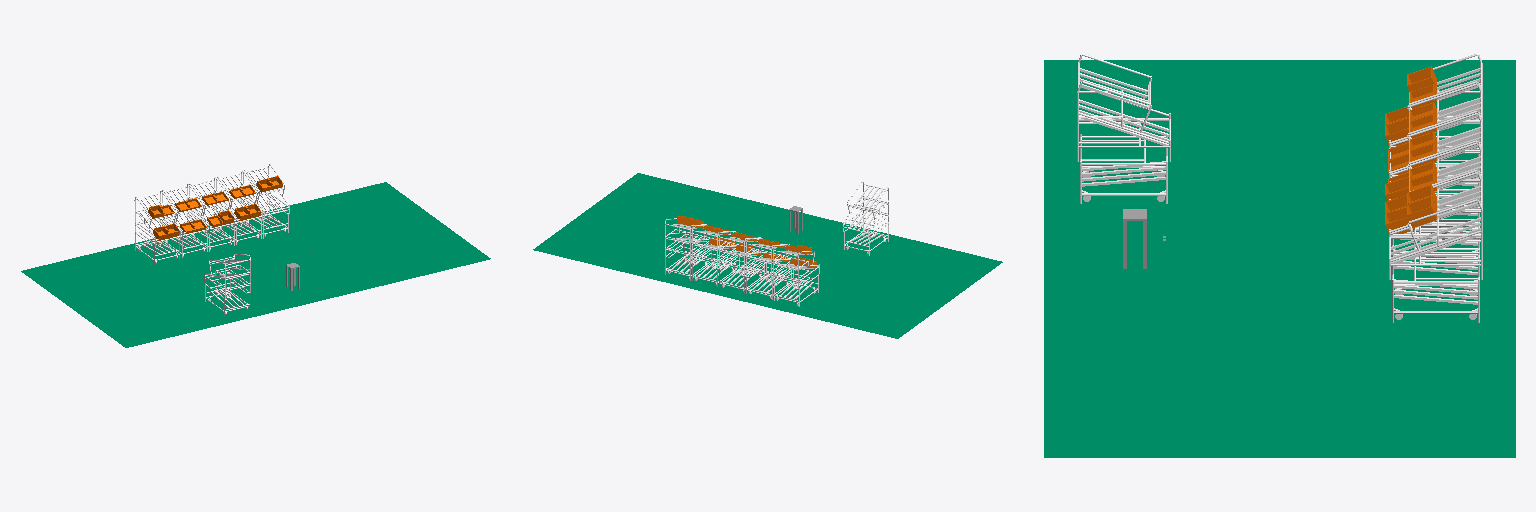
--- Render facts (derived) ---
3 views of the same robot in one strip: view 1: azimuth 30°, elevation 25°; view 2: azimuth 150°, elevation 25°; view 3: azimuth 270°, elevation 25° (orthographic).
Robot: showcase — 282 links, 281 joints (12 revolute, 269 fixed); root link world; default pose: all joints at 0.
Links seen in each view (by area): view 1: demo_floor_link, rack_t5, rack_t4, rack_t0; view 2: demo_floor_link, rack_t5, rack_t0; view 3: demo_floor_link, rack_t5, rack_t4, rack_b5, rack_b4, rack_t3, rack_t1, rack_t2, rack_t0, rack_b3.
Link boxes in pixels (x1,y1,x2,y2): demo_floor_link: (21, 182, 490, 347); rack_t5: (204, 254, 250, 297); rack_t4: (243, 164, 289, 219); rack_t0: (134, 190, 180, 246); demo_floor_link: (533, 173, 1002, 338); rack_t5: (843, 181, 888, 237); rack_t0: (773, 244, 819, 288); demo_floor_link: (1044, 60, 1515, 457); rack_t5: (1077, 54, 1170, 161); rack_t4: (1389, 172, 1482, 279); rack_b5: (1080, 134, 1167, 203); rack_b4: (1392, 252, 1479, 322); rack_t3: (1389, 142, 1482, 235); rack_t1: (1389, 83, 1482, 176); rack_t2: (1389, 113, 1482, 200); rack_t0: (1389, 54, 1482, 147); rack_b3: (1392, 222, 1479, 289).
Bounding box of the posed robot: 12 × 6 × 1.73 m (x, y, z).
12 mesh visuals loaded from 15 distinct referenced files (2 binary STL); not drawn: 17 (reference not matched to a file when rendering).

The robot description file, URDF, robot "showcase":
<?xml version="1.0" ?>
<!-- =================================================================================== -->
<!-- |    This document was autogenerated by xacro from [local-path]/catkin_ws/src/nedo3_demo/nedo3_description/urdf/nedo3_demo.urdf.xacro | -->
<!-- |    EDITING THIS FILE BY HAND IS NOT RECOMMENDED                                 | -->
<!-- =================================================================================== -->
<robot name="showcase">
    <!-- Root frame -->
    <link name="world" />
    <!-- Main workspace -->
    <link name="ground" />
    <joint name="world_ground_joint" type="fixed">
        <parent link="world" />
        <child link="ground" />
        <origin rpy="0 0 0" xyz="-4 0 0" />
    </joint>
    <joint name="demo_floor_joint" type="fixed">
        <parent link="world" />
        <child link="demo_floor_link" />
        <origin rpy="0 0 0" xyz="0 0 -0.001" />
    </joint>
    <link name="demo_floor_link">
        <visual>
            <origin rpy="0 0 0" xyz="0 0 0.0" />
            <geometry>
                <box size="12.0 6.0 0" />
            </geometry>
            <material name="demo_floor">
                <texture filename="package://nedo3_description/media/materials/textures/demo_floor.png" />
            </material>
        </visual>
        <collision>
            <origin rpy="0 0 0" xyz="0 0 0.0" />
            <geometry>
                <box size="12.0 6.0 0" />
            </geometry>
        </collision>
        <!-- <inertial> -->
        <!-- 	<mass value="1.0"/> -->
        <!-- 	<inertia ixx="1.0" ixy="0.0" ixz="0.0" iyy="1.0" iyz="0.0" izz="1.0"/> -->
        <!-- </inertial> -->
        <inertial>
            <mass value="0.1" />
            <origin xyz="0 0 0" rpy="0 0 0" />
            <inertia ixx="0.03" iyy="0.03" izz="0.03" ixy="0.0" ixz="0.0" iyz="0.0" />
        </inertial>
    </link>
    <!-- For Gazebo, material of AR marker is defined in -->
    <!--      aist_gazebo/media/material. You also need to export -->
    <!--      gazebo_media_path in package.xml. -->
    <!-- <gazebo reference="floor_link"> -->
    <!--   <material>Showcase/floor</material> -->
    <!-- </gazebo> -->
    <link name="rack_b0">
        <visual>
            <origin rpy="0 0 0" xyz="0 0.050 0" />
            <geometry>
                <mesh filename="package://nedo3_description/meshes/visual/rack_b.stl" scale="0.001 0.001 0.001" />
            </geometry>
            <material name="white">
                <color rgba="1 1 1 1" />
            </material>
        </visual>
        <collision>
            <origin rpy="0 0 0" xyz="0 0.050 0" />
            <geometry>
                <mesh filename="package://nedo3_description/meshes/collision/rack_b.stl" scale="0.001 0.001 0.001" />
            </geometry>
        </collision>
        <!-- Required for Gazebo -->
        <inertial>
            <mass value="20.0" />
            <inertia ixx="0.0" ixy="0.0" ixz="0.0" iyy="0.0" iyz="0.0" izz="0.0" />
            <origin xyz="0 0 0" rpy="0 0 0" />
        </inertial>
    </link>
    <joint name="rack_b0_joint" type="fixed">
        <parent link="ground" />
        <child link="rack_b0" />
        <origin rpy="0 0 0" xyz="1.5 1.435 0" />
    </joint>
    <link name="rack_b0_lower" />
    <joint name="rack_b0_lower_joint" type="fixed">
        <parent link="rack_b0" />
        <child link="rack_b0_lower" />
        <origin rpy="-0.08726646259971647 0 0" xyz="0.020 0.020 0.294" />
    </joint>
    <gazebo reference="rack_b0">
        <material>Gazebo/White</material>
        <selfCollide>True</selfCollide>
        <plugin name="gazebo_ros_control" filename="libgazebo_ros_control.so">
            <robotNamespace>/</robotNamespace>
        </plugin>
    </gazebo>
    <link name="rack_t0">
        <visual>
            <origin rpy="0 0 0" xyz="0 0 0" />
            <geometry>
                <mesh filename="package://nedo3_description/meshes/visual/rack_t.stl" scale="0.001 0.001 0.001" />
            </geometry>
            <material name="white">
                <color rgba="1 1 1 1" />
            </material>
        </visual>
        <collision>
            <origin rpy="0 0 0" xyz="0 0 0" />
            <geometry>
                <mesh filename="package://nedo3_description/meshes/collision/rack_t.stl" scale="0.001 0.001 0.001" />
            </geometry>
        </collision>
        <!-- Required for Gazebo -->
        <inertial>
            <mass value="20.0" />
            <inertia ixx="0.0" ixy="0.0" ixz="0.0" iyy="0.0" iyz="0.0" izz="0.0" />
            <origin xyz="0 0 0" rpy="0 0 0" />
        </inertial>
    </link>
    <joint name="rack_t0_joint" type="fixed">
        <parent link="rack_b0" />
        <child link="rack_t0" />
        <origin rpy="0 0 0" xyz="0 -0.05 0.595" />
    </joint>
    <link name="rack_t0_lower" />
    <joint name="rack_t0_lower_joint" type="fixed">
        <parent link="rack_t0" />
        <child link="rack_t0_lower" />
        <origin rpy="0.3490658503988659 0 0" xyz="0.020 0.020 0.150" />
    </joint>
    <link name="rack_t0_upper" />
    <joint name="rack_t0_upper_joint" type="fixed">
        <parent link="rack_t0" />
        <child link="rack_t0_upper" />
        <origin rpy="0.3490658503988659 0 0" xyz="0.020 0.300 0.700" />
    </joint>
    <gazebo reference="rack_t0">
        <material>Gazebo/White</material>
        <selfCollide>True</selfCollide>
    </gazebo>
    <link name="rack_b1">
        <visual>
            <origin rpy="0 0 0" xyz="0 0.050 0" />
            <geometry>
                <mesh filename="package://nedo3_description/meshes/visual/rack_b.stl" scale="0.001 0.001 0.001" />
            </geometry>
            <material name="white">
                <color rgba="1 1 1 1" />
            </material>
        </visual>
        <collision>
            <origin rpy="0 0 0" xyz="0 0.050 0" />
            <geometry>
                <mesh filename="package://nedo3_description/meshes/collision/rack_b.stl" scale="0.001 0.001 0.001" />
            </geometry>
        </collision>
        <!-- Required for Gazebo -->
        <inertial>
            <mass value="20.0" />
            <inertia ixx="0.0" ixy="0.0" ixz="0.0" iyy="0.0" iyz="0.0" izz="0.0" />
            <origin xyz="0 0 0" rpy="0 0 0" />
        </inertial>
    </link>
    <joint name="rack_b1_joint" type="fixed">
        <parent link="rack_b0" />
        <child link="rack_b1" />
        <origin rpy="0 0 0" xyz="0.89 0 0" />
    </joint>
    <link name="rack_b1_lower" />
    <joint name="rack_b1_lower_joint" type="fixed">
        <parent link="rack_b1" />
        <child link="rack_b1_lower" />
        <origin rpy="-0.08726646259971647 0 0" xyz="0.020 0.020 0.294" />
    </joint>
    <gazebo reference="rack_b1">
        <material>Gazebo/White</material>
        <selfCollide>True</selfCollide>
    </gazebo>
    <link name="rack_t1">
        <visual>
            <origin rpy="0 0 0" xyz="0 0 0" />
            <geometry>
                <mesh filename="package://nedo3_description/meshes/visual/rack_t.stl" scale="0.001 0.001 0.001" />
            </geometry>
            <material name="white">
                <color rgba="1 1 1 1" />
            </material>
        </visual>
        <collision>
            <origin rpy="0 0 0" xyz="0 0 0" />
            <geometry>
                <mesh filename="package://nedo3_description/meshes/collision/rack_t.stl" scale="0.001 0.001 0.001" />
            </geometry>
        </collision>
        <!-- Required for Gazebo -->
        <inertial>
            <mass value="20.0" />
            <inertia ixx="0.0" ixy="0.0" ixz="0.0" iyy="0.0" iyz="0.0" izz="0.0" />
            <origin xyz="0 0 0" rpy="0 0 0" />
        </inertial>
    </link>
    <joint name="rack_t1_joint" type="fixed">
        <parent link="rack_b1" />
        <child link="rack_t1" />
        <origin rpy="0 0 0" xyz="0 -0.05 0.595" />
    </joint>
    <link name="rack_t1_lower" />
    <joint name="rack_t1_lower_joint" type="fixed">
        <parent link="rack_t1" />
        <child link="rack_t1_lower" />
        <origin rpy="0.3490658503988659 0 0" xyz="0.020 0.020 0.150" />
    </joint>
    <link name="rack_t1_upper" />
    <joint name="rack_t1_upper_joint" type="fixed">
        <parent link="rack_t1" />
        <child link="rack_t1_upper" />
        <origin rpy="0.3490658503988659 0 0" xyz="0.020 0.300 0.700" />
    </joint>
    <gazebo reference="rack_t1">
        <material>Gazebo/White</material>
        <selfCollide>True</selfCollide>
    </gazebo>
    <link name="rack_b2">
        <visual>
            <origin rpy="0 0 0" xyz="0 0.050 0" />
            <geometry>
                <mesh filename="package://nedo3_description/meshes/visual/rack_b.stl" scale="0.001 0.001 0.001" />
            </geometry>
            <material name="white">
                <color rgba="1 1 1 1" />
            </material>
        </visual>
        <collision>
            <origin rpy="0 0 0" xyz="0 0.050 0" />
            <geometry>
                <mesh filename="package://nedo3_description/meshes/collision/rack_b.stl" scale="0.001 0.001 0.001" />
            </geometry>
        </collision>
        <!-- Required for Gazebo -->
        <inertial>
            <mass value="20.0" />
            <inertia ixx="0.0" ixy="0.0" ixz="0.0" iyy="0.0" iyz="0.0" izz="0.0" />
            <origin xyz="0 0 0" rpy="0 0 0" />
        </inertial>
    </link>
    <joint name="rack_b2_joint" type="fixed">
        <parent link="rack_b1" />
        <child link="rack_b2" />
        <origin rpy="0 0 0" xyz="0.89 0 0" />
    </joint>
    <link name="rack_b2_lower" />
    <joint name="rack_b2_lower_joint" type="fixed">
        <parent link="rack_b2" />
        <child link="rack_b2_lower" />
        <origin rpy="-0.08726646259971647 0 0" xyz="0.020 0.020 0.294" />
    </joint>
    <gazebo reference="rack_b2">
        <material>Gazebo/White</material>
        <selfCollide>True</selfCollide>
    </gazebo>
    <link name="rack_t2">
        <visual>
            <origin rpy="0 0 0" xyz="0 0 0" />
            <geometry>
                <mesh filename="package://nedo3_description/meshes/visual/rack_t.stl" scale="0.001 0.001 0.001" />
            </geometry>
            <material name="white">
                <color rgba="1 1 1 1" />
            </material>
        </visual>
        <collision>
            <origin rpy="0 0 0" xyz="0 0 0" />
            <geometry>
                <mesh filename="package://nedo3_description/meshes/collision/rack_t.stl" scale="0.001 0.001 0.001" />
            </geometry>
        </collision>
        <!-- Required for Gazebo -->
        <inertial>
            <mass value="20.0" />
            <inertia ixx="0.0" ixy="0.0" ixz="0.0" iyy="0.0" iyz="0.0" izz="0.0" />
            <origin xyz="0 0 0" rpy="0 0 0" />
        </inertial>
    </link>
    <joint name="rack_t2_joint" type="fixed">
        <parent link="rack_b2" />
        <child link="rack_t2" />
        <origin rpy="0 0 0" xyz="0 -0.05 0.595" />
    </joint>
    <link name="rack_t2_lower" />
    <joint name="rack_t2_lower_joint" type="fixed">
        <parent link="rack_t2" />
        <child link="rack_t2_lower" />
        <origin rpy="0.3490658503988659 0 0" xyz="0.020 0.020 0.150" />
    </joint>
    <link name="rack_t2_upper" />
    <joint name="rack_t2_upper_joint" type="fixed">
        <parent link="rack_t2" />
        <child link="rack_t2_upper" />
        <origin rpy="0.3490658503988659 0 0" xyz="0.020 0.300 0.700" />
    </joint>
    <gazebo reference="rack_t2">
        <material>Gazebo/White</material>
        <selfCollide>True</selfCollide>
    </gazebo>
    <link name="rack_b3">
        <visual>
            <origin rpy="0 0 0" xyz="0 0.050 0" />
            <geometry>
                <mesh filename="package://nedo3_description/meshes/visual/rack_b.stl" scale="0.001 0.001 0.001" />
            </geometry>
            <material name="white">
                <color rgba="1 1 1 1" />
            </material>
        </visual>
        <collision>
            <origin rpy="0 0 0" xyz="0 0.050 0" />
            <geometry>
                <mesh filename="package://nedo3_description/meshes/collision/rack_b.stl" scale="0.001 0.001 0.001" />
            </geometry>
        </collision>
        <!-- Required for Gazebo -->
        <inertial>
            <mass value="20.0" />
            <inertia ixx="0.0" ixy="0.0" ixz="0.0" iyy="0.0" iyz="0.0" izz="0.0" />
            <origin xyz="0 0 0" rpy="0 0 0" />
        </inertial>
    </link>
    <joint name="rack_b3_joint" type="fixed">
        <parent link="rack_b2" />
        <child link="rack_b3" />
        <origin rpy="0 0 0" xyz="0.89 0 0" />
    </joint>
    <link name="rack_b3_lower" />
    <joint name="rack_b3_lower_joint" type="fixed">
        <parent link="rack_b3" />
        <child link="rack_b3_lower" />
        <origin rpy="-0.08726646259971647 0 0" xyz="0.020 0.020 0.294" />
    </joint>
    <gazebo reference="rack_b3">
        <material>Gazebo/White</material>
        <selfCollide>True</selfCollide>
    </gazebo>
    <link name="rack_t3">
        <visual>
            <origin rpy="0 0 0" xyz="0 0 0" />
            <geometry>
                <mesh filename="package://nedo3_description/meshes/visual/rack_t.stl" scale="0.001 0.001 0.001" />
            </geometry>
            <material name="white">
                <color rgba="1 1 1 1" />
            </material>
        </visual>
        <collision>
            <origin rpy="0 0 0" xyz="0 0 0" />
            <geometry>
                <mesh filename="package://nedo3_description/meshes/collision/rack_t.stl" scale="0.001 0.001 0.001" />
            </geometry>
        </collision>
        <!-- Required for Gazebo -->
        <inertial>
            <mass value="20.0" />
            <inertia ixx="0.0" ixy="0.0" ixz="0.0" iyy="0.0" iyz="0.0" izz="0.0" />
            <origin xyz="0 0 0" rpy="0 0 0" />
        </inertial>
    </link>
    <joint name="rack_t3_joint" type="fixed">
        <parent link="rack_b3" />
        <child link="rack_t3" />
        <origin rpy="0 0 0" xyz="0 -0.05 0.595" />
    </joint>
    <link name="rack_t3_lower" />
    <joint name="rack_t3_lower_joint" type="fixed">
        <parent link="rack_t3" />
        <child link="rack_t3_lower" />
        <origin rpy="0.3490658503988659 0 0" xyz="0.020 0.020 0.150" />
    </joint>
    <link name="rack_t3_upper" />
    <joint name="rack_t3_upper_joint" type="fixed">
        <parent link="rack_t3" />
        <child link="rack_t3_upper" />
        <origin rpy="0.3490658503988659 0 0" xyz="0.020 0.300 0.700" />
    </joint>
    <gazebo reference="rack_t3">
        <material>Gazebo/White</material>
        <selfCollide>True</selfCollide>
    </gazebo>
    <link name="rack_b4">
        <visual>
            <origin rpy="0 0 0" xyz="0 0.050 0" />
            <geometry>
                <mesh filename="package://nedo3_description/meshes/visual/rack_b.stl" scale="0.001 0.001 0.001" />
            </geometry>
            <material name="white">
                <color rgba="1 1 1 1" />
            </material>
        </visual>
        <collision>
            <origin rpy="0 0 0" xyz="0 0.050 0" />
            <geometry>
                <mesh filename="package://nedo3_description/meshes/collision/rack_b.stl" scale="0.001 0.001 0.001" />
            </geometry>
        </collision>
        <!-- Required for Gazebo -->
        <inertial>
            <mass value="20.0" />
            <inertia ixx="0.0" ixy="0.0" ixz="0.0" iyy="0.0" iyz="0.0" izz="0.0" />
            <origin xyz="0 0 0" rpy="0 0 0" />
        </inertial>
    </link>
    <joint name="rack_b4_joint" type="fixed">
        <parent link="rack_b3" />
        <child link="rack_b4" />
        <origin rpy="0 0 0" xyz="0.89 0 0" />
    </joint>
    <link name="rack_b4_lower" />
    <joint name="rack_b4_lower_joint" type="fixed">
        <parent link="rack_b4" />
        <child link="rack_b4_lower" />
        <origin rpy="-0.08726646259971647 0 0" xyz="0.020 0.020 0.294" />
    </joint>
    <gazebo reference="rack_b4">
        <material>Gazebo/White</material>
        <selfCollide>True</selfCollide>
    </gazebo>
    <link name="rack_t4">
        <visual>
            <origin rpy="0 0 0" xyz="0 0 0" />
            <geometry>
                <mesh filename="package://nedo3_description/meshes/visual/rack_t.stl" scale="0.001 0.001 0.001" />
            </geometry>
            <material name="white">
                <color rgba="1 1 1 1" />
            </material>
        </visual>
        <collision>
            <origin rpy="0 0 0" xyz="0 0 0" />
            <geometry>
                <mesh filename="package://nedo3_description/meshes/collision/rack_t.stl" scale="0.001 0.001 0.001" />
            </geometry>
        </collision>
        <!-- Required for Gazebo -->
        <inertial>
            <mass value="20.0" />
            <inertia ixx="0.0" ixy="0.0" ixz="0.0" iyy="0.0" iyz="0.0" izz="0.0" />
            <origin xyz="0 0 0" rpy="0 0 0" />
        </inertial>
    </link>
    <joint name="rack_t4_joint" type="fixed">
        <parent link="rack_b4" />
        <child link="rack_t4" />
        <origin rpy="0 0 0" xyz="0 -0.05 0.595" />
    </joint>
    <link name="rack_t4_lower" />
    <joint name="rack_t4_lower_joint" type="fixed">
        <parent link="rack_t4" />
        <child link="rack_t4_lower" />
        <origin rpy="0.3490658503988659 0 0" xyz="0.020 0.020 0.150" />
    </joint>
    <link name="rack_t4_upper" />
    <joint name="rack_t4_upper_joint" type="fixed">
        <parent link="rack_t4" />
        <child link="rack_t4_upper" />
        <origin rpy="0.3490658503988659 0 0" xyz="0.020 0.300 0.700" />
    </joint>
    <gazebo reference="rack_t4">
        <material>Gazebo/White</material>
        <selfCollide>True</selfCollide>
    </gazebo>
    <link name="rack_b5">
        <visual>
            <origin rpy="0 0 0" xyz="0 0.050 0" />
            <geometry>
                <mesh filename="package://nedo3_description/meshes/visual/rack_b.stl" scale="0.001 0.001 0.001" />
            </geometry>
            <material name="white">
                <color rgba="1 1 1 1" />
            </material>
        </visual>
        <collision>
            <origin rpy="0 0 0" xyz="0 0.050 0" />
            <geometry>
                <mesh filename="package://nedo3_description/meshes/collision/rack_b.stl" scale="0.001 0.001 0.001" />
            </geometry>
        </collision>
        <!-- Required for Gazebo -->
        <inertial>
            <mass value="20.0" />
            <inertia ixx="0.0" ixy="0.0" ixz="0.0" iyy="0.0" iyz="0.0" izz="0.0" />
            <origin xyz="0 0 0" rpy="0 0 0" />
        </inertial>
    </link>
    <joint name="rack_b5_joint" type="fixed">
        <parent link="ground" />
        <child link="rack_b5" />
        <origin rpy="0 0 3.141592653589793" xyz="2.35 -1.435 0" />
    </joint>
    <link name="rack_b5_lower" />
    <joint name="rack_b5_lower_joint" type="fixed">
        <parent link="rack_b5" />
        <child link="rack_b5_lower" />
        <origin rpy="-0.08726646259971647 0 0" xyz="0.020 0.020 0.294" />
    </joint>
    <gazebo reference="rack_b5">
        <material>Gazebo/White</material>
        <selfCollide>True</selfCollide>
    </gazebo>
    <link name="rack_t5">
        <visual>
            <origin rpy="0 0 0" xyz="0 0 0" />
            <geometry>
                <mesh filename="package://nedo3_description/meshes/visual/rack_t.stl" scale="0.001 0.001 0.001" />
            </geometry>
            <material name="white">
                <color rgba="1 1 1 1" />
            </material>
        </visual>
        <collision>
            <origin rpy="0 0 0" xyz="0 0 0" />
            <geometry>
                <mesh filename="package://nedo3_description/meshes/collision/rack_t.stl" scale="0.001 0.001 0.001" />
            </geometry>
        </collision>
        <!-- Required for Gazebo -->
        <inertial>
            <mass value="20.0" />
            <inertia ixx="0.0" ixy="0.0" ixz="0.0" iyy="0.0" iyz="0.0" izz="0.0" />
            <origin xyz="0 0 0" rpy="0 0 0" />
        </inertial>
    </link>
    <joint name="rack_t5_joint" type="fixed">
        <parent link="rack_b5" />
        <child link="rack_t5" />
        <origin rpy="0 0 0" xyz="0 -0.05 0.595" />
    </joint>
    <link name="rack_t5_lower" />
    <joint name="rack_t5_lower_joint" type="fixed">
        <parent link="rack_t5" />
        <child link="rack_t5_lower" />
        <origin rpy="0.3490658503988659 0 0" xyz="0.020 0.020 0.150" />
    </joint>
    <link name="rack_t5_upper" />
    <joint name="rack_t5_upper_joint" type="fixed">
        <parent link="rack_t5" />
        <child link="rack_t5_upper" />
        <origin rpy="0.3490658503988659 0 0" xyz="0.020 0.300 0.700" />
    </joint>
    <gazebo reference="rack_t5">
        <material>Gazebo/White</material>
        <selfCollide>True</selfCollide>
    </gazebo>
    <link name="box_20">
        <!-- w is in x, l is in y, h is in z -->
        <visual>
            <origin rpy="0 0 0" xyz="0.1675 0.1675 0.0065" />
            <geometry>
                <box size="0.335 0.335 0.013" />
            </geometry>
            <material name="orange">
                <color rgba="1 0.5088 0.0468 1" />
            </material>
        </visual>
        <collision>
            <origin rpy="0 0 0" xyz="0.1675 0.1675 0.0065" />
            <geometry>
                <box size="0.335 0.335 0.013" />
            </geometry>
        </collision>
        <!-- This is required for Gazebo. -->
        <inertial>
            <mass value="1.0" />
            <origin rpy="0 0 0" xyz="0.1675 0.335 0.0065" />
            <inertia ixx="0.0" ixy="0.0" ixz="0.0" iyy="0.0" iyz="0.0" izz="0.0" />
        </inertial>
    </link>
    <gazebo reference="box_20">
        <material>Gazebo/Orange</material>
    </gazebo>
    <joint name="box_20" type="fixed">
        <parent link="rack_t4_upper" />
        <child link="box_20" />
        <axis xyz="0 0 1" />
        <origin rpy="0 0 0" xyz="0.08499999999999996 0 0" />
    </joint>
    <link name="box_20_frontside">
        <!-- w is in x, l is in y, h is in z -->
        <visual>
            <origin rpy="0 0 0" xyz="0.1675 0.0085 0.091" />
            <geometry>
                <box size="0.335 0.017 0.182" />
            </geometry>
            <material name="orange">
                <color rgba="1 0.5088 0.0468 1" />
            </material>
        </visual>
        <collision>
            <origin rpy="0 0 0" xyz="0.1675 0.0085 0.091" />
            <geometry>
                <box size="0.335 0.017 0.182" />
            </geometry>
        </collision>
        <!-- This is required for Gazebo. -->
        <inertial>
            <mass value="1.0" />
            <origin rpy="0 0 0" xyz="0.1675 0.017 0.091" />
            <inertia ixx="0.0" ixy="0.0" ixz="0.0" iyy="0.0" iyz="0.0" izz="0.0" />
        </inertial>
    </link>
    <gazebo reference="box_20_frontside">
        <material>Gazebo/Orange</material>
    </gazebo>
    <joint name="box_20_frontside" type="fixed">
        <parent link="box_20" />
        <child link="box_20_frontside" />
        <axis xyz="0 0 1" />
        <origin rpy="0 0 0" xyz="0 0 0.013" />
    </joint>
    <link name="box_20_backside">
        <!-- w is in x, l is in y, h is in z -->
        <visual>
            <origin rpy="0 0 0" xyz="0.1675 0.0085 0.091" />
            <geometry>
                <box size="0.335 0.017 0.182" />
            </geometry>
            <material name="orange">
                <color rgba="1 0.5088 0.0468 1" />
            </material>
        </visual>
        <collision>
            <origin rpy="0 0 0" xyz="0.1675 0.0085 0.091" />
            <geometry>
                <box size="0.335 0.017 0.182" />
            </geometry>
        </collision>
        <!-- This is required for Gazebo. -->
        <inertial>
            <mass value="1.0" />
            <origin rpy="0 0 0" xyz="0.1675 0.017 0.091" />
            <inertia ixx="0.0" ixy="0.0" ixz="0.0" iyy="0.0" iyz="0.0" izz="0.0" />
        </inertial>
    </link>
    <gazebo reference="box_20_backside">
        <material>Gazebo/Orange</material>
    </gazebo>
    <joint name="box_20_backside" type="fixed">
        <parent link="box_20" />
        <child link="box_20_backside" />
        <axis xyz="0 0 1" />
        <origin rpy="0 0 0" xyz="0 0.318 0.013" />
    </joint>
    <link name="box_20_leftside">
        <!-- w is in x, l is in y, h is in z -->
        <visual>
            <origin rpy="0 0 0" xyz="0.0085 0.15050000000000002 0.091" />
            <geometry>
                <box size="0.017 0.30100000000000005 0.182" />
            </geometry>
            <material name="orange">
                <color rgba="1 0.5088 0.0468 1" />
            </material>
        </visual>
        <collision>
            <origin rpy="0 0 0" xyz="0.0085 0.15050000000000002 0.091" />
            <geometry>
                <box size="0.017 0.30100000000000005 0.182" />
            </geometry>
        </collision>
        <!-- This is required for Gazebo. -->
        <inertial>
            <mass value="1.0" />
            <origin rpy="0 0 0" xyz="0.0085 0.30100000000000005 0.091" />
            <inertia ixx="0.0" ixy="0.0" ixz="0.0" iyy="0.0" iyz="0.0" izz="0.0" />
        </inertial>
    </link>
    <gazebo reference="box_20_leftside">
        <material>Gazebo/Orange</material>
    </gazebo>
    <joint name="box_20_leftside" type="fixed">
        <parent link="box_20" />
        <child link="box_20_leftside" />
        <axis xyz="0 0 1" />
        <origin rpy="0 0 0" xyz="0 0.017  0.013" />
    </joint>
    <link name="box_20_rightside">
        <!-- w is in x, l is in y, h is in z -->
        <visual>
            <origin rpy="0 0 0" xyz="0.0085 0.15050000000000002 0.091" />
            <geometry>
                <box size="0.017 0.30100000000000005 0.182" />
            </geometry>
            <material name="orange">
                <color rgba="1 0.5088 0.0468 1" />
            </material>
        </visual>
        <collision>
            <origin rpy="0 0 0" xyz="0.0085 0.15050000000000002 0.091" />
            <geometry>
                <box size="0.017 0.30100000000000005 0.182" />
            </geometry>
        </collision>
        <!-- This is required for Gazebo. -->
        <inertial>
            <mass value="1.0" />
            <origin rpy="0 0 0" xyz="0.0085 0.30100000000000005 0.091" />
            <inertia ixx="0.0" ixy="0.0" ixz="0.0" iyy="0.0" iyz="0.0" izz="0.0" />
        </inertial>
    </link>
    <gazebo reference="box_20_rightside">
        <material>Gazebo/Orange</material>
    </gazebo>
    <joint name="box_20_rightside" type="fixed">
        <parent link="box_20" />
        <child link="box_20_rightside" />
        <axis xyz="0 0 1" />
        <origin rpy="0 0 0" xyz="0.318      0.017      0.013" />
    </joint>
    <link name="box_20_bottom" />
    <joint name="box_20_bottom_joint" type="fixed">
        <parent link="box_20" />
        <child link="box_20_bottom" />
        <origin rpy="0 0 0" xyz="0.017 0.017 0.013" />
    </joint>
    <link name="box_20_center_bottom" />
    <joint name="box_20_center_bottom_joint" type="fixed">
        <parent link="box_20" />
        <child link="box_20_center_bottom" />
        <origin rpy="0 0 0" xyz="0.1675 0.1675 0.013" />
    </joint>
    <link name="box_20_lower_left_top" />
    <joint name="box_20_lower_left_top_joint" type="fixed">
        <parent link="box_20" />
        <child link="box_20_lower_left_top" />
        <origin rpy="0 0 0" xyz="0 0 0.195" />
    </joint>
    <link name="box_20_lower_right_top" />
    <joint name="box_20_lower_right_top_joint" type="fixed">
        <parent link="box_20" />
        <child link="box_20_lower_right_top" />
        <origin rpy="0 0 0" xyz="0.335 0 0.195" />
    </joint>
    <link name="box_20_upper_left_top" />
    <joint name="box_20_upper_left_top_joint" type="fixed">
        <parent link="box_20" />
        <child link="box_20_upper_left_top" />
        <origin rpy="0 0 0" xyz="0 0.335 0.195" />
    </joint>
    <link name="box_20_upper_right_top" />
    <joint name="box_20_upper_right_top_joint" type="fixed">
        <parent link="box_20" />
        <child link="box_20_upper_right_top" />
        <origin rpy="0 0 0" xyz="0.335 0.335 0.195" />
    </joint>
    <link name="box_20_center_top" />
    <joint name="box_20_center_top_joint" type="fixed">
        <parent link="box_20" />
        <child link="box_20_center_top" />
        <origin rpy="0 0 0" xyz="0.1675 0.1675 0.225" />
    </joint>
    <link name="box_21">
        <!-- w is in x, l is in y, h is in z -->
        <visual>
            <origin rpy="0 0 0" xyz="0.1675 0.1675 0.0065" />
            <geometry>
                <box size="0.335 0.335 0.013" />
            </geometry>
            <material name="orange">
                <color rgba="1 0.5088 0.0468 1" />
            </material>
        </visual>
        <collision>
            <origin rpy="0 0 0" xyz="0.1675 0.1675 0.0065" />
            <geometry>
                <box size="0.335 0.335 0.013" />
            </geometry>
        </collision>
        <!-- This is required for Gazebo. -->
        <inertial>
            <mass value="1.0" />
            <origin rpy="0 0 0" xyz="0.1675 0.335 0.0065" />
            <inertia ixx="0.0" ixy="0.0" ixz="0.0" iyy="0.0" iyz="0.0" izz="0.0" />
        </inertial>
    </link>
    <gazebo reference="box_21">
        <material>Gazebo/Orange</material>
    </gazebo>
    <joint name="box_21" type="fixed">
        <parent link="rack_t4_upper" />
        <child link="box_21" />
        <axis xyz="0 0 1" />
        <origin rpy="0 0 0" xyz="0.43 0 0" />
    </joint>
    <link name="box_21_frontside">
        <!-- w is in x, l is in y, h is in z -->
        <visual>
            <origin rpy="0 0 0" xyz="0.1675 0.0085 0.091" />
            <geometry>
                <box size="0.335 0.017 0.182" />
            </geometry>
            <material name="orange">
                <color rgba="1 0.5088 0.0468 1" />
            </material>
        </visual>
        <collision>
            <origin rpy="0 0 0" xyz="0.1675 0.0085 0.091" />
            <geometry>
                <box size="0.335 0.017 0.182" />
            </geometry>
        </collision>
        <!-- This is required for Gazebo. -->
        <inertial>
            <mass value="1.0" />
            <origin rpy="0 0 0" xyz="0.1675 0.017 0.091" />
            <inertia ixx="0.0" ixy="0.0" ixz="0.0" iyy="0.0" iyz="0.0" izz="0.0" />
        </inertial>
    </link>
    <gazebo reference="box_21_frontside">
        <material>Gazebo/Orange</material>
    </gazebo>
    <joint name="box_21_frontside" type="fixed">
        <parent link="box_21" />
        <child link="box_21_frontside" />
        <axis xyz="0 0 1" />
        <origin rpy="0 0 0" xyz="0 0 0.013" />
    </joint>
    <link name="box_21_backside">
        <!-- w is in x, l is in y, h is in z -->
        <visual>
            <origin rpy="0 0 0" xyz="0.1675 0.0085 0.091" />
            <geometry>
                <box size="0.335 0.017 0.182" />
            </geometry>
            <material name="orange">
                <color rgba="1 0.5088 0.0468 1" />
            </material>
        </visual>
        <collision>
            <origin rpy="0 0 0" xyz="0.1675 0.0085 0.091" />
            <geometry>
                <box size="0.335 0.017 0.182" />
            </geometry>
        </collision>
        <!-- This is required for Gazebo. -->
        <inertial>
            <mass value="1.0" />
            <origin rpy="0 0 0" xyz="0.1675 0.017 0.091" />
            <inertia ixx="0.0" ixy="0.0" ixz="0.0" iyy="0.0" iyz="0.0" izz="0.0" />
        </inertial>
    </link>
    <gazebo reference="box_21_backside">
        <material>Gazebo/Orange</material>
    </gazebo>
    <joint name="box_21_backside" type="fixed">
        <parent link="box_21" />
        <child link="box_21_backside" />
        <axis xyz="0 0 1" />
        <origin rpy="0 0 0" xyz="0 0.318 0.013" />
    </joint>
    <link name="box_21_leftside">
        <!-- w is in x, l is in y, h is in z -->
        <visual>
            <origin rpy="0 0 0" xyz="0.0085 0.15050000000000002 0.091" />
            <geometry>
                <box size="0.017 0.30100000000000005 0.182" />
            </geometry>
            <material name="orange">
                <color rgba="1 0.5088 0.0468 1" />
            </material>
        </visual>
        <collision>
            <origin rpy="0 0 0" xyz="0.0085 0.15050000000000002 0.091" />
            <geometry>
                <box size="0.017 0.30100000000000005 0.182" />
            </geometry>
        </collision>
        <!-- This is required for Gazebo. -->
        <inertial>
            <mass value="1.0" />
            <origin rpy="0 0 0" xyz="0.0085 0.30100000000000005 0.091" />
            <inertia ixx="0.0" ixy="0.0" ixz="0.0" iyy="0.0" iyz="0.0" izz="0.0" />
        </inertial>
    </link>
    <gazebo reference="box_21_leftside">
        <material>Gazebo/Orange</material>
    </gazebo>
    <joint name="box_21_leftside" type="fixed">
        <parent link="box_21" />
        <child link="box_21_leftside" />
        <axis xyz="0 0 1" />
        <origin rpy="0 0 0" xyz="0 0.017  0.013" />
    </joint>
    <link name="box_21_rightside">
        <!-- w is in x, l is in y, h is in z -->
        <visual>
            <origin rpy="0 0 0" xyz="0.0085 0.15050000000000002 0.091" />
            <geometry>
                <box size="0.017 0.30100000000000005 0.182" />
            </geometry>
            <material name="orange">
                <color rgba="1 0.5088 0.0468 1" />
            </material>
        </visual>
        <collision>
            <origin rpy="0 0 0" xyz="0.0085 0.15050000000000002 0.091" />
            <geometry>
                <box size="0.017 0.30100000000000005 0.182" />
            </geometry>
        </collision>
        <!-- This is required for Gazebo. -->
        <inertial>
            <mass value="1.0" />
            <origin rpy="0 0 0" xyz="0.0085 0.30100000000000005 0.091" />
            <inertia ixx="0.0" ixy="0.0" ixz="0.0" iyy="0.0" iyz="0.0" izz="0.0" />
        </inertial>
    </link>
    <gazebo reference="box_21_rightside">
        <material>Gazebo/Orange</material>
    </gazebo>
    <joint name="box_21_rightside" type="fixed">
        <parent link="box_21" />
        <child link="box_21_rightside" />
        <axis xyz="0 0 1" />
        <origin rpy="0 0 0" xyz="0.318      0.017      0.013" />
    </joint>
    <link name="box_21_bottom" />
    <joint name="box_21_bottom_joint" type="fixed">
        <parent link="box_21" />
        <child link="box_21_bottom" />
        <origin rpy="0 0 0" xyz="0.017 0.017 0.013" />
    </joint>
    <link name="box_21_center_bottom" />
    <joint name="box_21_center_bottom_joint" type="fixed">
        <parent link="box_21" />
        <child link="box_21_center_bottom" />
        <origin rpy="0 0 0" xyz="0.1675 0.1675 0.013" />
    </joint>
    <link name="box_21_lower_left_top" />
    <joint name="box_21_lower_left_top_joint" type="fixed">
        <parent link="box_21" />
        <child link="box_21_lower_left_top" />
        <origin rpy="0 0 0" xyz="0 0 0.195" />
    </joint>
    <link name="box_21_lower_right_top" />
    <joint name="box_21_lower_right_top_joint" type="fixed">
        <parent link="box_21" />
        <child link="box_21_lower_right_top" />
        <origin rpy="0 0 0" xyz="0.335 0 0.195" />
    </joint>
    <link name="box_21_upper_left_top" />
    <joint name="box_21_upper_left_top_joint" type="fixed">
        <parent link="box_21" />
        <child link="box_21_upper_left_top" />
        <origin rpy="0 0 0" xyz="0 0.335 0.195" />
    </joint>
    <link name="box_21_upper_right_top" />
    <joint name="box_21_upper_right_top_joint" type="fixed">
        <parent link="box_21" />
        <child link="box_21_upper_right_top" />
        <origin rpy="0 0 0" xyz="0.335 0.335 0.195" />
    </joint>
    <link name="box_21_center_top" />
    <joint name="box_21_center_top_joint" type="fixed">
        <parent link="box_21" />
        <child link="box_21_center_top" />
        <origin rpy="0 0 0" xyz="0.1675 0.1675 0.225" />
    </joint>
    <link name="box_18">
        <!-- w is in x, l is in y, h is in z -->
        <visual>
            <origin rpy="0 0 0" xyz="0.1675 0.1675 0.0065" />
            <geometry>
                <box size="0.335 0.335 0.013" />
            </geometry>
            <material name="orange">
                <color rgba="1 0.5088 0.0468 1" />
            </material>
        </visual>
        <collision>
            <origin rpy="0 0 0" xyz="0.1675 0.1675 0.0065" />
            <geometry>
                <box size="0.335 0.335 0.013" />
            </geometry>
        </collision>
        <!-- This is required for Gazebo. -->
        <inertial>
            <mass value="1.0" />
            <origin rpy="0 0 0" xyz="0.1675 0.335 0.0065" />
            <inertia ixx="0.0" ixy="0.0" ixz="0.0" iyy="0.0" iyz="0.0" izz="0.0" />
        </inertial>
    </link>
    <gazebo reference="box_18">
        <material>Gazebo/Orange</material>
    </gazebo>
    <joint name="box_18" type="fixed">
        <parent link="rack_t3_upper" />
        <child link="box_18" />
        <axis xyz="0 0 1" />
        <origin rpy="0 0 0" xyz="0.08499999999999996 0 0" />
    </joint>
    <link name="box_18_frontside">
        <!-- w is in x, l is in y, h is in z -->
        <visual>
            <origin rpy="0 0 0" xyz="0.1675 0.0085 0.045" />
            <geometry>
                <box size="0.335 0.017 0.09" />
            </geometry>
            <material name="orange">
                <color rgba="1 0.5088 0.0468 1" />
            </material>
        </visual>
        <collision>
            <origin rpy="0 0 0" xyz="0.1675 0.0085 0.045" />
            <geometry>
                <box size="0.335 0.017 0.09" />
            </geometry>
        </collision>
        <!-- This is required for Gazebo. -->
        <inertial>
            <mass value="1.0" />
            <origin rpy="0 0 0" xyz="0.1675 0.017 0.045" />
            <inertia ixx="0.0" ixy="0.0" ixz="0.0" iyy="0.0" iyz="0.0" izz="0.0" />
        </inertial>
    </link>
    <gazebo reference="box_18_frontside">
        <material>Gazebo/Orange</material>
    </gazebo>
    <joint name="box_18_frontside" type="fixed">
        <parent link="box_18" />
        <child link="box_18_frontside" />
        <axis xyz="0 0 1" />
        <origin rpy="0 0 0" xyz="0 0 0.013" />
    </joint>
    <link name="box_18_backside">
        <!-- w is in x, l is in y, h is in z -->
        <visual>
            <origin rpy="0 0 0" xyz="0.1675 0.0085 0.045" />
            <geometry>
                <box size="0.335 0.017 0.09" />
            </geometry>
            <material name="orange">
                <color rgba="1 0.5088 0.0468 1" />
            </material>
        </visual>
        <collision>
            <origin rpy="0 0 0" xyz="0.1675 0.0085 0.045" />
            <geometry>
                <box size="0.335 0.017 0.09" />
            </geometry>
        </collision>
        <!-- This is required for Gazebo. -->
        <inertial>
            <mass value="1.0" />
            <origin rpy="0 0 0" xyz="0.1675 0.017 0.045" />
            <inertia ixx="0.0" ixy="0.0" ixz="0.0" iyy="0.0" iyz="0.0" izz="0.0" />
        </inertial>
    </link>
    <gazebo reference="box_18_backside">
        <material>Gazebo/Orange</material>
    </gazebo>
    <joint name="box_18_backside" type="fixed">
        <parent link="box_18" />
        <child link="box_18_backside" />
        <axis xyz="0 0 1" />
        <origin rpy="0 0 0" xyz="0 0.318 0.013" />
    </joint>
    <link name="box_18_leftside">
        <!-- w is in x, l is in y, h is in z -->
        <visual>
            <origin rpy="0 0 0" xyz="0.0085 0.15050000000000002 0.045" />
            <geometry>
                <box size="0.017 0.30100000000000005 0.09" />
            </geometry>
            <material name="orange">
                <color rgba="1 0.5088 0.0468 1" />
            </material>
        </visual>
        <collision>
            <origin rpy="0 0 0" xyz="0.0085 0.15050000000000002 0.045" />
            <geometry>
                <box size="0.017 0.30100000000000005 0.09" />
            </geometry>
        </collision>
        <!-- This is required for Gazebo. -->
        <inertial>
            <mass value="1.0" />
            <origin rpy="0 0 0" xyz="0.0085 0.30100000000000005 0.045" />
            <inertia ixx="0.0" ixy="0.0" ixz="0.0" iyy="0.0" iyz="0.0" izz="0.0" />
        </inertial>
    </link>
    <gazebo reference="box_18_leftside">
        <material>Gazebo/Orange</material>
    </gazebo>
    <joint name="box_18_leftside" type="fixed">
        <parent link="box_18" />
        <child link="box_18_leftside" />
        <axis xyz="0 0 1" />
        <origin rpy="0 0 0" xyz="0 0.017  0.013" />
    </joint>
    <link name="box_18_rightside">
        <!-- w is in x, l is in y, h is in z -->
        <visual>
            <origin rpy="0 0 0" xyz="0.0085 0.15050000000000002 0.045" />
            <geometry>
                <box size="0.017 0.30100000000000005 0.09" />
            </geometry>
            <material name="orange">
                <color rgba="1 0.5088 0.0468 1" />
            </material>
        </visual>
        <collision>
            <origin rpy="0 0 0" xyz="0.0085 0.15050000000000002 0.045" />
            <geometry>
                <box size="0.017 0.30100000000000005 0.09" />
            </geometry>
        </collision>
        <!-- This is required for Gazebo. -->
        <inertial>
            <mass value="1.0" />
            <origin rpy="0 0 0" xyz="0.0085 0.30100000000000005 0.045" />
            <inertia ixx="0.0" ixy="0.0" ixz="0.0" iyy="0.0" iyz="0.0" izz="0.0" />
        </inertial>
    </link>
    <gazebo reference="box_18_rightside">
        <material>Gazebo/Orange</material>
    </gazebo>
    <joint name="box_18_rightside" type="fixed">
        <parent link="box_18" />
        <child link="box_18_rightside" />
        <axis xyz="0 0 1" />
        <origin rpy="0 0 0" xyz="0.318      0.017      0.013" />
    </joint>
    <link name="box_18_bottom" />
    <joint name="box_18_bottom_joint" type="fixed">
        <parent link="box_18" />
        <child link="box_18_bottom" />
        <origin rpy="0 0 0" xyz="0.017 0.017 0.013" />
    </joint>
    <link name="box_18_center_bottom" />
    <joint name="box_18_center_bottom_joint" type="fixed">
        <parent link="box_18" />
        <child link="box_18_center_bottom" />
        <origin rpy="0 0 0" xyz="0.1675 0.1675 0.013" />
    </joint>
    <link name="box_18_lower_left_top" />
    <joint name="box_18_lower_left_top_joint" type="fixed">
        <parent link="box_18" />
        <child link="box_18_lower_left_top" />
        <origin rpy="0 0 0" xyz="0 0 0.103" />
    </joint>
    <link name="box_18_lower_right_top" />
    <joint name="box_18_lower_right_top_joint" type="fixed">
        <parent link="box_18" />
        <child link="box_18_lower_right_top" />
        <origin rpy="0 0 0" xyz="0.335 0 0.103" />
    </joint>
    <link name="box_18_upper_left_top" />
    <joint name="box_18_upper_left_top_joint" type="fixed">
        <parent link="box_18" />
        <child link="box_18_upper_left_top" />
        <origin rpy="0 0 0" xyz="0 0.335 0.103" />
    </joint>
    <link name="box_18_upper_right_top" />
    <joint name="box_18_upper_right_top_joint" type="fixed">
        <parent link="box_18" />
        <child link="box_18_upper_right_top" />
        <origin rpy="0 0 0" xyz="0.335 0.335 0.103" />
    </joint>
    <link name="box_18_center_top" />
    <joint name="box_18_center_top_joint" type="fixed">
        <parent link="box_18" />
        <child link="box_18_center_top" />
        <origin rpy="0 0 0" xyz="0.1675 0.1675 0.133" />
    </joint>
    <link name="box_19">
        <!-- w is in x, l is in y, h is in z -->
        <visual>
            <origin rpy="0 0 0" xyz="0.1675 0.1675 0.0065" />
            <geometry>
                <box size="0.335 0.335 0.013" />
            </geometry>
            <material name="orange">
                <color rgba="1 0.5088 0.0468 1" />
            </material>
        </visual>
        <collision>
            <origin rpy="0 0 0" xyz="0.1675 0.1675 0.0065" />
            <geometry>
                <box size="0.335 0.335 0.013" />
            </geometry>
        </collision>
        <!-- This is required for Gazebo. -->
        <inertial>
            <mass value="1.0" />
            <origin rpy="0 0 0" xyz="0.1675 0.335 0.0065" />
            <inertia ixx="0.0" ixy="0.0" ixz="0.0" iyy="0.0" iyz="0.0" izz="0.0" />
        </inertial>
    </link>
    <gazebo reference="box_19">
        <material>Gazebo/Orange</material>
    </gazebo>
    <joint name="box_19" type="fixed">
        <parent link="rack_t3_upper" />
        <child link="box_19" />
        <axis xyz="0 0 1" />
        <origin rpy="0 0 0" xyz="0.43 0 0" />
    </joint>
    <link name="box_19_frontside">
        <!-- w is in x, l is in y, h is in z -->
        <visual>
            <origin rpy="0 0 0" xyz="0.1675 0.0085 0.045" />
            <geometry>
                <box size="0.335 0.017 0.09" />
            </geometry>
            <material name="orange">
                <color rgba="1 0.5088 0.0468 1" />
            </material>
        </visual>
        <collision>
            <origin rpy="0 0 0" xyz="0.1675 0.0085 0.045" />
            <geometry>
                <box size="0.335 0.017 0.09" />
            </geometry>
        </collision>
        <!-- This is required for Gazebo. -->
        <inertial>
            <mass value="1.0" />
            <origin rpy="0 0 0" xyz="0.1675 0.017 0.045" />
            <inertia ixx="0.0" ixy="0.0" ixz="0.0" iyy="0.0" iyz="0.0" izz="0.0" />
        </inertial>
    </link>
    <gazebo reference="box_19_frontside">
        <material>Gazebo/Orange</material>
    </gazebo>
    <joint name="box_19_frontside" type="fixed">
        <parent link="box_19" />
        <child link="box_19_frontside" />
        <axis xyz="0 0 1" />
        <origin rpy="0 0 0" xyz="0 0 0.013" />
    </joint>
    <link name="box_19_backside">
        <!-- w is in x, l is in y, h is in z -->
        <visual>
            <origin rpy="0 0 0" xyz="0.1675 0.0085 0.045" />
            <geometry>
                <box size="0.335 0.017 0.09" />
            </geometry>
            <material name="orange">
                <color rgba="1 0.5088 0.0468 1" />
            </material>
        </visual>
        <collision>
            <origin rpy="0 0 0" xyz="0.1675 0.0085 0.045" />
            <geometry>
                <box size="0.335 0.017 0.09" />
            </geometry>
        </collision>
        <!-- This is required for Gazebo. -->
        <inertial>
            <mass value="1.0" />
            <origin rpy="0 0 0" xyz="0.1675 0.017 0.045" />
            <inertia ixx="0.0" ixy="0.0" ixz="0.0" iyy="0.0" iyz="0.0" izz="0.0" />
        </inertial>
    </link>
    <gazebo reference="box_19_backside">
        <material>Gazebo/Orange</material>
    </gazebo>
    <joint name="box_19_backside" type="fixed">
        <parent link="box_19" />
        <child link="box_19_backside" />
        <axis xyz="0 0 1" />
        <origin rpy="0 0 0" xyz="0 0.318 0.013" />
    </joint>
    <link name="box_19_leftside">
        <!-- w is in x, l is in y, h is in z -->
        <visual>
            <origin rpy="0 0 0" xyz="0.0085 0.15050000000000002 0.045" />
            <geometry>
                <box size="0.017 0.30100000000000005 0.09" />
            </geometry>
            <material name="orange">
                <color rgba="1 0.5088 0.0468 1" />
            </material>
        </visual>
        <collision>
            <origin rpy="0 0 0" xyz="0.0085 0.15050000000000002 0.045" />
            <geometry>
                <box size="0.017 0.30100000000000005 0.09" />
            </geometry>
        </collision>
        <!-- This is required for Gazebo. -->
        <inertial>
            <mass value="1.0" />
            <origin rpy="0 0 0" xyz="0.0085 0.30100000000000005 0.045" />
            <inertia ixx="0.0" ixy="0.0" ixz="0.0" iyy="0.0" iyz="0.0" izz="0.0" />
        </inertial>
    </link>
    <gazebo reference="box_19_leftside">
        <material>Gazebo/Orange</material>
    </gazebo>
    <joint name="box_19_leftside" type="fixed">
        <parent link="box_19" />
        <child link="box_19_leftside" />
        <axis xyz="0 0 1" />
        <origin rpy="0 0 0" xyz="0 0.017  0.013" />
    </joint>
    <link name="box_19_rightside">
        <!-- w is in x, l is in y, h is in z -->
        <visual>
            <origin rpy="0 0 0" xyz="0.0085 0.15050000000000002 0.045" />
            <geometry>
                <box size="0.017 0.30100000000000005 0.09" />
            </geometry>
            <material name="orange">
                <color rgba="1 0.5088 0.0468 1" />
            </material>
        </visual>
        <collision>
            <origin rpy="0 0 0" xyz="0.0085 0.15050000000000002 0.045" />
            <geometry>
                <box size="0.017 0.30100000000000005 0.09" />
            </geometry>
        </collision>
        <!-- This is required for Gazebo. -->
        <inertial>
            <mass value="1.0" />
            <origin rpy="0 0 0" xyz="0.0085 0.30100000000000005 0.045" />
            <inertia ixx="0.0" ixy="0.0" ixz="0.0" iyy="0.0" iyz="0.0" izz="0.0" />
        </inertial>
    </link>
    <gazebo reference="box_19_rightside">
        <material>Gazebo/Orange</material>
    </gazebo>
    <joint name="box_19_rightside" type="fixed">
        <parent link="box_19" />
        <child link="box_19_rightside" />
        <axis xyz="0 0 1" />
        <origin rpy="0 0 0" xyz="0.318      0.017      0.013" />
    </joint>
    <link name="box_19_bottom" />
    <joint name="box_19_bottom_joint" type="fixed">
        <parent link="box_19" />
        <child link="box_19_bottom" />
        <origin rpy="0 0 0" xyz="0.017 0.017 0.013" />
    </joint>
    <link name="box_19_center_bottom" />
    <joint name="box_19_center_bottom_joint" type="fixed">
        <parent link="box_19" />
        <child link="box_19_center_bottom" />
        <origin rpy="0 0 0" xyz="0.1675 0.1675 0.013" />
    </joint>
    <link name="box_19_lower_left_top" />
    <joint name="box_19_lower_left_top_joint" type="fixed">
        <parent link="box_19" />
        <child link="box_19_lower_left_top" />
        <origin rpy="0 0 0" xyz="0 0 0.103" />
    </joint>
    <link name="box_19_lower_right_top" />
    <joint name="box_19_lower_right_top_joint" type="fixed">
        <parent link="box_19" />
        <child link="box_19_lower_right_top" />
        <origin rpy="0 0 0" xyz="0.335 0 0.103" />
    </joint>
    <link name="box_19_upper_left_top" />
    <joint name="box_19_upper_left_top_joint" type="fixed">
        <parent link="box_19" />
        <child link="box_19_upper_left_top" />
        <origin rpy="0 0 0" xyz="0 0.335 0.103" />
    </joint>
    <link name="box_19_upper_right_top" />
    <joint name="box_19_upper_right_top_joint" type="fixed">
        <parent link="box_19" />
        <child link="box_19_upper_right_top" />
        <origin rpy="0 0 0" xyz="0.335 0.335 0.103" />
    </joint>
    <link name="box_19_center_top" />
    <joint name="box_19_center_top_joint" type="fixed">
        <parent link="box_19" />
        <child link="box_19_center_top" />
        <origin rpy="0 0 0" xyz="0.1675 0.1675 0.133" />
    </joint>
    <link name="box_23">
        <!-- w is in x, l is in y, h is in z -->
        <visual>
            <origin rpy="0 0 0" xyz="0.1675 0.1675 0.0065" />
            <geometry>
                <box size="0.335 0.335 0.013" />
            </geometry>
            <material name="orange">
                <color rgba="1 0.5088 0.0468 1" />
            </material>
        </visual>
        <collision>
            <origin rpy="0 0 0" xyz="0.1675 0.1675 0.0065" />
            <geometry>
                <box size="0.335 0.335 0.013" />
            </geometry>
        </collision>
        <!-- This is required for Gazebo. -->
        <inertial>
            <mass value="1.0" />
            <origin rpy="0 0 0" xyz="0.1675 0.335 0.0065" />
            <inertia ixx="0.0" ixy="0.0" ixz="0.0" iyy="0.0" iyz="0.0" izz="0.0" />
        </inertial>
    </link>
    <gazebo reference="box_23">
        <material>Gazebo/Orange</material>
    </gazebo>
    <joint name="box_23" type="fixed">
        <parent link="rack_t3_lower" />
        <child link="box_23" />
        <axis xyz="0 0 1" />
        <origin rpy="0 0 0" xyz="0.08499999999999996 0 0" />
    </joint>
    <link name="box_23_frontside">
        <!-- w is in x, l is in y, h is in z -->
        <visual>
            <origin rpy="0 0 0" xyz="0.1675 0.0085 0.091" />
            <geometry>
                <box size="0.335 0.017 0.182" />
            </geometry>
            <material name="orange">
                <color rgba="1 0.5088 0.0468 1" />
            </material>
        </visual>
        <collision>
            <origin rpy="0 0 0" xyz="0.1675 0.0085 0.091" />
            <geometry>
                <box size="0.335 0.017 0.182" />
            </geometry>
        </collision>
        <!-- This is required for Gazebo. -->
        <inertial>
            <mass value="1.0" />
            <origin rpy="0 0 0" xyz="0.1675 0.017 0.091" />
            <inertia ixx="0.0" ixy="0.0" ixz="0.0" iyy="0.0" iyz="0.0" izz="0.0" />
        </inertial>
    </link>
    <gazebo reference="box_23_frontside">
        <material>Gazebo/Orange</material>
    </gazebo>
    <joint name="box_23_frontside" type="fixed">
        <parent link="box_23" />
        <child link="box_23_frontside" />
        <axis xyz="0 0 1" />
        <origin rpy="0 0 0" xyz="0 0 0.013" />
    </joint>
    <link name="box_23_backside">
        <!-- w is in x, l is in y, h is in z -->
        <visual>
            <origin rpy="0 0 0" xyz="0.1675 0.0085 0.091" />
            <geometry>
                <box size="0.335 0.017 0.182" />
            </geometry>
            <material name="orange">
                <color rgba="1 0.5088 0.0468 1" />
            </material>
        </visual>
        <collision>
            <origin rpy="0 0 0" xyz="0.1675 0.0085 0.091" />
            <geometry>
                <box size="0.335 0.017 0.182" />
            </geometry>
        </collision>
        <!-- This is required for Gazebo. -->
        <inertial>
            <mass value="1.0" />
            <origin rpy="0 0 0" xyz="0.1675 0.017 0.091" />
            <inertia ixx="0.0" ixy="0.0" ixz="0.0" iyy="0.0" iyz="0.0" izz="0.0" />
        </inertial>
    </link>
    <gazebo reference="box_23_backside">
        <material>Gazebo/Orange</material>
    </gazebo>
    <joint name="box_23_backside" type="fixed">
        <parent link="box_23" />
        <child link="box_23_backside" />
        <axis xyz="0 0 1" />
        <origin rpy="0 0 0" xyz="0 0.318 0.013" />
    </joint>
    <link name="box_23_leftside">
        <!-- w is in x, l is in y, h is in z -->
        <visual>
            <origin rpy="0 0 0" xyz="0.0085 0.15050000000000002 0.091" />
            <geometry>
                <box size="0.017 0.30100000000000005 0.182" />
            </geometry>
            <material name="orange">
                <color rgba="1 0.5088 0.0468 1" />
            </material>
        </visual>
        <collision>
            <origin rpy="0 0 0" xyz="0.0085 0.15050000000000002 0.091" />
            <geometry>
                <box size="0.017 0.30100000000000005 0.182" />
            </geometry>
        </collision>
        <!-- This is required for Gazebo. -->
        <inertial>
            <mass value="1.0" />
            <origin rpy="0 0 0" xyz="0.0085 0.30100000000000005 0.091" />
            <inertia ixx="0.0" ixy="0.0" ixz="0.0" iyy="0.0" iyz="0.0" izz="0.0" />
        </inertial>
    </link>
    <gazebo reference="box_23_leftside">
        <material>Gazebo/Orange</material>
    </gazebo>
    <joint name="box_23_leftside" type="fixed">
        <parent link="box_23" />
        <child link="box_23_leftside" />
        <axis xyz="0 0 1" />
        <origin rpy="0 0 0" xyz="0 0.017  0.013" />
    </joint>
    <link name="box_23_rightside">
        <!-- w is in x, l is in y, h is in z -->
        <visual>
            <origin rpy="0 0 0" xyz="0.0085 0.15050000000000002 0.091" />
            <geometry>
                <box size="0.017 0.30100000000000005 0.182" />
            </geometry>
            <material name="orange">
                <color rgba="1 0.5088 0.0468 1" />
            </material>
        </visual>
        <collision>
            <origin rpy="0 0 0" xyz="0.0085 0.15050000000000002 0.091" />
            <geometry>
                <box size="0.017 0.30100000000000005 0.182" />
            </geometry>
        </collision>
        <!-- This is required for Gazebo. -->
        <inertial>
            <mass value="1.0" />
            <origin rpy="0 0 0" xyz="0.0085 0.30100000000000005 0.091" />
            <inertia ixx="0.0" ixy="0.0" ixz="0.0" iyy="0.0" iyz="0.0" izz="0.0" />
        </inertial>
    </link>
    <gazebo reference="box_23_rightside">
        <material>Gazebo/Orange</material>
    </gazebo>
    <joint name="box_23_rightside" type="fixed">
        <parent link="box_23" />
        <child link="box_23_rightside" />
        <axis xyz="0 0 1" />
        <origin rpy="0 0 0" xyz="0.318      0.017      0.013" />
    </joint>
    <link name="box_23_bottom" />
    <joint name="box_23_bottom_joint" type="fixed">
        <parent link="box_23" />
        <child link="box_23_bottom" />
        <origin rpy="0 0 0" xyz="0.017 0.017 0.013" />
    </joint>
    <link name="box_23_center_bottom" />
    <joint name="box_23_center_bottom_joint" type="fixed">
        <parent link="box_23" />
        <child link="box_23_center_bottom" />
        <origin rpy="0 0 0" xyz="0.1675 0.1675 0.013" />
    </joint>
    <link name="box_23_lower_left_top" />
    <joint name="box_23_lower_left_top_joint" type="fixed">
        <parent link="box_23" />
        <child link="box_23_lower_left_top" />
        <origin rpy="0 0 0" xyz="0 0 0.195" />
    </joint>
    <link name="box_23_lower_right_top" />
    <joint name="box_23_lower_right_top_joint" type="fixed">
        <parent link="box_23" />
        <child link="box_23_lower_right_top" />
        <origin rpy="0 0 0" xyz="0.335 0 0.195" />
    </joint>
    <link name="box_23_upper_left_top" />
    <joint name="box_23_upper_left_top_joint" type="fixed">
        <parent link="box_23" />
        <child link="box_23_upper_left_top" />
        <origin rpy="0 0 0" xyz="0 0.335 0.195" />
    </joint>
    <link name="box_23_upper_right_top" />
    <joint name="box_23_upper_right_top_joint" type="fixed">
        <parent link="box_23" />
        <child link="box_23_upper_right_top" />
        <origin rpy="0 0 0" xyz="0.335 0.335 0.195" />
    </joint>
    <link name="box_23_center_top" />
    <joint name="box_23_center_top_joint" type="fixed">
        <parent link="box_23" />
        <child link="box_23_center_top" />
        <origin rpy="0 0 0" xyz="0.1675 0.1675 0.225" />
    </joint>
    <link name="box_26">
        <!-- w is in x, l is in y, h is in z -->
        <visual>
            <origin rpy="0 0 0" xyz="0.1675 0.1675 0.0065" />
            <geometry>
                <box size="0.335 0.335 0.013" />
            </geometry>
            <material name="orange">
                <color rgba="1 0.5088 0.0468 1" />
            </material>
        </visual>
        <collision>
            <origin rpy="0 0 0" xyz="0.1675 0.1675 0.0065" />
            <geometry>
                <box size="0.335 0.335 0.013" />
            </geometry>
        </collision>
        <!-- This is required for Gazebo. -->
        <inertial>
            <mass value="1.0" />
            <origin rpy="0 0 0" xyz="0.1675 0.335 0.0065" />
            <inertia ixx="0.0" ixy="0.0" ixz="0.0" iyy="0.0" iyz="0.0" izz="0.0" />
        </inertial>
    </link>
    <gazebo reference="box_26">
        <material>Gazebo/Orange</material>
    </gazebo>
    <joint name="box_26" type="fixed">
        <parent link="rack_t3_lower" />
        <child link="box_26" />
        <axis xyz="0 0 1" />
        <origin rpy="0 0 0" xyz="0.43 0 0" />
    </joint>
    <link name="box_26_frontside">
        <!-- w is in x, l is in y, h is in z -->
        <visual>
            <origin rpy="0 0 0" xyz="0.1675 0.0085 0.091" />
            <geometry>
                <box size="0.335 0.017 0.182" />
            </geometry>
            <material name="orange">
                <color rgba="1 0.5088 0.0468 1" />
            </material>
        </visual>
        <collision>
            <origin rpy="0 0 0" xyz="0.1675 0.0085 0.091" />
            <geometry>
                <box size="0.335 0.017 0.182" />
            </geometry>
        </collision>
        <!-- This is required for Gazebo. -->
        <inertial>
            <mass value="1.0" />
            <origin rpy="0 0 0" xyz="0.1675 0.017 0.091" />
            <inertia ixx="0.0" ixy="0.0" ixz="0.0" iyy="0.0" iyz="0.0" izz="0.0" />
        </inertial>
    </link>
    <gazebo reference="box_26_frontside">
        <material>Gazebo/Orange</material>
    </gazebo>
    <joint name="box_26_frontside" type="fixed">
        <parent link="box_26" />
        <child link="box_26_frontside" />
        <axis xyz="0 0 1" />
        <origin rpy="0 0 0" xyz="0 0 0.013" />
    </joint>
    <link name="box_26_backside">
        <!-- w is in x, l is in y, h is in z -->
        <visual>
            <origin rpy="0 0 0" xyz="0.1675 0.0085 0.091" />
            <geometry>
                <box size="0.335 0.017 0.182" />
            </geometry>
            <material name="orange">
                <color rgba="1 0.5088 0.0468 1" />
            </material>
        </visual>
        <collision>
            <origin rpy="0 0 0" xyz="0.1675 0.0085 0.091" />
            <geometry>
                <box size="0.335 0.017 0.182" />
            </geometry>
        </collision>
        <!-- This is required for Gazebo. -->
        <inertial>
            <mass value="1.0" />
            <origin rpy="0 0 0" xyz="0.1675 0.017 0.091" />
            <inertia ixx="0.0" ixy="0.0" ixz="0.0" iyy="0.0" iyz="0.0" izz="0.0" />
        </inertial>
    </link>
    <gazebo reference="box_26_backside">
        <material>Gazebo/Orange</material>
    </gazebo>
    <joint name="box_26_backside" type="fixed">
        <parent link="box_26" />
        <child link="box_26_backside" />
        <axis xyz="0 0 1" />
        <origin rpy="0 0 0" xyz="0 0.318 0.013" />
    </joint>
    <link name="box_26_leftside">
        <!-- w is in x, l is in y, h is in z -->
        <visual>
            <origin rpy="0 0 0" xyz="0.0085 0.15050000000000002 0.091" />
            <geometry>
                <box size="0.017 0.30100000000000005 0.182" />
            </geometry>
            <material name="orange">
                <color rgba="1 0.5088 0.0468 1" />
            </material>
        </visual>
        <collision>
            <origin rpy="0 0 0" xyz="0.0085 0.15050000000000002 0.091" />
            <geometry>
                <box size="0.017 0.30100000000000005 0.182" />
            </geometry>
        </collision>
        <!-- This is required for Gazebo. -->
        <inertial>
            <mass value="1.0" />
            <origin rpy="0 0 0" xyz="0.0085 0.30100000000000005 0.091" />
            <inertia ixx="0.0" ixy="0.0" ixz="0.0" iyy="0.0" iyz="0.0" izz="0.0" />
        </inertial>
    </link>
    <gazebo reference="box_26_leftside">
        <material>Gazebo/Orange</material>
    </gazebo>
    <joint name="box_26_leftside" type="fixed">
        <parent link="box_26" />
        <child link="box_26_leftside" />
        <axis xyz="0 0 1" />
        <origin rpy="0 0 0" xyz="0 0.017  0.013" />
    </joint>
    <link name="box_26_rightside">
        <!-- w is in x, l is in y, h is in z -->
        <visual>
            <origin rpy="0 0 0" xyz="0.0085 0.15050000000000002 0.091" />
            <geometry>
                <box size="0.017 0.30100000000000005 0.182" />
            </geometry>
            <material name="orange">
                <color rgba="1 0.5088 0.0468 1" />
            </material>
        </visual>
        <collision>
            <origin rpy="0 0 0" xyz="0.0085 0.15050000000000002 0.091" />
            <geometry>
                <box size="0.017 0.30100000000000005 0.182" />
            </geometry>
        </collision>
        <!-- This is required for Gazebo. -->
        <inertial>
            <mass value="1.0" />
            <origin rpy="0 0 0" xyz="0.0085 0.30100000000000005 0.091" />
            <inertia ixx="0.0" ixy="0.0" ixz="0.0" iyy="0.0" iyz="0.0" izz="0.0" />
        </inertial>
    </link>
    <gazebo reference="box_26_rightside">
        <material>Gazebo/Orange</material>
    </gazebo>
    <joint name="box_26_rightside" type="fixed">
        <parent link="box_26" />
        <child link="box_26_rightside" />
        <axis xyz="0 0 1" />
        <origin rpy="0 0 0" xyz="0.318      0.017      0.013" />
    </joint>
    <link name="box_26_bottom" />
    <joint name="box_26_bottom_joint" type="fixed">
        <parent link="box_26" />
        <child link="box_26_bottom" />
        <origin rpy="0 0 0" xyz="0.017 0.017 0.013" />
    </joint>
    <link name="box_26_center_bottom" />
    <joint name="box_26_center_bottom_joint" type="fixed">
        <parent link="box_26" />
        <child link="box_26_center_bottom" />
        <origin rpy="0 0 0" xyz="0.1675 0.1675 0.013" />
    </joint>
    <link name="box_26_lower_left_top" />
    <joint name="box_26_lower_left_top_joint" type="fixed">
        <parent link="box_26" />
        <child link="box_26_lower_left_top" />
        <origin rpy="0 0 0" xyz="0 0 0.195" />
    </joint>
    <link name="box_26_lower_right_top" />
    <joint name="box_26_lower_right_top_joint" type="fixed">
        <parent link="box_26" />
        <child link="box_26_lower_right_top" />
        <origin rpy="0 0 0" xyz="0.335 0 0.195" />
    </joint>
    <link name="box_26_upper_left_top" />
    <joint name="box_26_upper_left_top_joint" type="fixed">
        <parent link="box_26" />
        <child link="box_26_upper_left_top" />
        <origin rpy="0 0 0" xyz="0 0.335 0.195" />
    </joint>
    <link name="box_26_upper_right_top" />
    <joint name="box_26_upper_right_top_joint" type="fixed">
        <parent link="box_26" />
        <child link="box_26_upper_right_top" />
        <origin rpy="0 0 0" xyz="0.335 0.335 0.195" />
    </joint>
    <link name="box_26_center_top" />
    <joint name="box_26_center_top_joint" type="fixed">
        <parent link="box_26" />
        <child link="box_26_center_top" />
        <origin rpy="0 0 0" xyz="0.1675 0.1675 0.225" />
    </joint>
    <link name="box_42">
        <!-- w is in x, l is in y, h is in z -->
        <visual>
            <origin rpy="0 0 0" xyz="0.1675 0.1675 0.0065" />
            <geometry>
                <box size="0.335 0.335 0.013" />
            </geometry>
            <material name="orange">
                <color rgba="1 0.5088 0.0468 1" />
            </material>
        </visual>
        <collision>
            <origin rpy="0 0 0" xyz="0.1675 0.1675 0.0065" />
            <geometry>
                <box size="0.335 0.335 0.013" />
            </geometry>
        </collision>
        <!-- This is required for Gazebo. -->
        <inertial>
            <mass value="1.0" />
            <origin rpy="0 0 0" xyz="0.1675 0.335 0.0065" />
            <inertia ixx="0.0" ixy="0.0" ixz="0.0" iyy="0.0" iyz="0.0" izz="0.0" />
        </inertial>
    </link>
    <gazebo reference="box_42">
        <material>Gazebo/Orange</material>
    </gazebo>
    <joint name="box_42" type="fixed">
        <parent link="rack_t2_upper" />
        <child link="box_42" />
        <axis xyz="0 0 1" />
        <origin rpy="0 0 0" xyz="0.08499999999999996 0 0" />
    </joint>
    <link name="box_42_frontside">
        <!-- w is in x, l is in y, h is in z -->
        <visual>
            <origin rpy="0 0 0" xyz="0.1675 0.0085 0.045" />
            <geometry>
                <box size="0.335 0.017 0.09" />
            </geometry>
            <material name="orange">
                <color rgba="1 0.5088 0.0468 1" />
            </material>
        </visual>
        <collision>
            <origin rpy="0 0 0" xyz="0.1675 0.0085 0.045" />
            <geometry>
                <box size="0.335 0.017 0.09" />
            </geometry>
        </collision>
        <!-- This is required for Gazebo. -->
        <inertial>
            <mass value="1.0" />
            <origin rpy="0 0 0" xyz="0.1675 0.017 0.045" />
            <inertia ixx="0.0" ixy="0.0" ixz="0.0" iyy="0.0" iyz="0.0" izz="0.0" />
        </inertial>
    </link>
    <gazebo reference="box_42_frontside">
        <material>Gazebo/Orange</material>
    </gazebo>
    <joint name="box_42_frontside" type="fixed">
        <parent link="box_42" />
        <child link="box_42_frontside" />
        <axis xyz="0 0 1" />
        <origin rpy="0 0 0" xyz="0 0 0.013" />
    </joint>
    <link name="box_42_backside">
        <!-- w is in x, l is in y, h is in z -->
        <visual>
            <origin rpy="0 0 0" xyz="0.1675 0.0085 0.045" />
            <geometry>
                <box size="0.335 0.017 0.09" />
            </geometry>
            <material name="orange">
                <color rgba="1 0.5088 0.0468 1" />
            </material>
        </visual>
        <collision>
            <origin rpy="0 0 0" xyz="0.1675 0.0085 0.045" />
            <geometry>
                <box size="0.335 0.017 0.09" />
            </geometry>
        </collision>
        <!-- This is required for Gazebo. -->
        <inertial>
            <mass value="1.0" />
            <origin rpy="0 0 0" xyz="0.1675 0.017 0.045" />
            <inertia ixx="0.0" ixy="0.0" ixz="0.0" iyy="0.0" iyz="0.0" izz="0.0" />
        </inertial>
    </link>
    <gazebo reference="box_42_backside">
        <material>Gazebo/Orange</material>
    </gazebo>
    <joint name="box_42_backside" type="fixed">
        <parent link="box_42" />
        <child link="box_42_backside" />
        <axis xyz="0 0 1" />
        <origin rpy="0 0 0" xyz="0 0.318 0.013" />
    </joint>
    <link name="box_42_leftside">
        <!-- w is in x, l is in y, h is in z -->
        <visual>
            <origin rpy="0 0 0" xyz="0.0085 0.15050000000000002 0.045" />
            <geometry>
                <box size="0.017 0.30100000000000005 0.09" />
            </geometry>
            <material name="orange">
                <color rgba="1 0.5088 0.0468 1" />
            </material>
        </visual>
        <collision>
            <origin rpy="0 0 0" xyz="0.0085 0.15050000000000002 0.045" />
            <geometry>
                <box size="0.017 0.30100000000000005 0.09" />
            </geometry>
        </collision>
        <!-- This is required for Gazebo. -->
        <inertial>
            <mass value="1.0" />
            <origin rpy="0 0 0" xyz="0.0085 0.30100000000000005 0.045" />
            <inertia ixx="0.0" ixy="0.0" ixz="0.0" iyy="0.0" iyz="0.0" izz="0.0" />
        </inertial>
    </link>
    <gazebo reference="box_42_leftside">
        <material>Gazebo/Orange</material>
    </gazebo>
    <joint name="box_42_leftside" type="fixed">
        <parent link="box_42" />
        <child link="box_42_leftside" />
        <axis xyz="0 0 1" />
        <origin rpy="0 0 0" xyz="0 0.017  0.013" />
    </joint>
    <link name="box_42_rightside">
        <!-- w is in x, l is in y, h is in z -->
        <visual>
            <origin rpy="0 0 0" xyz="0.0085 0.15050000000000002 0.045" />
            <geometry>
                <box size="0.017 0.30100000000000005 0.09" />
            </geometry>
            <material name="orange">
                <color rgba="1 0.5088 0.0468 1" />
            </material>
        </visual>
        <collision>
            <origin rpy="0 0 0" xyz="0.0085 0.15050000000000002 0.045" />
            <geometry>
                <box size="0.017 0.30100000000000005 0.09" />
            </geometry>
        </collision>
        <!-- This is required for Gazebo. -->
        <inertial>
            <mass value="1.0" />
            <origin rpy="0 0 0" xyz="0.0085 0.30100000000000005 0.045" />
            <inertia ixx="0.0" ixy="0.0" ixz="0.0" iyy="0.0" iyz="0.0" izz="0.0" />
        </inertial>
    </link>
    <gazebo reference="box_42_rightside">
        <material>Gazebo/Orange</material>
    </gazebo>
    <joint name="box_42_rightside" type="fixed">
        <parent link="box_42" />
        <child link="box_42_rightside" />
        <axis xyz="0 0 1" />
        <origin rpy="0 0 0" xyz="0.318      0.017      0.013" />
    </joint>
    <link name="box_42_bottom" />
    <joint name="box_42_bottom_joint" type="fixed">
        <parent link="box_42" />
        <child link="box_42_bottom" />
        <origin rpy="0 0 0" xyz="0.017 0.017 0.013" />
    </joint>
    <link name="box_42_center_bottom" />
    <joint name="box_42_center_bottom_joint" type="fixed">
        <parent link="box_42" />
        <child link="box_42_center_bottom" />
        <origin rpy="0 0 0" xyz="0.1675 0.1675 0.013" />
    </joint>
    <link name="box_42_lower_left_top" />
    <joint name="box_42_lower_left_top_joint" type="fixed">
        <parent link="box_42" />
        <child link="box_42_lower_left_top" />
        <origin rpy="0 0 0" xyz="0 0 0.103" />
    </joint>
    <link name="box_42_lower_right_top" />
    <joint name="box_42_lower_right_top_joint" type="fixed">
        <parent link="box_42" />
        <child link="box_42_lower_right_top" />
        <origin rpy="0 0 0" xyz="0.335 0 0.103" />
    </joint>
    <link name="box_42_upper_left_top" />
    <joint name="box_42_upper_left_top_joint" type="fixed">
        <parent link="box_42" />
        <child link="box_42_upper_left_top" />
        <origin rpy="0 0 0" xyz="0 0.335 0.103" />
    </joint>
    <link name="box_42_upper_right_top" />
    <joint name="box_42_upper_right_top_joint" type="fixed">
        <parent link="box_42" />
        <child link="box_42_upper_right_top" />
        <origin rpy="0 0 0" xyz="0.335 0.335 0.103" />
    </joint>
    <link name="box_42_center_top" />
    <joint name="box_42_center_top_joint" type="fixed">
        <parent link="box_42" />
        <child link="box_42_center_top" />
        <origin rpy="0 0 0" xyz="0.1675 0.1675 0.133" />
    </joint>
    <link name="box_41">
        <!-- w is in x, l is in y, h is in z -->
        <visual>
            <origin rpy="0 0 0" xyz="0.1675 0.1675 0.0065" />
            <geometry>
                <box size="0.335 0.335 0.013" />
            </geometry>
            <material name="orange">
                <color rgba="1 0.5088 0.0468 1" />
            </material>
        </visual>
        <collision>
            <origin rpy="0 0 0" xyz="0.1675 0.1675 0.0065" />
            <geometry>
                <box size="0.335 0.335 0.013" />
            </geometry>
        </collision>
        <!-- This is required for Gazebo. -->
        <inertial>
            <mass value="1.0" />
            <origin rpy="0 0 0" xyz="0.1675 0.335 0.0065" />
            <inertia ixx="0.0" ixy="0.0" ixz="0.0" iyy="0.0" iyz="0.0" izz="0.0" />
        </inertial>
    </link>
    <gazebo reference="box_41">
        <material>Gazebo/Orange</material>
    </gazebo>
    <joint name="box_41" type="fixed">
        <parent link="rack_t2_upper" />
        <child link="box_41" />
        <axis xyz="0 0 1" />
        <origin rpy="0 0 0" xyz="0.43 0 0" />
    </joint>
    <link name="box_41_frontside">
        <!-- w is in x, l is in y, h is in z -->
        <visual>
            <origin rpy="0 0 0" xyz="0.1675 0.0085 0.045" />
            <geometry>
                <box size="0.335 0.017 0.09" />
            </geometry>
            <material name="orange">
                <color rgba="1 0.5088 0.0468 1" />
            </material>
        </visual>
        <collision>
            <origin rpy="0 0 0" xyz="0.1675 0.0085 0.045" />
            <geometry>
                <box size="0.335 0.017 0.09" />
            </geometry>
        </collision>
        <!-- This is required for Gazebo. -->
        <inertial>
            <mass value="1.0" />
            <origin rpy="0 0 0" xyz="0.1675 0.017 0.045" />
            <inertia ixx="0.0" ixy="0.0" ixz="0.0" iyy="0.0" iyz="0.0" izz="0.0" />
        </inertial>
    </link>
    <gazebo reference="box_41_frontside">
        <material>Gazebo/Orange</material>
    </gazebo>
    <joint name="box_41_frontside" type="fixed">
        <parent link="box_41" />
        <child link="box_41_frontside" />
        <axis xyz="0 0 1" />
        <origin rpy="0 0 0" xyz="0 0 0.013" />
    </joint>
    <link name="box_41_backside">
        <!-- w is in x, l is in y, h is in z -->
        <visual>
            <origin rpy="0 0 0" xyz="0.1675 0.0085 0.045" />
            <geometry>
                <box size="0.335 0.017 0.09" />
            </geometry>
            <material name="orange">
                <color rgba="1 0.5088 0.0468 1" />
            </material>
        </visual>
        <collision>
            <origin rpy="0 0 0" xyz="0.1675 0.0085 0.045" />
            <geometry>
                <box size="0.335 0.017 0.09" />
            </geometry>
        </collision>
        <!-- This is required for Gazebo. -->
        <inertial>
            <mass value="1.0" />
            <origin rpy="0 0 0" xyz="0.1675 0.017 0.045" />
            <inertia ixx="0.0" ixy="0.0" ixz="0.0" iyy="0.0" iyz="0.0" izz="0.0" />
        </inertial>
    </link>
    <gazebo reference="box_41_backside">
        <material>Gazebo/Orange</material>
    </gazebo>
    <joint name="box_41_backside" type="fixed">
        <parent link="box_41" />
        <child link="box_41_backside" />
        <axis xyz="0 0 1" />
        <origin rpy="0 0 0" xyz="0 0.318 0.013" />
    </joint>
    <link name="box_41_leftside">
        <!-- w is in x, l is in y, h is in z -->
        <visual>
            <origin rpy="0 0 0" xyz="0.0085 0.15050000000000002 0.045" />
            <geometry>
                <box size="0.017 0.30100000000000005 0.09" />
            </geometry>
            <material name="orange">
                <color rgba="1 0.5088 0.0468 1" />
            </material>
        </visual>
        <collision>
            <origin rpy="0 0 0" xyz="0.0085 0.15050000000000002 0.045" />
            <geometry>
                <box size="0.017 0.30100000000000005 0.09" />
            </geometry>
        </collision>
        <!-- This is required for Gazebo. -->
        <inertial>
            <mass value="1.0" />
            <origin rpy="0 0 0" xyz="0.0085 0.30100000000000005 0.045" />
            <inertia ixx="0.0" ixy="0.0" ixz="0.0" iyy="0.0" iyz="0.0" izz="0.0" />
        </inertial>
    </link>
    <gazebo reference="box_41_leftside">
        <material>Gazebo/Orange</material>
    </gazebo>
    <joint name="box_41_leftside" type="fixed">
        <parent link="box_41" />
        <child link="box_41_leftside" />
        <axis xyz="0 0 1" />
        <origin rpy="0 0 0" xyz="0 0.017  0.013" />
    </joint>
    <link name="box_41_rightside">
        <!-- w is in x, l is in y, h is in z -->
        <visual>
            <origin rpy="0 0 0" xyz="0.0085 0.15050000000000002 0.045" />
            <geometry>
                <box size="0.017 0.30100000000000005 0.09" />
            </geometry>
            <material name="orange">
                <color rgba="1 0.5088 0.0468 1" />
            </material>
        </visual>
        <collision>
            <origin rpy="0 0 0" xyz="0.0085 0.15050000000000002 0.045" />
            <geometry>
                <box size="0.017 0.30100000000000005 0.09" />
            </geometry>
        </collision>
        <!-- This is required for Gazebo. -->
        <inertial>
            <mass value="1.0" />
            <origin rpy="0 0 0" xyz="0.0085 0.30100000000000005 0.045" />
            <inertia ixx="0.0" ixy="0.0" ixz="0.0" iyy="0.0" iyz="0.0" izz="0.0" />
        </inertial>
    </link>
    <gazebo reference="box_41_rightside">
        <material>Gazebo/Orange</material>
    </gazebo>
    <joint name="box_41_rightside" type="fixed">
        <parent link="box_41" />
        <child link="box_41_rightside" />
        <axis xyz="0 0 1" />
        <origin rpy="0 0 0" xyz="0.318      0.017      0.013" />
    </joint>
    <link name="box_41_bottom" />
    <joint name="box_41_bottom_joint" type="fixed">
        <parent link="box_41" />
        <child link="box_41_bottom" />
        <origin rpy="0 0 0" xyz="0.017 0.017 0.013" />
    </joint>
    <link name="box_41_center_bottom" />
    <joint name="box_41_center_bottom_joint" type="fixed">
        <parent link="box_41" />
        <child link="box_41_center_bottom" />
        <origin rpy="0 0 0" xyz="0.1675 0.1675 0.013" />
    </joint>
    <link name="box_41_lower_left_top" />
    <joint name="box_41_lower_left_top_joint" type="fixed">
        <parent link="box_41" />
        <child link="box_41_lower_left_top" />
        <origin rpy="0 0 0" xyz="0 0 0.103" />
    </joint>
    <link name="box_41_lower_right_top" />
    <joint name="box_41_lower_right_top_joint" type="fixed">
        <parent link="box_41" />
        <child link="box_41_lower_right_top" />
        <origin rpy="0 0 0" xyz="0.335 0 0.103" />
    </joint>
    <link name="box_41_upper_left_top" />
    <joint name="box_41_upper_left_top_joint" type="fixed">
        <parent link="box_41" />
        <child link="box_41_upper_left_top" />
        <origin rpy="0 0 0" xyz="0 0.335 0.103" />
    </joint>
    <link name="box_41_upper_right_top" />
    <joint name="box_41_upper_right_top_joint" type="fixed">
        <parent link="box_41" />
        <child link="box_41_upper_right_top" />
        <origin rpy="0 0 0" xyz="0.335 0.335 0.103" />
    </joint>
    <link name="box_41_center_top" />
    <joint name="box_41_center_top_joint" type="fixed">
        <parent link="box_41" />
        <child link="box_41_center_top" />
        <origin rpy="0 0 0" xyz="0.1675 0.1675 0.133" />
    </joint>
    <link name="box_5">
        <!-- w is in x, l is in y, h is in z -->
        <visual>
            <origin rpy="0 0 0" xyz="0.1675 0.1675 0.0065" />
            <geometry>
                <box size="0.335 0.335 0.013" />
            </geometry>
            <material name="orange">
                <color rgba="1 0.5088 0.0468 1" />
            </material>
        </visual>
        <collision>
            <origin rpy="0 0 0" xyz="0.1675 0.1675 0.0065" />
            <geometry>
                <box size="0.335 0.335 0.013" />
            </geometry>
        </collision>
        <!-- This is required for Gazebo. -->
        <inertial>
            <mass value="1.0" />
            <origin rpy="0 0 0" xyz="0.1675 0.335 0.0065" />
            <inertia ixx="0.0" ixy="0.0" ixz="0.0" iyy="0.0" iyz="0.0" izz="0.0" />
        </inertial>
    </link>
    <gazebo reference="box_5">
        <material>Gazebo/Orange</material>
    </gazebo>
    <joint name="box_5" type="fixed">
        <parent link="rack_t2_lower" />
        <child link="box_5" />
        <axis xyz="0 0 1" />
        <origin rpy="0 0 0" xyz="0.08499999999999996 0 0" />
    </joint>
    <link name="box_5_frontside">
        <!-- w is in x, l is in y, h is in z -->
        <visual>
            <origin rpy="0 0 0" xyz="0.1675 0.0085 0.045" />
            <geometry>
                <box size="0.335 0.017 0.09" />
            </geometry>
            <material name="orange">
                <color rgba="1 0.5088 0.0468 1" />
            </material>
        </visual>
        <collision>
            <origin rpy="0 0 0" xyz="0.1675 0.0085 0.045" />
            <geometry>
                <box size="0.335 0.017 0.09" />
            </geometry>
        </collision>
        <!-- This is required for Gazebo. -->
        <inertial>
            <mass value="1.0" />
            <origin rpy="0 0 0" xyz="0.1675 0.017 0.045" />
            <inertia ixx="0.0" ixy="0.0" ixz="0.0" iyy="0.0" iyz="0.0" izz="0.0" />
        </inertial>
    </link>
    <gazebo reference="box_5_frontside">
        <material>Gazebo/Orange</material>
    </gazebo>
    <joint name="box_5_frontside" type="fixed">
        <parent link="box_5" />
        <child link="box_5_frontside" />
        <axis xyz="0 0 1" />
        <origin rpy="0 0 0" xyz="0 0 0.013" />
    </joint>
    <link name="box_5_backside">
        <!-- w is in x, l is in y, h is in z -->
        <visual>
            <origin rpy="0 0 0" xyz="0.1675 0.0085 0.045" />
            <geometry>
                <box size="0.335 0.017 0.09" />
            </geometry>
            <material name="orange">
                <color rgba="1 0.5088 0.0468 1" />
            </material>
        </visual>
        <collision>
            <origin rpy="0 0 0" xyz="0.1675 0.0085 0.045" />
            <geometry>
                <box size="0.335 0.017 0.09" />
            </geometry>
        </collision>
        <!-- This is required for Gazebo. -->
        <inertial>
            <mass value="1.0" />
            <origin rpy="0 0 0" xyz="0.1675 0.017 0.045" />
            <inertia ixx="0.0" ixy="0.0" ixz="0.0" iyy="0.0" iyz="0.0" izz="0.0" />
        </inertial>
    </link>
    <gazebo reference="box_5_backside">
        <material>Gazebo/Orange</material>
    </gazebo>
    <joint name="box_5_backside" type="fixed">
        <parent link="box_5" />
        <child link="box_5_backside" />
        <axis xyz="0 0 1" />
        <origin rpy="0 0 0" xyz="0 0.318 0.013" />
    </joint>
    <link name="box_5_leftside">
        <!-- w is in x, l is in y, h is in z -->
        <visual>
            <origin rpy="0 0 0" xyz="0.0085 0.15050000000000002 0.045" />
            <geometry>
                <box size="0.017 0.30100000000000005 0.09" />
            </geometry>
            <material name="orange">
                <color rgba="1 0.5088 0.0468 1" />
            </material>
        </visual>
        <collision>
            <origin rpy="0 0 0" xyz="0.0085 0.15050000000000002 0.045" />
            <geometry>
                <box size="0.017 0.30100000000000005 0.09" />
            </geometry>
        </collision>
        <!-- This is required for Gazebo. -->
        <inertial>
            <mass value="1.0" />
            <origin rpy="0 0 0" xyz="0.0085 0.30100000000000005 0.045" />
            <inertia ixx="0.0" ixy="0.0" ixz="0.0" iyy="0.0" iyz="0.0" izz="0.0" />
        </inertial>
    </link>
    <gazebo reference="box_5_leftside">
        <material>Gazebo/Orange</material>
    </gazebo>
    <joint name="box_5_leftside" type="fixed">
        <parent link="box_5" />
        <child link="box_5_leftside" />
        <axis xyz="0 0 1" />
        <origin rpy="0 0 0" xyz="0 0.017  0.013" />
    </joint>
    <link name="box_5_rightside">
        <!-- w is in x, l is in y, h is in z -->
        <visual>
            <origin rpy="0 0 0" xyz="0.0085 0.15050000000000002 0.045" />
            <geometry>
                <box size="0.017 0.30100000000000005 0.09" />
            </geometry>
            <material name="orange">
                <color rgba="1 0.5088 0.0468 1" />
            </material>
        </visual>
        <collision>
            <origin rpy="0 0 0" xyz="0.0085 0.15050000000000002 0.045" />
            <geometry>
                <box size="0.017 0.30100000000000005 0.09" />
            </geometry>
        </collision>
        <!-- This is required for Gazebo. -->
        <inertial>
            <mass value="1.0" />
            <origin rpy="0 0 0" xyz="0.0085 0.30100000000000005 0.045" />
            <inertia ixx="0.0" ixy="0.0" ixz="0.0" iyy="0.0" iyz="0.0" izz="0.0" />
        </inertial>
    </link>
    <gazebo reference="box_5_rightside">
        <material>Gazebo/Orange</material>
    </gazebo>
    <joint name="box_5_rightside" type="fixed">
        <parent link="box_5" />
        <child link="box_5_rightside" />
        <axis xyz="0 0 1" />
        <origin rpy="0 0 0" xyz="0.318      0.017      0.013" />
    </joint>
    <link name="box_5_bottom" />
    <joint name="box_5_bottom_joint" type="fixed">
        <parent link="box_5" />
        <child link="box_5_bottom" />
        <origin rpy="0 0 0" xyz="0.017 0.017 0.013" />
    </joint>
    <link name="box_5_center_bottom" />
    <joint name="box_5_center_bottom_joint" type="fixed">
        <parent link="box_5" />
        <child link="box_5_center_bottom" />
        <origin rpy="0 0 0" xyz="0.1675 0.1675 0.013" />
    </joint>
    <link name="box_5_lower_left_top" />
    <joint name="box_5_lower_left_top_joint" type="fixed">
        <parent link="box_5" />
        <child link="box_5_lower_left_top" />
        <origin rpy="0 0 0" xyz="0 0 0.103" />
    </joint>
    <link name="box_5_lower_right_top" />
    <joint name="box_5_lower_right_top_joint" type="fixed">
        <parent link="box_5" />
        <child link="box_5_lower_right_top" />
        <origin rpy="0 0 0" xyz="0.335 0 0.103" />
    </joint>
    <link name="box_5_upper_left_top" />
    <joint name="box_5_upper_left_top_joint" type="fixed">
        <parent link="box_5" />
        <child link="box_5_upper_left_top" />
        <origin rpy="0 0 0" xyz="0 0.335 0.103" />
    </joint>
    <link name="box_5_upper_right_top" />
    <joint name="box_5_upper_right_top_joint" type="fixed">
        <parent link="box_5" />
        <child link="box_5_upper_right_top" />
        <origin rpy="0 0 0" xyz="0.335 0.335 0.103" />
    </joint>
    <link name="box_5_center_top" />
    <joint name="box_5_center_top_joint" type="fixed">
        <parent link="box_5" />
        <child link="box_5_center_top" />
        <origin rpy="0 0 0" xyz="0.1675 0.1675 0.133" />
    </joint>
    <link name="box_9">
        <!-- w is in x, l is in y, h is in z -->
        <visual>
            <origin rpy="0 0 0" xyz="0.1675 0.1675 0.0065" />
            <geometry>
                <box size="0.335 0.335 0.013" />
            </geometry>
            <material name="orange">
                <color rgba="1 0.5088 0.0468 1" />
            </material>
        </visual>
        <collision>
            <origin rpy="0 0 0" xyz="0.1675 0.1675 0.0065" />
            <geometry>
                <box size="0.335 0.335 0.013" />
            </geometry>
        </collision>
        <!-- This is required for Gazebo. -->
        <inertial>
            <mass value="1.0" />
            <origin rpy="0 0 0" xyz="0.1675 0.335 0.0065" />
            <inertia ixx="0.0" ixy="0.0" ixz="0.0" iyy="0.0" iyz="0.0" izz="0.0" />
        </inertial>
    </link>
    <gazebo reference="box_9">
        <material>Gazebo/Orange</material>
    </gazebo>
    <joint name="box_9" type="fixed">
        <parent link="rack_t2_lower" />
        <child link="box_9" />
        <axis xyz="0 0 1" />
        <origin rpy="0 0 0" xyz="0.43 0 0" />
    </joint>
    <link name="box_9_frontside">
        <!-- w is in x, l is in y, h is in z -->
        <visual>
            <origin rpy="0 0 0" xyz="0.1675 0.0085 0.091" />
            <geometry>
                <box size="0.335 0.017 0.182" />
            </geometry>
            <material name="orange">
                <color rgba="1 0.5088 0.0468 1" />
            </material>
        </visual>
        <collision>
            <origin rpy="0 0 0" xyz="0.1675 0.0085 0.091" />
            <geometry>
                <box size="0.335 0.017 0.182" />
            </geometry>
        </collision>
        <!-- This is required for Gazebo. -->
        <inertial>
            <mass value="1.0" />
            <origin rpy="0 0 0" xyz="0.1675 0.017 0.091" />
            <inertia ixx="0.0" ixy="0.0" ixz="0.0" iyy="0.0" iyz="0.0" izz="0.0" />
        </inertial>
    </link>
    <gazebo reference="box_9_frontside">
        <material>Gazebo/Orange</material>
    </gazebo>
    <joint name="box_9_frontside" type="fixed">
        <parent link="box_9" />
        <child link="box_9_frontside" />
        <axis xyz="0 0 1" />
        <origin rpy="0 0 0" xyz="0 0 0.013" />
    </joint>
    <link name="box_9_backside">
        <!-- w is in x, l is in y, h is in z -->
        <visual>
            <origin rpy="0 0 0" xyz="0.1675 0.0085 0.091" />
            <geometry>
                <box size="0.335 0.017 0.182" />
            </geometry>
            <material name="orange">
                <color rgba="1 0.5088 0.0468 1" />
            </material>
        </visual>
        <collision>
            <origin rpy="0 0 0" xyz="0.1675 0.0085 0.091" />
            <geometry>
                <box size="0.335 0.017 0.182" />
            </geometry>
        </collision>
        <!-- This is required for Gazebo. -->
        <inertial>
            <mass value="1.0" />
            <origin rpy="0 0 0" xyz="0.1675 0.017 0.091" />
            <inertia ixx="0.0" ixy="0.0" ixz="0.0" iyy="0.0" iyz="0.0" izz="0.0" />
        </inertial>
    </link>
    <gazebo reference="box_9_backside">
        <material>Gazebo/Orange</material>
    </gazebo>
    <joint name="box_9_backside" type="fixed">
        <parent link="box_9" />
        <child link="box_9_backside" />
        <axis xyz="0 0 1" />
        <origin rpy="0 0 0" xyz="0 0.318 0.013" />
    </joint>
    <link name="box_9_leftside">
        <!-- w is in x, l is in y, h is in z -->
        <visual>
            <origin rpy="0 0 0" xyz="0.0085 0.15050000000000002 0.091" />
            <geometry>
                <box size="0.017 0.30100000000000005 0.182" />
            </geometry>
            <material name="orange">
                <color rgba="1 0.5088 0.0468 1" />
            </material>
        </visual>
        <collision>
            <origin rpy="0 0 0" xyz="0.0085 0.15050000000000002 0.091" />
            <geometry>
                <box size="0.017 0.30100000000000005 0.182" />
            </geometry>
        </collision>
        <!-- This is required for Gazebo. -->
        <inertial>
            <mass value="1.0" />
            <origin rpy="0 0 0" xyz="0.0085 0.30100000000000005 0.091" />
            <inertia ixx="0.0" ixy="0.0" ixz="0.0" iyy="0.0" iyz="0.0" izz="0.0" />
        </inertial>
    </link>
    <gazebo reference="box_9_leftside">
        <material>Gazebo/Orange</material>
    </gazebo>
    <joint name="box_9_leftside" type="fixed">
        <parent link="box_9" />
        <child link="box_9_leftside" />
        <axis xyz="0 0 1" />
        <origin rpy="0 0 0" xyz="0 0.017  0.013" />
    </joint>
    <link name="box_9_rightside">
        <!-- w is in x, l is in y, h is in z -->
        <visual>
            <origin rpy="0 0 0" xyz="0.0085 0.15050000000000002 0.091" />
            <geometry>
                <box size="0.017 0.30100000000000005 0.182" />
            </geometry>
            <material name="orange">
                <color rgba="1 0.5088 0.0468 1" />
            </material>
        </visual>
        <collision>
            <origin rpy="0 0 0" xyz="0.0085 0.15050000000000002 0.091" />
            <geometry>
                <box size="0.017 0.30100000000000005 0.182" />
            </geometry>
        </collision>
        <!-- This is required for Gazebo. -->
        <inertial>
            <mass value="1.0" />
            <origin rpy="0 0 0" xyz="0.0085 0.30100000000000005 0.091" />
            <inertia ixx="0.0" ixy="0.0" ixz="0.0" iyy="0.0" iyz="0.0" izz="0.0" />
        </inertial>
    </link>
    <gazebo reference="box_9_rightside">
        <material>Gazebo/Orange</material>
    </gazebo>
    <joint name="box_9_rightside" type="fixed">
        <parent link="box_9" />
        <child link="box_9_rightside" />
        <axis xyz="0 0 1" />
        <origin rpy="0 0 0" xyz="0.318      0.017      0.013" />
    </joint>
    <link name="box_9_bottom" />
    <joint name="box_9_bottom_joint" type="fixed">
        <parent link="box_9" />
        <child link="box_9_bottom" />
        <origin rpy="0 0 0" xyz="0.017 0.017 0.013" />
    </joint>
    <link name="box_9_center_bottom" />
    <joint name="box_9_center_bottom_joint" type="fixed">
        <parent link="box_9" />
        <child link="box_9_center_bottom" />
        <origin rpy="0 0 0" xyz="0.1675 0.1675 0.013" />
    </joint>
    <link name="box_9_lower_left_top" />
    <joint name="box_9_lower_left_top_joint" type="fixed">
        <parent link="box_9" />
        <child link="box_9_lower_left_top" />
        <origin rpy="0 0 0" xyz="0 0 0.195" />
    </joint>
    <link name="box_9_lower_right_top" />
    <joint name="box_9_lower_right_top_joint" type="fixed">
        <parent link="box_9" />
        <child link="box_9_lower_right_top" />
        <origin rpy="0 0 0" xyz="0.335 0 0.195" />
    </joint>
    <link name="box_9_upper_left_top" />
    <joint name="box_9_upper_left_top_joint" type="fixed">
        <parent link="box_9" />
        <child link="box_9_upper_left_top" />
        <origin rpy="0 0 0" xyz="0 0.335 0.195" />
    </joint>
    <link name="box_9_upper_right_top" />
    <joint name="box_9_upper_right_top_joint" type="fixed">
        <parent link="box_9" />
        <child link="box_9_upper_right_top" />
        <origin rpy="0 0 0" xyz="0.335 0.335 0.195" />
    </joint>
    <link name="box_9_center_top" />
    <joint name="box_9_center_top_joint" type="fixed">
        <parent link="box_9" />
        <child link="box_9_center_top" />
        <origin rpy="0 0 0" xyz="0.1675 0.1675 0.225" />
    </joint>
    <link name="box_44">
        <!-- w is in x, l is in y, h is in z -->
        <visual>
            <origin rpy="0 0 0" xyz="0.1675 0.1675 0.0065" />
            <geometry>
                <box size="0.335 0.335 0.013" />
            </geometry>
            <material name="orange">
                <color rgba="1 0.5088 0.0468 1" />
            </material>
        </visual>
        <collision>
            <origin rpy="0 0 0" xyz="0.1675 0.1675 0.0065" />
            <geometry>
                <box size="0.335 0.335 0.013" />
            </geometry>
        </collision>
        <!-- This is required for Gazebo. -->
        <inertial>
            <mass value="1.0" />
            <origin rpy="0 0 0" xyz="0.1675 0.335 0.0065" />
            <inertia ixx="0.0" ixy="0.0" ixz="0.0" iyy="0.0" iyz="0.0" izz="0.0" />
        </inertial>
    </link>
    <gazebo reference="box_44">
        <material>Gazebo/Orange</material>
    </gazebo>
    <joint name="box_44" type="fixed">
        <parent link="rack_t1_upper" />
        <child link="box_44" />
        <axis xyz="0 0 1" />
        <origin rpy="0 0 0" xyz="0.08499999999999996 0 0" />
    </joint>
    <link name="box_44_frontside">
        <!-- w is in x, l is in y, h is in z -->
        <visual>
            <origin rpy="0 0 0" xyz="0.1675 0.0085 0.045" />
            <geometry>
                <box size="0.335 0.017 0.09" />
            </geometry>
            <material name="orange">
                <color rgba="1 0.5088 0.0468 1" />
            </material>
        </visual>
        <collision>
            <origin rpy="0 0 0" xyz="0.1675 0.0085 0.045" />
            <geometry>
                <box size="0.335 0.017 0.09" />
            </geometry>
        </collision>
        <!-- This is required for Gazebo. -->
        <inertial>
            <mass value="1.0" />
            <origin rpy="0 0 0" xyz="0.1675 0.017 0.045" />
            <inertia ixx="0.0" ixy="0.0" ixz="0.0" iyy="0.0" iyz="0.0" izz="0.0" />
        </inertial>
    </link>
    <gazebo reference="box_44_frontside">
        <material>Gazebo/Orange</material>
    </gazebo>
    <joint name="box_44_frontside" type="fixed">
        <parent link="box_44" />
        <child link="box_44_frontside" />
        <axis xyz="0 0 1" />
        <origin rpy="0 0 0" xyz="0 0 0.013" />
    </joint>
    <link name="box_44_backside">
        <!-- w is in x, l is in y, h is in z -->
        <visual>
            <origin rpy="0 0 0" xyz="0.1675 0.0085 0.045" />
            <geometry>
                <box size="0.335 0.017 0.09" />
            </geometry>
            <material name="orange">
                <color rgba="1 0.5088 0.0468 1" />
            </material>
        </visual>
        <collision>
            <origin rpy="0 0 0" xyz="0.1675 0.0085 0.045" />
            <geometry>
                <box size="0.335 0.017 0.09" />
            </geometry>
        </collision>
        <!-- This is required for Gazebo. -->
        <inertial>
            <mass value="1.0" />
            <origin rpy="0 0 0" xyz="0.1675 0.017 0.045" />
            <inertia ixx="0.0" ixy="0.0" ixz="0.0" iyy="0.0" iyz="0.0" izz="0.0" />
        </inertial>
    </link>
    <gazebo reference="box_44_backside">
        <material>Gazebo/Orange</material>
    </gazebo>
    <joint name="box_44_backside" type="fixed">
        <parent link="box_44" />
        <child link="box_44_backside" />
        <axis xyz="0 0 1" />
        <origin rpy="0 0 0" xyz="0 0.318 0.013" />
    </joint>
    <link name="box_44_leftside">
        <!-- w is in x, l is in y, h is in z -->
        <visual>
            <origin rpy="0 0 0" xyz="0.0085 0.15050000000000002 0.045" />
            <geometry>
                <box size="0.017 0.30100000000000005 0.09" />
            </geometry>
            <material name="orange">
                <color rgba="1 0.5088 0.0468 1" />
            </material>
        </visual>
        <collision>
            <origin rpy="0 0 0" xyz="0.0085 0.15050000000000002 0.045" />
            <geometry>
                <box size="0.017 0.30100000000000005 0.09" />
            </geometry>
        </collision>
        <!-- This is required for Gazebo. -->
        <inertial>
            <mass value="1.0" />
            <origin rpy="0 0 0" xyz="0.0085 0.30100000000000005 0.045" />
            <inertia ixx="0.0" ixy="0.0" ixz="0.0" iyy="0.0" iyz="0.0" izz="0.0" />
        </inertial>
    </link>
    <gazebo reference="box_44_leftside">
        <material>Gazebo/Orange</material>
    </gazebo>
    <joint name="box_44_leftside" type="fixed">
        <parent link="box_44" />
        <child link="box_44_leftside" />
        <axis xyz="0 0 1" />
        <origin rpy="0 0 0" xyz="0 0.017  0.013" />
    </joint>
    <link name="box_44_rightside">
        <!-- w is in x, l is in y, h is in z -->
        <visual>
            <origin rpy="0 0 0" xyz="0.0085 0.15050000000000002 0.045" />
            <geometry>
                <box size="0.017 0.30100000000000005 0.09" />
            </geometry>
            <material name="orange">
                <color rgba="1 0.5088 0.0468 1" />
            </material>
        </visual>
        <collision>
            <origin rpy="0 0 0" xyz="0.0085 0.15050000000000002 0.045" />
            <geometry>
                <box size="0.017 0.30100000000000005 0.09" />
            </geometry>
        </collision>
        <!-- This is required for Gazebo. -->
        <inertial>
            <mass value="1.0" />
            <origin rpy="0 0 0" xyz="0.0085 0.30100000000000005 0.045" />
            <inertia ixx="0.0" ixy="0.0" ixz="0.0" iyy="0.0" iyz="0.0" izz="0.0" />
        </inertial>
    </link>
    <gazebo reference="box_44_rightside">
        <material>Gazebo/Orange</material>
    </gazebo>
    <joint name="box_44_rightside" type="fixed">
        <parent link="box_44" />
        <child link="box_44_rightside" />
        <axis xyz="0 0 1" />
        <origin rpy="0 0 0" xyz="0.318      0.017      0.013" />
    </joint>
    <link name="box_44_bottom" />
    <joint name="box_44_bottom_joint" type="fixed">
        <parent link="box_44" />
        <child link="box_44_bottom" />
        <origin rpy="0 0 0" xyz="0.017 0.017 0.013" />
    </joint>
    <link name="box_44_center_bottom" />
    <joint name="box_44_center_bottom_joint" type="fixed">
        <parent link="box_44" />
        <child link="box_44_center_bottom" />
        <origin rpy="0 0 0" xyz="0.1675 0.1675 0.013" />
    </joint>
    <link name="box_44_lower_left_top" />
    <joint name="box_44_lower_left_top_joint" type="fixed">
        <parent link="box_44" />
        <child link="box_44_lower_left_top" />
        <origin rpy="0 0 0" xyz="0 0 0.103" />
    </joint>
    <link name="box_44_lower_right_top" />
    <joint name="box_44_lower_right_top_joint" type="fixed">
        <parent link="box_44" />
        <child link="box_44_lower_right_top" />
        <origin rpy="0 0 0" xyz="0.335 0 0.103" />
    </joint>
    <link name="box_44_upper_left_top" />
    <joint name="box_44_upper_left_top_joint" type="fixed">
        <parent link="box_44" />
        <child link="box_44_upper_left_top" />
        <origin rpy="0 0 0" xyz="0 0.335 0.103" />
    </joint>
    <link name="box_44_upper_right_top" />
    <joint name="box_44_upper_right_top_joint" type="fixed">
        <parent link="box_44" />
        <child link="box_44_upper_right_top" />
        <origin rpy="0 0 0" xyz="0.335 0.335 0.103" />
    </joint>
    <link name="box_44_center_top" />
    <joint name="box_44_center_top_joint" type="fixed">
        <parent link="box_44" />
        <child link="box_44_center_top" />
        <origin rpy="0 0 0" xyz="0.1675 0.1675 0.133" />
    </joint>
    <link name="box_43">
        <!-- w is in x, l is in y, h is in z -->
        <visual>
            <origin rpy="0 0 0" xyz="0.1675 0.1675 0.0065" />
            <geometry>
                <box size="0.335 0.335 0.013" />
            </geometry>
            <material name="orange">
                <color rgba="1 0.5088 0.0468 1" />
            </material>
        </visual>
        <collision>
            <origin rpy="0 0 0" xyz="0.1675 0.1675 0.0065" />
            <geometry>
                <box size="0.335 0.335 0.013" />
            </geometry>
        </collision>
        <!-- This is required for Gazebo. -->
        <inertial>
            <mass value="1.0" />
            <origin rpy="0 0 0" xyz="0.1675 0.335 0.0065" />
            <inertia ixx="0.0" ixy="0.0" ixz="0.0" iyy="0.0" iyz="0.0" izz="0.0" />
        </inertial>
    </link>
    <gazebo reference="box_43">
        <material>Gazebo/Orange</material>
    </gazebo>
    <joint name="box_43" type="fixed">
        <parent link="rack_t1_upper" />
        <child link="box_43" />
        <axis xyz="0 0 1" />
        <origin rpy="0 0 0" xyz="0.43 0 0" />
    </joint>
    <link name="box_43_frontside">
        <!-- w is in x, l is in y, h is in z -->
        <visual>
            <origin rpy="0 0 0" xyz="0.1675 0.0085 0.045" />
            <geometry>
                <box size="0.335 0.017 0.09" />
            </geometry>
            <material name="orange">
                <color rgba="1 0.5088 0.0468 1" />
            </material>
        </visual>
        <collision>
            <origin rpy="0 0 0" xyz="0.1675 0.0085 0.045" />
            <geometry>
                <box size="0.335 0.017 0.09" />
            </geometry>
        </collision>
        <!-- This is required for Gazebo. -->
        <inertial>
            <mass value="1.0" />
            <origin rpy="0 0 0" xyz="0.1675 0.017 0.045" />
            <inertia ixx="0.0" ixy="0.0" ixz="0.0" iyy="0.0" iyz="0.0" izz="0.0" />
        </inertial>
    </link>
    <gazebo reference="box_43_frontside">
        <material>Gazebo/Orange</material>
    </gazebo>
    <joint name="box_43_frontside" type="fixed">
        <parent link="box_43" />
        <child link="box_43_frontside" />
        <axis xyz="0 0 1" />
        <origin rpy="0 0 0" xyz="0 0 0.013" />
    </joint>
    <link name="box_43_backside">
        <!-- w is in x, l is in y, h is in z -->
        <visual>
            <origin rpy="0 0 0" xyz="0.1675 0.0085 0.045" />
            <geometry>
                <box size="0.335 0.017 0.09" />
            </geometry>
            <material name="orange">
                <color rgba="1 0.5088 0.0468 1" />
            </material>
        </visual>
        <collision>
            <origin rpy="0 0 0" xyz="0.1675 0.0085 0.045" />
            <geometry>
                <box size="0.335 0.017 0.09" />
            </geometry>
        </collision>
        <!-- This is required for Gazebo. -->
        <inertial>
            <mass value="1.0" />
            <origin rpy="0 0 0" xyz="0.1675 0.017 0.045" />
            <inertia ixx="0.0" ixy="0.0" ixz="0.0" iyy="0.0" iyz="0.0" izz="0.0" />
        </inertial>
    </link>
    <gazebo reference="box_43_backside">
        <material>Gazebo/Orange</material>
    </gazebo>
    <joint name="box_43_backside" type="fixed">
        <parent link="box_43" />
        <child link="box_43_backside" />
        <axis xyz="0 0 1" />
        <origin rpy="0 0 0" xyz="0 0.318 0.013" />
    </joint>
    <link name="box_43_leftside">
        <!-- w is in x, l is in y, h is in z -->
        <visual>
            <origin rpy="0 0 0" xyz="0.0085 0.15050000000000002 0.045" />
            <geometry>
                <box size="0.017 0.30100000000000005 0.09" />
            </geometry>
            <material name="orange">
                <color rgba="1 0.5088 0.0468 1" />
            </material>
        </visual>
        <collision>
            <origin rpy="0 0 0" xyz="0.0085 0.15050000000000002 0.045" />
            <geometry>
                <box size="0.017 0.30100000000000005 0.09" />
            </geometry>
        </collision>
        <!-- This is required for Gazebo. -->
        <inertial>
            <mass value="1.0" />
            <origin rpy="0 0 0" xyz="0.0085 0.30100000000000005 0.045" />
            <inertia ixx="0.0" ixy="0.0" ixz="0.0" iyy="0.0" iyz="0.0" izz="0.0" />
        </inertial>
    </link>
    <gazebo reference="box_43_leftside">
        <material>Gazebo/Orange</material>
    </gazebo>
    <joint name="box_43_leftside" type="fixed">
        <parent link="box_43" />
        <child link="box_43_leftside" />
        <axis xyz="0 0 1" />
        <origin rpy="0 0 0" xyz="0 0.017  0.013" />
    </joint>
    <link name="box_43_rightside">
        <!-- w is in x, l is in y, h is in z -->
        <visual>
            <origin rpy="0 0 0" xyz="0.0085 0.15050000000000002 0.045" />
            <geometry>
                <box size="0.017 0.30100000000000005 0.09" />
            </geometry>
            <material name="orange">
                <color rgba="1 0.5088 0.0468 1" />
            </material>
        </visual>
        <collision>
            <origin rpy="0 0 0" xyz="0.0085 0.15050000000000002 0.045" />
            <geometry>
                <box size="0.017 0.30100000000000005 0.09" />
            </geometry>
        </collision>
        <!-- This is required for Gazebo. -->
        <inertial>
            <mass value="1.0" />
            <origin rpy="0 0 0" xyz="0.0085 0.30100000000000005 0.045" />
            <inertia ixx="0.0" ixy="0.0" ixz="0.0" iyy="0.0" iyz="0.0" izz="0.0" />
        </inertial>
    </link>
    <gazebo reference="box_43_rightside">
        <material>Gazebo/Orange</material>
    </gazebo>
    <joint name="box_43_rightside" type="fixed">
        <parent link="box_43" />
        <child link="box_43_rightside" />
        <axis xyz="0 0 1" />
        <origin rpy="0 0 0" xyz="0.318      0.017      0.013" />
    </joint>
    <link name="box_43_bottom" />
    <joint name="box_43_bottom_joint" type="fixed">
        <parent link="box_43" />
        <child link="box_43_bottom" />
        <origin rpy="0 0 0" xyz="0.017 0.017 0.013" />
    </joint>
    <link name="box_43_center_bottom" />
    <joint name="box_43_center_bottom_joint" type="fixed">
        <parent link="box_43" />
        <child link="box_43_center_bottom" />
        <origin rpy="0 0 0" xyz="0.1675 0.1675 0.013" />
    </joint>
    <link name="box_43_lower_left_top" />
    <joint name="box_43_lower_left_top_joint" type="fixed">
        <parent link="box_43" />
        <child link="box_43_lower_left_top" />
        <origin rpy="0 0 0" xyz="0 0 0.103" />
    </joint>
    <link name="box_43_lower_right_top" />
    <joint name="box_43_lower_right_top_joint" type="fixed">
        <parent link="box_43" />
        <child link="box_43_lower_right_top" />
        <origin rpy="0 0 0" xyz="0.335 0 0.103" />
    </joint>
    <link name="box_43_upper_left_top" />
    <joint name="box_43_upper_left_top_joint" type="fixed">
        <parent link="box_43" />
        <child link="box_43_upper_left_top" />
        <origin rpy="0 0 0" xyz="0 0.335 0.103" />
    </joint>
    <link name="box_43_upper_right_top" />
    <joint name="box_43_upper_right_top_joint" type="fixed">
        <parent link="box_43" />
        <child link="box_43_upper_right_top" />
        <origin rpy="0 0 0" xyz="0.335 0.335 0.103" />
    </joint>
    <link name="box_43_center_top" />
    <joint name="box_43_center_top_joint" type="fixed">
        <parent link="box_43" />
        <child link="box_43_center_top" />
        <origin rpy="0 0 0" xyz="0.1675 0.1675 0.133" />
    </joint>
    <link name="box_3">
        <!-- w is in x, l is in y, h is in z -->
        <visual>
            <origin rpy="0 0 0" xyz="0.1675 0.1675 0.0065" />
            <geometry>
                <box size="0.335 0.335 0.013" />
            </geometry>
            <material name="orange">
                <color rgba="1 0.5088 0.0468 1" />
            </material>
        </visual>
        <collision>
            <origin rpy="0 0 0" xyz="0.1675 0.1675 0.0065" />
            <geometry>
                <box size="0.335 0.335 0.013" />
            </geometry>
        </collision>
        <!-- This is required for Gazebo. -->
        <inertial>
            <mass value="1.0" />
            <origin rpy="0 0 0" xyz="0.1675 0.335 0.0065" />
            <inertia ixx="0.0" ixy="0.0" ixz="0.0" iyy="0.0" iyz="0.0" izz="0.0" />
        </inertial>
    </link>
    <gazebo reference="box_3">
        <material>Gazebo/Orange</material>
    </gazebo>
    <joint name="box_3" type="fixed">
        <parent link="rack_t1_lower" />
        <child link="box_3" />
        <axis xyz="0 0 1" />
        <origin rpy="0 0 0" xyz="0.08499999999999996 0 0" />
    </joint>
    <link name="box_3_frontside">
        <!-- w is in x, l is in y, h is in z -->
        <visual>
            <origin rpy="0 0 0" xyz="0.1675 0.0085 0.045" />
            <geometry>
                <box size="0.335 0.017 0.09" />
            </geometry>
            <material name="orange">
                <color rgba="1 0.5088 0.0468 1" />
            </material>
        </visual>
        <collision>
            <origin rpy="0 0 0" xyz="0.1675 0.0085 0.045" />
            <geometry>
                <box size="0.335 0.017 0.09" />
            </geometry>
        </collision>
        <!-- This is required for Gazebo. -->
        <inertial>
            <mass value="1.0" />
            <origin rpy="0 0 0" xyz="0.1675 0.017 0.045" />
            <inertia ixx="0.0" ixy="0.0" ixz="0.0" iyy="0.0" iyz="0.0" izz="0.0" />
        </inertial>
    </link>
    <gazebo reference="box_3_frontside">
        <material>Gazebo/Orange</material>
    </gazebo>
    <joint name="box_3_frontside" type="fixed">
        <parent link="box_3" />
        <child link="box_3_frontside" />
        <axis xyz="0 0 1" />
        <origin rpy="0 0 0" xyz="0 0 0.013" />
    </joint>
    <link name="box_3_backside">
        <!-- w is in x, l is in y, h is in z -->
        <visual>
            <origin rpy="0 0 0" xyz="0.1675 0.0085 0.045" />
            <geometry>
                <box size="0.335 0.017 0.09" />
            </geometry>
            <material name="orange">
                <color rgba="1 0.5088 0.0468 1" />
            </material>
        </visual>
        <collision>
            <origin rpy="0 0 0" xyz="0.1675 0.0085 0.045" />
            <geometry>
                <box size="0.335 0.017 0.09" />
            </geometry>
        </collision>
        <!-- This is required for Gazebo. -->
        <inertial>
            <mass value="1.0" />
            <origin rpy="0 0 0" xyz="0.1675 0.017 0.045" />
            <inertia ixx="0.0" ixy="0.0" ixz="0.0" iyy="0.0" iyz="0.0" izz="0.0" />
        </inertial>
    </link>
    <gazebo reference="box_3_backside">
        <material>Gazebo/Orange</material>
    </gazebo>
    <joint name="box_3_backside" type="fixed">
        <parent link="box_3" />
        <child link="box_3_backside" />
        <axis xyz="0 0 1" />
        <origin rpy="0 0 0" xyz="0 0.318 0.013" />
    </joint>
    <link name="box_3_leftside">
        <!-- w is in x, l is in y, h is in z -->
        <visual>
            <origin rpy="0 0 0" xyz="0.0085 0.15050000000000002 0.045" />
            <geometry>
                <box size="0.017 0.30100000000000005 0.09" />
            </geometry>
            <material name="orange">
                <color rgba="1 0.5088 0.0468 1" />
            </material>
        </visual>
        <collision>
            <origin rpy="0 0 0" xyz="0.0085 0.15050000000000002 0.045" />
            <geometry>
                <box size="0.017 0.30100000000000005 0.09" />
            </geometry>
        </collision>
        <!-- This is required for Gazebo. -->
        <inertial>
            <mass value="1.0" />
            <origin rpy="0 0 0" xyz="0.0085 0.30100000000000005 0.045" />
            <inertia ixx="0.0" ixy="0.0" ixz="0.0" iyy="0.0" iyz="0.0" izz="0.0" />
        </inertial>
    </link>
    <gazebo reference="box_3_leftside">
        <material>Gazebo/Orange</material>
    </gazebo>
    <joint name="box_3_leftside" type="fixed">
        <parent link="box_3" />
        <child link="box_3_leftside" />
        <axis xyz="0 0 1" />
        <origin rpy="0 0 0" xyz="0 0.017  0.013" />
    </joint>
    <link name="box_3_rightside">
        <!-- w is in x, l is in y, h is in z -->
        <visual>
            <origin rpy="0 0 0" xyz="0.0085 0.15050000000000002 0.045" />
            <geometry>
                <box size="0.017 0.30100000000000005 0.09" />
            </geometry>
            <material name="orange">
                <color rgba="1 0.5088 0.0468 1" />
            </material>
        </visual>
        <collision>
            <origin rpy="0 0 0" xyz="0.0085 0.15050000000000002 0.045" />
            <geometry>
                <box size="0.017 0.30100000000000005 0.09" />
            </geometry>
        </collision>
        <!-- This is required for Gazebo. -->
        <inertial>
            <mass value="1.0" />
            <origin rpy="0 0 0" xyz="0.0085 0.30100000000000005 0.045" />
            <inertia ixx="0.0" ixy="0.0" ixz="0.0" iyy="0.0" iyz="0.0" izz="0.0" />
        </inertial>
    </link>
    <gazebo reference="box_3_rightside">
        <material>Gazebo/Orange</material>
    </gazebo>
    <joint name="box_3_rightside" type="fixed">
        <parent link="box_3" />
        <child link="box_3_rightside" />
        <axis xyz="0 0 1" />
        <origin rpy="0 0 0" xyz="0.318      0.017      0.013" />
    </joint>
    <link name="box_3_bottom" />
    <joint name="box_3_bottom_joint" type="fixed">
        <parent link="box_3" />
        <child link="box_3_bottom" />
        <origin rpy="0 0 0" xyz="0.017 0.017 0.013" />
    </joint>
    <link name="box_3_center_bottom" />
    <joint name="box_3_center_bottom_joint" type="fixed">
        <parent link="box_3" />
        <child link="box_3_center_bottom" />
        <origin rpy="0 0 0" xyz="0.1675 0.1675 0.013" />
    </joint>
    <link name="box_3_lower_left_top" />
    <joint name="box_3_lower_left_top_joint" type="fixed">
        <parent link="box_3" />
        <child link="box_3_lower_left_top" />
        <origin rpy="0 0 0" xyz="0 0 0.103" />
    </joint>
    <link name="box_3_lower_right_top" />
    <joint name="box_3_lower_right_top_joint" type="fixed">
        <parent link="box_3" />
        <child link="box_3_lower_right_top" />
        <origin rpy="0 0 0" xyz="0.335 0 0.103" />
    </joint>
    <link name="box_3_upper_left_top" />
    <joint name="box_3_upper_left_top_joint" type="fixed">
        <parent link="box_3" />
        <child link="box_3_upper_left_top" />
        <origin rpy="0 0 0" xyz="0 0.335 0.103" />
    </joint>
    <link name="box_3_upper_right_top" />
    <joint name="box_3_upper_right_top_joint" type="fixed">
        <parent link="box_3" />
        <child link="box_3_upper_right_top" />
        <origin rpy="0 0 0" xyz="0.335 0.335 0.103" />
    </joint>
    <link name="box_3_center_top" />
    <joint name="box_3_center_top_joint" type="fixed">
        <parent link="box_3" />
        <child link="box_3_center_top" />
        <origin rpy="0 0 0" xyz="0.1675 0.1675 0.133" />
    </joint>
    <link name="box_4">
        <!-- w is in x, l is in y, h is in z -->
        <visual>
            <origin rpy="0 0 0" xyz="0.1675 0.1675 0.0065" />
            <geometry>
                <box size="0.335 0.335 0.013" />
            </geometry>
            <material name="orange">
                <color rgba="1 0.5088 0.0468 1" />
            </material>
        </visual>
        <collision>
            <origin rpy="0 0 0" xyz="0.1675 0.1675 0.0065" />
            <geometry>
                <box size="0.335 0.335 0.013" />
            </geometry>
        </collision>
        <!-- This is required for Gazebo. -->
        <inertial>
            <mass value="1.0" />
            <origin rpy="0 0 0" xyz="0.1675 0.335 0.0065" />
            <inertia ixx="0.0" ixy="0.0" ixz="0.0" iyy="0.0" iyz="0.0" izz="0.0" />
        </inertial>
    </link>
    <gazebo reference="box_4">
        <material>Gazebo/Orange</material>
    </gazebo>
    <joint name="box_4" type="fixed">
        <parent link="rack_t1_lower" />
        <child link="box_4" />
        <axis xyz="0 0 1" />
        <origin rpy="0 0 0" xyz="0.43 0 0" />
    </joint>
    <link name="box_4_frontside">
        <!-- w is in x, l is in y, h is in z -->
        <visual>
            <origin rpy="0 0 0" xyz="0.1675 0.0085 0.045" />
            <geometry>
                <box size="0.335 0.017 0.09" />
            </geometry>
            <material name="orange">
                <color rgba="1 0.5088 0.0468 1" />
            </material>
        </visual>
        <collision>
            <origin rpy="0 0 0" xyz="0.1675 0.0085 0.045" />
            <geometry>
                <box size="0.335 0.017 0.09" />
            </geometry>
        </collision>
        <!-- This is required for Gazebo. -->
        <inertial>
            <mass value="1.0" />
            <origin rpy="0 0 0" xyz="0.1675 0.017 0.045" />
            <inertia ixx="0.0" ixy="0.0" ixz="0.0" iyy="0.0" iyz="0.0" izz="0.0" />
        </inertial>
    </link>
    <gazebo reference="box_4_frontside">
        <material>Gazebo/Orange</material>
    </gazebo>
    <joint name="box_4_frontside" type="fixed">
        <parent link="box_4" />
        <child link="box_4_frontside" />
        <axis xyz="0 0 1" />
        <origin rpy="0 0 0" xyz="0 0 0.013" />
    </joint>
    <link name="box_4_backside">
        <!-- w is in x, l is in y, h is in z -->
        <visual>
            <origin rpy="0 0 0" xyz="0.1675 0.0085 0.045" />
            <geometry>
                <box size="0.335 0.017 0.09" />
            </geometry>
            <material name="orange">
                <color rgba="1 0.5088 0.0468 1" />
            </material>
        </visual>
        <collision>
            <origin rpy="0 0 0" xyz="0.1675 0.0085 0.045" />
            <geometry>
                <box size="0.335 0.017 0.09" />
            </geometry>
        </collision>
        <!-- This is required for Gazebo. -->
        <inertial>
            <mass value="1.0" />
            <origin rpy="0 0 0" xyz="0.1675 0.017 0.045" />
            <inertia ixx="0.0" ixy="0.0" ixz="0.0" iyy="0.0" iyz="0.0" izz="0.0" />
        </inertial>
    </link>
    <gazebo reference="box_4_backside">
        <material>Gazebo/Orange</material>
    </gazebo>
    <joint name="box_4_backside" type="fixed">
        <parent link="box_4" />
        <child link="box_4_backside" />
        <axis xyz="0 0 1" />
        <origin rpy="0 0 0" xyz="0 0.318 0.013" />
    </joint>
    <link name="box_4_leftside">
        <!-- w is in x, l is in y, h is in z -->
        <visual>
            <origin rpy="0 0 0" xyz="0.0085 0.15050000000000002 0.045" />
            <geometry>
                <box size="0.017 0.30100000000000005 0.09" />
            </geometry>
            <material name="orange">
                <color rgba="1 0.5088 0.0468 1" />
            </material>
        </visual>
        <collision>
            <origin rpy="0 0 0" xyz="0.0085 0.15050000000000002 0.045" />
            <geometry>
                <box size="0.017 0.30100000000000005 0.09" />
            </geometry>
        </collision>
        <!-- This is required for Gazebo. -->
        <inertial>
            <mass value="1.0" />
            <origin rpy="0 0 0" xyz="0.0085 0.30100000000000005 0.045" />
            <inertia ixx="0.0" ixy="0.0" ixz="0.0" iyy="0.0" iyz="0.0" izz="0.0" />
        </inertial>
    </link>
    <gazebo reference="box_4_leftside">
        <material>Gazebo/Orange</material>
    </gazebo>
    <joint name="box_4_leftside" type="fixed">
        <parent link="box_4" />
        <child link="box_4_leftside" />
        <axis xyz="0 0 1" />
        <origin rpy="0 0 0" xyz="0 0.017  0.013" />
    </joint>
    <link name="box_4_rightside">
        <!-- w is in x, l is in y, h is in z -->
        <visual>
            <origin rpy="0 0 0" xyz="0.0085 0.15050000000000002 0.045" />
            <geometry>
                <box size="0.017 0.30100000000000005 0.09" />
            </geometry>
            <material name="orange">
                <color rgba="1 0.5088 0.0468 1" />
            </material>
        </visual>
        <collision>
            <origin rpy="0 0 0" xyz="0.0085 0.15050000000000002 0.045" />
            <geometry>
                <box size="0.017 0.30100000000000005 0.09" />
            </geometry>
        </collision>
        <!-- This is required for Gazebo. -->
        <inertial>
            <mass value="1.0" />
            <origin rpy="0 0 0" xyz="0.0085 0.30100000000000005 0.045" />
            <inertia ixx="0.0" ixy="0.0" ixz="0.0" iyy="0.0" iyz="0.0" izz="0.0" />
        </inertial>
    </link>
    <gazebo reference="box_4_rightside">
        <material>Gazebo/Orange</material>
    </gazebo>
    <joint name="box_4_rightside" type="fixed">
        <parent link="box_4" />
        <child link="box_4_rightside" />
        <axis xyz="0 0 1" />
        <origin rpy="0 0 0" xyz="0.318      0.017      0.013" />
    </joint>
    <link name="box_4_bottom" />
    <joint name="box_4_bottom_joint" type="fixed">
        <parent link="box_4" />
        <child link="box_4_bottom" />
        <origin rpy="0 0 0" xyz="0.017 0.017 0.013" />
    </joint>
    <link name="box_4_center_bottom" />
    <joint name="box_4_center_bottom_joint" type="fixed">
        <parent link="box_4" />
        <child link="box_4_center_bottom" />
        <origin rpy="0 0 0" xyz="0.1675 0.1675 0.013" />
    </joint>
    <link name="box_4_lower_left_top" />
    <joint name="box_4_lower_left_top_joint" type="fixed">
        <parent link="box_4" />
        <child link="box_4_lower_left_top" />
        <origin rpy="0 0 0" xyz="0 0 0.103" />
    </joint>
    <link name="box_4_lower_right_top" />
    <joint name="box_4_lower_right_top_joint" type="fixed">
        <parent link="box_4" />
        <child link="box_4_lower_right_top" />
        <origin rpy="0 0 0" xyz="0.335 0 0.103" />
    </joint>
    <link name="box_4_upper_left_top" />
    <joint name="box_4_upper_left_top_joint" type="fixed">
        <parent link="box_4" />
        <child link="box_4_upper_left_top" />
        <origin rpy="0 0 0" xyz="0 0.335 0.103" />
    </joint>
    <link name="box_4_upper_right_top" />
    <joint name="box_4_upper_right_top_joint" type="fixed">
        <parent link="box_4" />
        <child link="box_4_upper_right_top" />
        <origin rpy="0 0 0" xyz="0.335 0.335 0.103" />
    </joint>
    <link name="box_4_center_top" />
    <joint name="box_4_center_top_joint" type="fixed">
        <parent link="box_4" />
        <child link="box_4_center_top" />
        <origin rpy="0 0 0" xyz="0.1675 0.1675 0.133" />
    </joint>
    <link name="box_22">
        <!-- w is in x, l is in y, h is in z -->
        <visual>
            <origin rpy="0 0 0" xyz="0.1675 0.1675 0.0065" />
            <geometry>
                <box size="0.335 0.335 0.013" />
            </geometry>
            <material name="orange">
                <color rgba="1 0.5088 0.0468 1" />
            </material>
        </visual>
        <collision>
            <origin rpy="0 0 0" xyz="0.1675 0.1675 0.0065" />
            <geometry>
                <box size="0.335 0.335 0.013" />
            </geometry>
        </collision>
        <!-- This is required for Gazebo. -->
        <inertial>
            <mass value="1.0" />
            <origin rpy="0 0 0" xyz="0.1675 0.335 0.0065" />
            <inertia ixx="0.0" ixy="0.0" ixz="0.0" iyy="0.0" iyz="0.0" izz="0.0" />
        </inertial>
    </link>
    <gazebo reference="box_22">
        <material>Gazebo/Orange</material>
    </gazebo>
    <joint name="box_22" type="fixed">
        <parent link="rack_t0_upper" />
        <child link="box_22" />
        <axis xyz="0 0 1" />
        <origin rpy="0 0 0" xyz="0.08499999999999996 0 0" />
    </joint>
    <link name="box_22_frontside">
        <!-- w is in x, l is in y, h is in z -->
        <visual>
            <origin rpy="0 0 0" xyz="0.1675 0.0085 0.091" />
            <geometry>
                <box size="0.335 0.017 0.182" />
            </geometry>
            <material name="orange">
                <color rgba="1 0.5088 0.0468 1" />
            </material>
        </visual>
        <collision>
            <origin rpy="0 0 0" xyz="0.1675 0.0085 0.091" />
            <geometry>
                <box size="0.335 0.017 0.182" />
            </geometry>
        </collision>
        <!-- This is required for Gazebo. -->
        <inertial>
            <mass value="1.0" />
            <origin rpy="0 0 0" xyz="0.1675 0.017 0.091" />
            <inertia ixx="0.0" ixy="0.0" ixz="0.0" iyy="0.0" iyz="0.0" izz="0.0" />
        </inertial>
    </link>
    <gazebo reference="box_22_frontside">
        <material>Gazebo/Orange</material>
    </gazebo>
    <joint name="box_22_frontside" type="fixed">
        <parent link="box_22" />
        <child link="box_22_frontside" />
        <axis xyz="0 0 1" />
        <origin rpy="0 0 0" xyz="0 0 0.013" />
    </joint>
    <link name="box_22_backside">
        <!-- w is in x, l is in y, h is in z -->
        <visual>
            <origin rpy="0 0 0" xyz="0.1675 0.0085 0.091" />
            <geometry>
                <box size="0.335 0.017 0.182" />
            </geometry>
            <material name="orange">
                <color rgba="1 0.5088 0.0468 1" />
            </material>
        </visual>
        <collision>
            <origin rpy="0 0 0" xyz="0.1675 0.0085 0.091" />
            <geometry>
                <box size="0.335 0.017 0.182" />
            </geometry>
        </collision>
        <!-- This is required for Gazebo. -->
        <inertial>
            <mass value="1.0" />
            <origin rpy="0 0 0" xyz="0.1675 0.017 0.091" />
            <inertia ixx="0.0" ixy="0.0" ixz="0.0" iyy="0.0" iyz="0.0" izz="0.0" />
        </inertial>
    </link>
    <gazebo reference="box_22_backside">
        <material>Gazebo/Orange</material>
    </gazebo>
    <joint name="box_22_backside" type="fixed">
        <parent link="box_22" />
        <child link="box_22_backside" />
        <axis xyz="0 0 1" />
        <origin rpy="0 0 0" xyz="0 0.318 0.013" />
    </joint>
    <link name="box_22_leftside">
        <!-- w is in x, l is in y, h is in z -->
        <visual>
            <origin rpy="0 0 0" xyz="0.0085 0.15050000000000002 0.091" />
            <geometry>
                <box size="0.017 0.30100000000000005 0.182" />
            </geometry>
            <material name="orange">
                <color rgba="1 0.5088 0.0468 1" />
            </material>
        </visual>
        <collision>
            <origin rpy="0 0 0" xyz="0.0085 0.15050000000000002 0.091" />
            <geometry>
                <box size="0.017 0.30100000000000005 0.182" />
            </geometry>
        </collision>
        <!-- This is required for Gazebo. -->
        <inertial>
            <mass value="1.0" />
            <origin rpy="0 0 0" xyz="0.0085 0.30100000000000005 0.091" />
            <inertia ixx="0.0" ixy="0.0" ixz="0.0" iyy="0.0" iyz="0.0" izz="0.0" />
        </inertial>
    </link>
    <gazebo reference="box_22_leftside">
        <material>Gazebo/Orange</material>
    </gazebo>
    <joint name="box_22_leftside" type="fixed">
        <parent link="box_22" />
        <child link="box_22_leftside" />
        <axis xyz="0 0 1" />
        <origin rpy="0 0 0" xyz="0 0.017  0.013" />
    </joint>
    <link name="box_22_rightside">
        <!-- w is in x, l is in y, h is in z -->
        <visual>
            <origin rpy="0 0 0" xyz="0.0085 0.15050000000000002 0.091" />
            <geometry>
                <box size="0.017 0.30100000000000005 0.182" />
            </geometry>
            <material name="orange">
                <color rgba="1 0.5088 0.0468 1" />
            </material>
        </visual>
        <collision>
            <origin rpy="0 0 0" xyz="0.0085 0.15050000000000002 0.091" />
            <geometry>
                <box size="0.017 0.30100000000000005 0.182" />
            </geometry>
        </collision>
        <!-- This is required for Gazebo. -->
        <inertial>
            <mass value="1.0" />
            <origin rpy="0 0 0" xyz="0.0085 0.30100000000000005 0.091" />
            <inertia ixx="0.0" ixy="0.0" ixz="0.0" iyy="0.0" iyz="0.0" izz="0.0" />
        </inertial>
    </link>
    <gazebo reference="box_22_rightside">
        <material>Gazebo/Orange</material>
    </gazebo>
    <joint name="box_22_rightside" type="fixed">
        <parent link="box_22" />
        <child link="box_22_rightside" />
        <axis xyz="0 0 1" />
        <origin rpy="0 0 0" xyz="0.318      0.017      0.013" />
    </joint>
    <link name="box_22_bottom" />
    <joint name="box_22_bottom_joint" type="fixed">
        <parent link="box_22" />
        <child link="box_22_bottom" />
        <origin rpy="0 0 0" xyz="0.017 0.017 0.013" />
    </joint>
    <link name="box_22_center_bottom" />
    <joint name="box_22_center_bottom_joint" type="fixed">
        <parent link="box_22" />
        <child link="box_22_center_bottom" />
        <origin rpy="0 0 0" xyz="0.1675 0.1675 0.013" />
    </joint>
    <link name="box_22_lower_left_top" />
    <joint name="box_22_lower_left_top_joint" type="fixed">
        <parent link="box_22" />
        <child link="box_22_lower_left_top" />
        <origin rpy="0 0 0" xyz="0 0 0.195" />
    </joint>
    <link name="box_22_lower_right_top" />
    <joint name="box_22_lower_right_top_joint" type="fixed">
        <parent link="box_22" />
        <child link="box_22_lower_right_top" />
        <origin rpy="0 0 0" xyz="0.335 0 0.195" />
    </joint>
    <link name="box_22_upper_left_top" />
    <joint name="box_22_upper_left_top_joint" type="fixed">
        <parent link="box_22" />
        <child link="box_22_upper_left_top" />
        <origin rpy="0 0 0" xyz="0 0.335 0.195" />
    </joint>
    <link name="box_22_upper_right_top" />
    <joint name="box_22_upper_right_top_joint" type="fixed">
        <parent link="box_22" />
        <child link="box_22_upper_right_top" />
        <origin rpy="0 0 0" xyz="0.335 0.335 0.195" />
    </joint>
    <link name="box_22_center_top" />
    <joint name="box_22_center_top_joint" type="fixed">
        <parent link="box_22" />
        <child link="box_22_center_top" />
        <origin rpy="0 0 0" xyz="0.1675 0.1675 0.225" />
    </joint>
    <link name="box_8">
        <!-- w is in x, l is in y, h is in z -->
        <visual>
            <origin rpy="0 0 0" xyz="0.1675 0.1675 0.0065" />
            <geometry>
                <box size="0.335 0.335 0.013" />
            </geometry>
            <material name="orange">
                <color rgba="1 0.5088 0.0468 1" />
            </material>
        </visual>
        <collision>
            <origin rpy="0 0 0" xyz="0.1675 0.1675 0.0065" />
            <geometry>
                <box size="0.335 0.335 0.013" />
            </geometry>
        </collision>
        <!-- This is required for Gazebo. -->
        <inertial>
            <mass value="1.0" />
            <origin rpy="0 0 0" xyz="0.1675 0.335 0.0065" />
            <inertia ixx="0.0" ixy="0.0" ixz="0.0" iyy="0.0" iyz="0.0" izz="0.0" />
        </inertial>
    </link>
    <gazebo reference="box_8">
        <material>Gazebo/Orange</material>
    </gazebo>
    <joint name="box_8" type="fixed">
        <parent link="rack_t0_upper" />
        <child link="box_8" />
        <axis xyz="0 0 1" />
        <origin rpy="0 0 0" xyz="0.43 0 0" />
    </joint>
    <link name="box_8_frontside">
        <!-- w is in x, l is in y, h is in z -->
        <visual>
            <origin rpy="0 0 0" xyz="0.1675 0.0085 0.045" />
            <geometry>
                <box size="0.335 0.017 0.09" />
            </geometry>
            <material name="orange">
                <color rgba="1 0.5088 0.0468 1" />
            </material>
        </visual>
        <collision>
            <origin rpy="0 0 0" xyz="0.1675 0.0085 0.045" />
            <geometry>
                <box size="0.335 0.017 0.09" />
            </geometry>
        </collision>
        <!-- This is required for Gazebo. -->
        <inertial>
            <mass value="1.0" />
            <origin rpy="0 0 0" xyz="0.1675 0.017 0.045" />
            <inertia ixx="0.0" ixy="0.0" ixz="0.0" iyy="0.0" iyz="0.0" izz="0.0" />
        </inertial>
    </link>
    <gazebo reference="box_8_frontside">
        <material>Gazebo/Orange</material>
    </gazebo>
    <joint name="box_8_frontside" type="fixed">
        <parent link="box_8" />
        <child link="box_8_frontside" />
        <axis xyz="0 0 1" />
        <origin rpy="0 0 0" xyz="0 0 0.013" />
    </joint>
    <link name="box_8_backside">
        <!-- w is in x, l is in y, h is in z -->
        <visual>
            <origin rpy="0 0 0" xyz="0.1675 0.0085 0.045" />
            <geometry>
                <box size="0.335 0.017 0.09" />
            </geometry>
            <material name="orange">
                <color rgba="1 0.5088 0.0468 1" />
            </material>
        </visual>
        <collision>
            <origin rpy="0 0 0" xyz="0.1675 0.0085 0.045" />
            <geometry>
                <box size="0.335 0.017 0.09" />
            </geometry>
        </collision>
        <!-- This is required for Gazebo. -->
        <inertial>
            <mass value="1.0" />
            <origin rpy="0 0 0" xyz="0.1675 0.017 0.045" />
            <inertia ixx="0.0" ixy="0.0" ixz="0.0" iyy="0.0" iyz="0.0" izz="0.0" />
        </inertial>
    </link>
    <gazebo reference="box_8_backside">
        <material>Gazebo/Orange</material>
    </gazebo>
    <joint name="box_8_backside" type="fixed">
        <parent link="box_8" />
        <child link="box_8_backside" />
        <axis xyz="0 0 1" />
        <origin rpy="0 0 0" xyz="0 0.318 0.013" />
    </joint>
    <link name="box_8_leftside">
        <!-- w is in x, l is in y, h is in z -->
        <visual>
            <origin rpy="0 0 0" xyz="0.0085 0.15050000000000002 0.045" />
            <geometry>
                <box size="0.017 0.30100000000000005 0.09" />
            </geometry>
            <material name="orange">
                <color rgba="1 0.5088 0.0468 1" />
            </material>
        </visual>
        <collision>
            <origin rpy="0 0 0" xyz="0.0085 0.15050000000000002 0.045" />
            <geometry>
                <box size="0.017 0.30100000000000005 0.09" />
            </geometry>
        </collision>
        <!-- This is required for Gazebo. -->
        <inertial>
            <mass value="1.0" />
            <origin rpy="0 0 0" xyz="0.0085 0.30100000000000005 0.045" />
            <inertia ixx="0.0" ixy="0.0" ixz="0.0" iyy="0.0" iyz="0.0" izz="0.0" />
        </inertial>
    </link>
    <gazebo reference="box_8_leftside">
        <material>Gazebo/Orange</material>
    </gazebo>
    <joint name="box_8_leftside" type="fixed">
        <parent link="box_8" />
        <child link="box_8_leftside" />
        <axis xyz="0 0 1" />
        <origin rpy="0 0 0" xyz="0 0.017  0.013" />
    </joint>
    <link name="box_8_rightside">
        <!-- w is in x, l is in y, h is in z -->
        <visual>
            <origin rpy="0 0 0" xyz="0.0085 0.15050000000000002 0.045" />
            <geometry>
                <box size="0.017 0.30100000000000005 0.09" />
            </geometry>
            <material name="orange">
                <color rgba="1 0.5088 0.0468 1" />
            </material>
        </visual>
        <collision>
            <origin rpy="0 0 0" xyz="0.0085 0.15050000000000002 0.045" />
            <geometry>
                <box size="0.017 0.30100000000000005 0.09" />
            </geometry>
        </collision>
        <!-- This is required for Gazebo. -->
        <inertial>
            <mass value="1.0" />
            <origin rpy="0 0 0" xyz="0.0085 0.30100000000000005 0.045" />
            <inertia ixx="0.0" ixy="0.0" ixz="0.0" iyy="0.0" iyz="0.0" izz="0.0" />
        </inertial>
    </link>
    <gazebo reference="box_8_rightside">
        <material>Gazebo/Orange</material>
    </gazebo>
    <joint name="box_8_rightside" type="fixed">
        <parent link="box_8" />
        <child link="box_8_rightside" />
        <axis xyz="0 0 1" />
        <origin rpy="0 0 0" xyz="0.318      0.017      0.013" />
    </joint>
    <link name="box_8_bottom" />
    <joint name="box_8_bottom_joint" type="fixed">
        <parent link="box_8" />
        <child link="box_8_bottom" />
        <origin rpy="0 0 0" xyz="0.017 0.017 0.013" />
    </joint>
    <link name="box_8_center_bottom" />
    <joint name="box_8_center_bottom_joint" type="fixed">
        <parent link="box_8" />
        <child link="box_8_center_bottom" />
        <origin rpy="0 0 0" xyz="0.1675 0.1675 0.013" />
    </joint>
    <link name="box_8_lower_left_top" />
    <joint name="box_8_lower_left_top_joint" type="fixed">
        <parent link="box_8" />
        <child link="box_8_lower_left_top" />
        <origin rpy="0 0 0" xyz="0 0 0.103" />
    </joint>
    <link name="box_8_lower_right_top" />
    <joint name="box_8_lower_right_top_joint" type="fixed">
        <parent link="box_8" />
        <child link="box_8_lower_right_top" />
        <origin rpy="0 0 0" xyz="0.335 0 0.103" />
    </joint>
    <link name="box_8_upper_left_top" />
    <joint name="box_8_upper_left_top_joint" type="fixed">
        <parent link="box_8" />
        <child link="box_8_upper_left_top" />
        <origin rpy="0 0 0" xyz="0 0.335 0.103" />
    </joint>
    <link name="box_8_upper_right_top" />
    <joint name="box_8_upper_right_top_joint" type="fixed">
        <parent link="box_8" />
        <child link="box_8_upper_right_top" />
        <origin rpy="0 0 0" xyz="0.335 0.335 0.103" />
    </joint>
    <link name="box_8_center_top" />
    <joint name="box_8_center_top_joint" type="fixed">
        <parent link="box_8" />
        <child link="box_8_center_top" />
        <origin rpy="0 0 0" xyz="0.1675 0.1675 0.133" />
    </joint>
    <link name="box_1">
        <!-- w is in x, l is in y, h is in z -->
        <visual>
            <origin rpy="0 0 0" xyz="0.1675 0.1675 0.0065" />
            <geometry>
                <box size="0.335 0.335 0.013" />
            </geometry>
            <material name="orange">
                <color rgba="1 0.5088 0.0468 1" />
            </material>
        </visual>
        <collision>
            <origin rpy="0 0 0" xyz="0.1675 0.1675 0.0065" />
            <geometry>
                <box size="0.335 0.335 0.013" />
            </geometry>
        </collision>
        <!-- This is required for Gazebo. -->
        <inertial>
            <mass value="1.0" />
            <origin rpy="0 0 0" xyz="0.1675 0.335 0.0065" />
            <inertia ixx="0.0" ixy="0.0" ixz="0.0" iyy="0.0" iyz="0.0" izz="0.0" />
        </inertial>
    </link>
    <gazebo reference="box_1">
        <material>Gazebo/Orange</material>
    </gazebo>
    <joint name="box_1" type="fixed">
        <parent link="rack_t0_lower" />
        <child link="box_1" />
        <axis xyz="0 0 1" />
        <origin rpy="0 0 0" xyz="0.08499999999999996 0 0" />
    </joint>
    <link name="box_1_frontside">
        <!-- w is in x, l is in y, h is in z -->
        <visual>
            <origin rpy="0 0 0" xyz="0.1675 0.0085 0.091" />
            <geometry>
                <box size="0.335 0.017 0.182" />
            </geometry>
            <material name="orange">
                <color rgba="1 0.5088 0.0468 1" />
            </material>
        </visual>
        <collision>
            <origin rpy="0 0 0" xyz="0.1675 0.0085 0.091" />
            <geometry>
                <box size="0.335 0.017 0.182" />
            </geometry>
        </collision>
        <!-- This is required for Gazebo. -->
        <inertial>
            <mass value="1.0" />
            <origin rpy="0 0 0" xyz="0.1675 0.017 0.091" />
            <inertia ixx="0.0" ixy="0.0" ixz="0.0" iyy="0.0" iyz="0.0" izz="0.0" />
        </inertial>
    </link>
    <gazebo reference="box_1_frontside">
        <material>Gazebo/Orange</material>
    </gazebo>
    <joint name="box_1_frontside" type="fixed">
        <parent link="box_1" />
        <child link="box_1_frontside" />
        <axis xyz="0 0 1" />
        <origin rpy="0 0 0" xyz="0 0 0.013" />
    </joint>
    <link name="box_1_backside">
        <!-- w is in x, l is in y, h is in z -->
        <visual>
            <origin rpy="0 0 0" xyz="0.1675 0.0085 0.091" />
            <geometry>
                <box size="0.335 0.017 0.182" />
            </geometry>
            <material name="orange">
                <color rgba="1 0.5088 0.0468 1" />
            </material>
        </visual>
        <collision>
            <origin rpy="0 0 0" xyz="0.1675 0.0085 0.091" />
            <geometry>
                <box size="0.335 0.017 0.182" />
            </geometry>
        </collision>
        <!-- This is required for Gazebo. -->
        <inertial>
            <mass value="1.0" />
            <origin rpy="0 0 0" xyz="0.1675 0.017 0.091" />
            <inertia ixx="0.0" ixy="0.0" ixz="0.0" iyy="0.0" iyz="0.0" izz="0.0" />
        </inertial>
    </link>
    <gazebo reference="box_1_backside">
        <material>Gazebo/Orange</material>
    </gazebo>
    <joint name="box_1_backside" type="fixed">
        <parent link="box_1" />
        <child link="box_1_backside" />
        <axis xyz="0 0 1" />
        <origin rpy="0 0 0" xyz="0 0.318 0.013" />
    </joint>
    <link name="box_1_leftside">
        <!-- w is in x, l is in y, h is in z -->
        <visual>
            <origin rpy="0 0 0" xyz="0.0085 0.15050000000000002 0.091" />
            <geometry>
                <box size="0.017 0.30100000000000005 0.182" />
            </geometry>
            <material name="orange">
                <color rgba="1 0.5088 0.0468 1" />
            </material>
        </visual>
        <collision>
            <origin rpy="0 0 0" xyz="0.0085 0.15050000000000002 0.091" />
            <geometry>
                <box size="0.017 0.30100000000000005 0.182" />
            </geometry>
        </collision>
        <!-- This is required for Gazebo. -->
        <inertial>
            <mass value="1.0" />
            <origin rpy="0 0 0" xyz="0.0085 0.30100000000000005 0.091" />
            <inertia ixx="0.0" ixy="0.0" ixz="0.0" iyy="0.0" iyz="0.0" izz="0.0" />
        </inertial>
    </link>
    <gazebo reference="box_1_leftside">
        <material>Gazebo/Orange</material>
    </gazebo>
    <joint name="box_1_leftside" type="fixed">
        <parent link="box_1" />
        <child link="box_1_leftside" />
        <axis xyz="0 0 1" />
        <origin rpy="0 0 0" xyz="0 0.017  0.013" />
    </joint>
    <link name="box_1_rightside">
        <!-- w is in x, l is in y, h is in z -->
        <visual>
            <origin rpy="0 0 0" xyz="0.0085 0.15050000000000002 0.091" />
            <geometry>
                <box size="0.017 0.30100000000000005 0.182" />
            </geometry>
            <material name="orange">
                <color rgba="1 0.5088 0.0468 1" />
            </material>
        </visual>
        <collision>
            <origin rpy="0 0 0" xyz="0.0085 0.15050000000000002 0.091" />
            <geometry>
                <box size="0.017 0.30100000000000005 0.182" />
            </geometry>
        </collision>
        <!-- This is required for Gazebo. -->
        <inertial>
            <mass value="1.0" />
            <origin rpy="0 0 0" xyz="0.0085 0.30100000000000005 0.091" />
            <inertia ixx="0.0" ixy="0.0" ixz="0.0" iyy="0.0" iyz="0.0" izz="0.0" />
        </inertial>
    </link>
    <gazebo reference="box_1_rightside">
        <material>Gazebo/Orange</material>
    </gazebo>
    <joint name="box_1_rightside" type="fixed">
        <parent link="box_1" />
        <child link="box_1_rightside" />
        <axis xyz="0 0 1" />
        <origin rpy="0 0 0" xyz="0.318      0.017      0.013" />
    </joint>
    <link name="box_1_bottom" />
    <joint name="box_1_bottom_joint" type="fixed">
        <parent link="box_1" />
        <child link="box_1_bottom" />
        <origin rpy="0 0 0" xyz="0.017 0.017 0.013" />
    </joint>
    <link name="box_1_center_bottom" />
    <joint name="box_1_center_bottom_joint" type="fixed">
        <parent link="box_1" />
        <child link="box_1_center_bottom" />
        <origin rpy="0 0 0" xyz="0.1675 0.1675 0.013" />
    </joint>
    <link name="box_1_lower_left_top" />
    <joint name="box_1_lower_left_top_joint" type="fixed">
        <parent link="box_1" />
        <child link="box_1_lower_left_top" />
        <origin rpy="0 0 0" xyz="0 0 0.195" />
    </joint>
    <link name="box_1_lower_right_top" />
    <joint name="box_1_lower_right_top_joint" type="fixed">
        <parent link="box_1" />
        <child link="box_1_lower_right_top" />
        <origin rpy="0 0 0" xyz="0.335 0 0.195" />
    </joint>
    <link name="box_1_upper_left_top" />
    <joint name="box_1_upper_left_top_joint" type="fixed">
        <parent link="box_1" />
        <child link="box_1_upper_left_top" />
        <origin rpy="0 0 0" xyz="0 0.335 0.195" />
    </joint>
    <link name="box_1_upper_right_top" />
    <joint name="box_1_upper_right_top_joint" type="fixed">
        <parent link="box_1" />
        <child link="box_1_upper_right_top" />
        <origin rpy="0 0 0" xyz="0.335 0.335 0.195" />
    </joint>
    <link name="box_1_center_top" />
    <joint name="box_1_center_top_joint" type="fixed">
        <parent link="box_1" />
        <child link="box_1_center_top" />
        <origin rpy="0 0 0" xyz="0.1675 0.1675 0.225" />
    </joint>
    <link name="box_2">
        <!-- w is in x, l is in y, h is in z -->
        <visual>
            <origin rpy="0 0 0" xyz="0.1675 0.1675 0.0065" />
            <geometry>
                <box size="0.335 0.335 0.013" />
            </geometry>
            <material name="orange">
                <color rgba="1 0.5088 0.0468 1" />
            </material>
        </visual>
        <collision>
            <origin rpy="0 0 0" xyz="0.1675 0.1675 0.0065" />
            <geometry>
                <box size="0.335 0.335 0.013" />
            </geometry>
        </collision>
        <!-- This is required for Gazebo. -->
        <inertial>
            <mass value="1.0" />
            <origin rpy="0 0 0" xyz="0.1675 0.335 0.0065" />
            <inertia ixx="0.0" ixy="0.0" ixz="0.0" iyy="0.0" iyz="0.0" izz="0.0" />
        </inertial>
    </link>
    <gazebo reference="box_2">
        <material>Gazebo/Orange</material>
    </gazebo>
    <joint name="box_2" type="fixed">
        <parent link="rack_t0_lower" />
        <child link="box_2" />
        <axis xyz="0 0 1" />
        <origin rpy="0 0 0" xyz="0.43 0 0" />
    </joint>
    <link name="box_2_frontside">
        <!-- w is in x, l is in y, h is in z -->
        <visual>
            <origin rpy="0 0 0" xyz="0.1675 0.0085 0.091" />
            <geometry>
                <box size="0.335 0.017 0.182" />
            </geometry>
            <material name="orange">
                <color rgba="1 0.5088 0.0468 1" />
            </material>
        </visual>
        <collision>
            <origin rpy="0 0 0" xyz="0.1675 0.0085 0.091" />
            <geometry>
                <box size="0.335 0.017 0.182" />
            </geometry>
        </collision>
        <!-- This is required for Gazebo. -->
        <inertial>
            <mass value="1.0" />
            <origin rpy="0 0 0" xyz="0.1675 0.017 0.091" />
            <inertia ixx="0.0" ixy="0.0" ixz="0.0" iyy="0.0" iyz="0.0" izz="0.0" />
        </inertial>
    </link>
    <gazebo reference="box_2_frontside">
        <material>Gazebo/Orange</material>
    </gazebo>
    <joint name="box_2_frontside" type="fixed">
        <parent link="box_2" />
        <child link="box_2_frontside" />
        <axis xyz="0 0 1" />
        <origin rpy="0 0 0" xyz="0 0 0.013" />
    </joint>
    <link name="box_2_backside">
        <!-- w is in x, l is in y, h is in z -->
        <visual>
            <origin rpy="0 0 0" xyz="0.1675 0.0085 0.091" />
            <geometry>
                <box size="0.335 0.017 0.182" />
            </geometry>
            <material name="orange">
                <color rgba="1 0.5088 0.0468 1" />
            </material>
        </visual>
        <collision>
            <origin rpy="0 0 0" xyz="0.1675 0.0085 0.091" />
            <geometry>
                <box size="0.335 0.017 0.182" />
            </geometry>
        </collision>
        <!-- This is required for Gazebo. -->
        <inertial>
            <mass value="1.0" />
            <origin rpy="0 0 0" xyz="0.1675 0.017 0.091" />
            <inertia ixx="0.0" ixy="0.0" ixz="0.0" iyy="0.0" iyz="0.0" izz="0.0" />
        </inertial>
    </link>
    <gazebo reference="box_2_backside">
        <material>Gazebo/Orange</material>
    </gazebo>
    <joint name="box_2_backside" type="fixed">
        <parent link="box_2" />
        <child link="box_2_backside" />
        <axis xyz="0 0 1" />
        <origin rpy="0 0 0" xyz="0 0.318 0.013" />
    </joint>
    <link name="box_2_leftside">
        <!-- w is in x, l is in y, h is in z -->
        <visual>
            <origin rpy="0 0 0" xyz="0.0085 0.15050000000000002 0.091" />
            <geometry>
                <box size="0.017 0.30100000000000005 0.182" />
            </geometry>
            <material name="orange">
                <color rgba="1 0.5088 0.0468 1" />
            </material>
        </visual>
        <collision>
            <origin rpy="0 0 0" xyz="0.0085 0.15050000000000002 0.091" />
            <geometry>
                <box size="0.017 0.30100000000000005 0.182" />
            </geometry>
        </collision>
        <!-- This is required for Gazebo. -->
        <inertial>
            <mass value="1.0" />
            <origin rpy="0 0 0" xyz="0.0085 0.30100000000000005 0.091" />
            <inertia ixx="0.0" ixy="0.0" ixz="0.0" iyy="0.0" iyz="0.0" izz="0.0" />
        </inertial>
    </link>
    <gazebo reference="box_2_leftside">
        <material>Gazebo/Orange</material>
    </gazebo>
    <joint name="box_2_leftside" type="fixed">
        <parent link="box_2" />
        <child link="box_2_leftside" />
        <axis xyz="0 0 1" />
        <origin rpy="0 0 0" xyz="0 0.017  0.013" />
    </joint>
    <link name="box_2_rightside">
        <!-- w is in x, l is in y, h is in z -->
        <visual>
            <origin rpy="0 0 0" xyz="0.0085 0.15050000000000002 0.091" />
            <geometry>
                <box size="0.017 0.30100000000000005 0.182" />
            </geometry>
            <material name="orange">
                <color rgba="1 0.5088 0.0468 1" />
            </material>
        </visual>
        <collision>
            <origin rpy="0 0 0" xyz="0.0085 0.15050000000000002 0.091" />
            <geometry>
                <box size="0.017 0.30100000000000005 0.182" />
            </geometry>
        </collision>
        <!-- This is required for Gazebo. -->
        <inertial>
            <mass value="1.0" />
            <origin rpy="0 0 0" xyz="0.0085 0.30100000000000005 0.091" />
            <inertia ixx="0.0" ixy="0.0" ixz="0.0" iyy="0.0" iyz="0.0" izz="0.0" />
        </inertial>
    </link>
    <gazebo reference="box_2_rightside">
        <material>Gazebo/Orange</material>
    </gazebo>
    <joint name="box_2_rightside" type="fixed">
        <parent link="box_2" />
        <child link="box_2_rightside" />
        <axis xyz="0 0 1" />
        <origin rpy="0 0 0" xyz="0.318      0.017      0.013" />
    </joint>
    <link name="box_2_bottom" />
    <joint name="box_2_bottom_joint" type="fixed">
        <parent link="box_2" />
        <child link="box_2_bottom" />
        <origin rpy="0 0 0" xyz="0.017 0.017 0.013" />
    </joint>
    <link name="box_2_center_bottom" />
    <joint name="box_2_center_bottom_joint" type="fixed">
        <parent link="box_2" />
        <child link="box_2_center_bottom" />
        <origin rpy="0 0 0" xyz="0.1675 0.1675 0.013" />
    </joint>
    <link name="box_2_lower_left_top" />
    <joint name="box_2_lower_left_top_joint" type="fixed">
        <parent link="box_2" />
        <child link="box_2_lower_left_top" />
        <origin rpy="0 0 0" xyz="0 0 0.195" />
    </joint>
    <link name="box_2_lower_right_top" />
    <joint name="box_2_lower_right_top_joint" type="fixed">
        <parent link="box_2" />
        <child link="box_2_lower_right_top" />
        <origin rpy="0 0 0" xyz="0.335 0 0.195" />
    </joint>
    <link name="box_2_upper_left_top" />
    <joint name="box_2_upper_left_top_joint" type="fixed">
        <parent link="box_2" />
        <child link="box_2_upper_left_top" />
        <origin rpy="0 0 0" xyz="0 0.335 0.195" />
    </joint>
    <link name="box_2_upper_right_top" />
    <joint name="box_2_upper_right_top_joint" type="fixed">
        <parent link="box_2" />
        <child link="box_2_upper_right_top" />
        <origin rpy="0 0 0" xyz="0.335 0.335 0.195" />
    </joint>
    <link name="box_2_center_top" />
    <joint name="box_2_center_top_joint" type="fixed">
        <parent link="box_2" />
        <child link="box_2_center_top" />
        <origin rpy="0 0 0" xyz="0.1675 0.1675 0.225" />
    </joint>
    <!-- This creates a box with the origin in the bottom corner, fixed to the world link. -->
    <link name="arm_table_leg0">
        <visual>
            <origin rpy="0 0 0" xyz="0.025 0.025 0.33999999999999997" />
            <geometry>
                <box size="0.05 0.05 0.6799999999999999" />
            </geometry>
            <material name="Grey">
                <color rgba="0.7 0.7 0.7 1" />
            </material>
        </visual>
        <collision>
            <origin rpy="0 0 0" xyz="0.025 0.025 0.33999999999999997" />
            <geometry>
                <box size="0.05 0.05 0.6799999999999999" />
            </geometry>
        </collision>
        <!-- This is required for Gazebo. -->
        <inertial>
            <mass value="1.0" />
            <!-- <origin xyz="${size_x/2} ${size_y} ${size_z/2}" rpy="0 0 0"/> -->
            <inertia ixx="0.0" ixy="0.0" ixz="0.0" iyy="0.0" iyz="0.0" izz="0.0" />
            <origin xyz="0 0 0" rpy="0 0 0" />
        </inertial>
    </link>
    <gazebo reference="arm_table_leg0">
        <material>Gazebo/Grey</material>
    </gazebo>
    <joint name="arm_table_leg0" type="fixed">
        <parent link="ground" />
        <child link="arm_table_leg0" />
        <origin rpy="0 0 0" xyz="4.0 -2.0 0" />
    </joint>
    <!-- This creates a box with the origin in the bottom corner, fixed to the world link. -->
    <link name="arm_table_leg1">
        <visual>
            <origin rpy="0 0 0" xyz="0.025 0.025 0.33999999999999997" />
            <geometry>
                <box size="0.05 0.05 0.6799999999999999" />
            </geometry>
            <material name="Grey">
                <color rgba="0.7 0.7 0.7 1" />
            </material>
        </visual>
        <collision>
            <origin rpy="0 0 0" xyz="0.025 0.025 0.33999999999999997" />
            <geometry>
                <box size="0.05 0.05 0.6799999999999999" />
            </geometry>
        </collision>
        <!-- This is required for Gazebo. -->
        <inertial>
            <mass value="1.0" />
            <!-- <origin xyz="${size_x/2} ${size_y} ${size_z/2}" rpy="0 0 0"/> -->
            <inertia ixx="0.0" ixy="0.0" ixz="0.0" iyy="0.0" iyz="0.0" izz="0.0" />
            <origin xyz="0 0 0" rpy="0 0 0" />
        </inertial>
    </link>
    <gazebo reference="arm_table_leg1">
        <material>Gazebo/Grey</material>
    </gazebo>
    <joint name="arm_table_leg1" type="fixed">
        <parent link="arm_table_leg0" />
        <child link="arm_table_leg1" />
        <origin rpy="0 0 0" xyz="0.25 0 0" />
    </joint>
    <!-- This creates a box with the origin in the bottom corner, fixed to the world link. -->
    <link name="arm_table_leg2">
        <visual>
            <origin rpy="0 0 0" xyz="0.025 0.025 0.33999999999999997" />
            <geometry>
                <box size="0.05 0.05 0.6799999999999999" />
            </geometry>
            <material name="Grey">
                <color rgba="0.7 0.7 0.7 1" />
            </material>
        </visual>
        <collision>
            <origin rpy="0 0 0" xyz="0.025 0.025 0.33999999999999997" />
            <geometry>
                <box size="0.05 0.05 0.6799999999999999" />
            </geometry>
        </collision>
        <!-- This is required for Gazebo. -->
        <inertial>
            <mass value="1.0" />
            <!-- <origin xyz="${size_x/2} ${size_y} ${size_z/2}" rpy="0 0 0"/> -->
            <inertia ixx="0.0" ixy="0.0" ixz="0.0" iyy="0.0" iyz="0.0" izz="0.0" />
            <origin xyz="0 0 0" rpy="0 0 0" />
        </inertial>
    </link>
    <gazebo reference="arm_table_leg2">
        <material>Gazebo/Grey</material>
    </gazebo>
    <joint name="arm_table_leg2" type="fixed">
        <parent link="arm_table_leg0" />
        <child link="arm_table_leg2" />
        <origin rpy="0 0 0" xyz="0 0.25 0" />
    </joint>
    <!-- This creates a box with the origin in the bottom corner, fixed to the world link. -->
    <link name="arm_table_leg3">
        <visual>
            <origin rpy="0 0 0" xyz="0.025 0.025 0.33999999999999997" />
            <geometry>
                <box size="0.05 0.05 0.6799999999999999" />
            </geometry>
            <material name="Grey">
                <color rgba="0.7 0.7 0.7 1" />
            </material>
        </visual>
        <collision>
            <origin rpy="0 0 0" xyz="0.025 0.025 0.33999999999999997" />
            <geometry>
                <box size="0.05 0.05 0.6799999999999999" />
            </geometry>
        </collision>
        <!-- This is required for Gazebo. -->
        <inertial>
            <mass value="1.0" />
            <!-- <origin xyz="${size_x/2} ${size_y} ${size_z/2}" rpy="0 0 0"/> -->
            <inertia ixx="0.0" ixy="0.0" ixz="0.0" iyy="0.0" iyz="0.0" izz="0.0" />
            <origin xyz="0 0 0" rpy="0 0 0" />
        </inertial>
    </link>
    <gazebo reference="arm_table_leg3">
        <material>Gazebo/Grey</material>
    </gazebo>
    <joint name="arm_table_leg3" type="fixed">
        <parent link="arm_table_leg0" />
        <child link="arm_table_leg3" />
        <origin rpy="0 0 0" xyz="0.25      0.25      0" />
    </joint>
    <!-- This creates a box with the origin in the bottom corner, fixed to the world link. -->
    <link name="arm_table_top">
        <visual>
            <origin rpy="0 0 0" xyz="0.15 0.15 0.01" />
            <geometry>
                <box size="0.3 0.3 0.02" />
            </geometry>
            <material name="Grey">
                <color rgba="0.7 0.7 0.7 1" />
            </material>
        </visual>
        <collision>
            <origin rpy="0 0 0" xyz="0.15 0.15 0.01" />
            <geometry>
                <box size="0.3 0.3 0.02" />
            </geometry>
        </collision>
        <!-- This is required for Gazebo. -->
        <inertial>
            <mass value="1.0" />
            <!-- <origin xyz="${size_x/2} ${size_y} ${size_z/2}" rpy="0 0 0"/> -->
            <inertia ixx="0.0" ixy="0.0" ixz="0.0" iyy="0.0" iyz="0.0" izz="0.0" />
            <origin xyz="0 0 0" rpy="0 0 0" />
        </inertial>
    </link>
    <gazebo reference="arm_table_top">
        <material>Gazebo/Grey</material>
    </gazebo>
    <joint name="arm_table_top" type="fixed">
        <parent link="arm_table_leg0" />
        <child link="arm_table_top" />
        <origin rpy="0 0 0" xyz="0 0 0.6799999999999999" />
    </joint>
    <joint name="arm_table_top_origin" type="fixed">
        <parent link="arm_table_top" />
        <child link="arm_table_top_origin" />
        <origin rpy="0 0 0" xyz="0 0 0.02" />
    </joint>
    <link name="arm_table_top_origin" />
    <joint name="arm_table_top_origin_center" type="fixed">
        <parent link="arm_table_top_origin" />
        <child link="arm_table_top_origin_center" />
        <origin rpy="0 0 0" xyz="0.15 0.15 0" />
    </joint>
    <link name="arm_table_top_origin_center" />
    <!--
    Main xacro macro definition of the "Gazebo robot" model.

    This wraps the model of the real robot and adds all elements and parameters
    required by Gazebo.

    It also adds the gazebo_ros_control plugin.

    NOTE: this is NOT a URDF. It cannot directly be loaded by consumers
    expecting a flattened '.urdf' file. See the top-level '.xacro' for that
    (but note: that .xacro must still be processed by the xacro command).

    For use in '.launch' files: use one of the 'load_urX.launch' convenience
    launch files.

    NOTE: this Gazebo model makes use of the same set of parameter files as the
    main xacro macro (in ur_description). It is therefor possible to use the
    kinematic calibration exported from a REAL UR robot. Please refer to the
    ur_macro.xacro in ur_description for more information about this.

    Main author of the migration to yaml configs: Ludovic Delval.

    Contributors to previous versions (in no particular order):

     - Felix Messmer
     - Kelsey Hawkins
     - Shaun Edwards
     - Alexander Bubeck
     - Nadia Hammoudeh Garcia
     - G. vd. Hoorn
     - Dave Niewinski
     - Andy Zelenak
     - Miguel Prada
     - Mathias Luedtke
     - Hans-Joachim Krauch
     - Felix Exner
  -->
    <!--
    Base UR robot series xacro macro.

    NOTE: this is NOT a URDF. It cannot directly be loaded by consumers
    expecting a flattened '.urdf' file. See the top-level '.xacro' for that
    (but note: that .xacro must still be processed by the xacro command).

    For use in '.launch' files: use one of the 'load_urX.launch' convenience
    launch files.

    This file models the base kinematic chain of a UR robot, which then gets
    parameterised by various configuration files to convert it into a UR3(e),
    UR5(e), UR10(e), UR16e, UR20 or UR30.

    NOTE: the default kinematic parameters (ie: link lengths, frame locations,
    offets, etc) do not correspond to any particular robot. They are defaults
    only. There WILL be non-zero offsets between the Forward Kinematics results
    in TF (ie: robot_state_publisher) and the values reported by the Teach
    Pendant.

    For accurate (and robot-specific) transforms, the 'kinematics_parameters_file'
    parameter MUST point to a .yaml file containing the appropriate values for
    the targetted robot.

    If using the UniversalRobots/Universal_Robots_ROS_Driver, follow the steps
    described in the readme of that repository to extract the kinematic
    calibration from the controller and generate the required .yaml file.

    Main author of the migration to yaml configs: Ludovic Delval.

    Contributors to previous versions (in no particular order):

     - Felix Messmer
     - Kelsey Hawkins
     - Wim Meeussen
     - Shaun Edwards
     - Nadia Hammoudeh Garcia
     - Dave Hershberger
     - G. vd. Hoorn
     - Philip Long
     - Dave Coleman
     - Miguel Prada
     - Mathias Luedtke
     - Marcel Schnirring
     - Felix von Drigalski
     - Felix Exner
     - Jimmy Da Silva
     - Ajit Krisshna N L
     - Muhammad Asif Rana
  -->
    <!--
    NOTE: the macro defined in this file is NOT part of the public API of this
          package. Users CANNOT rely on this file being available, or stored in
          this location. Nor can they rely on the existence of the macro.
  -->
    <transmission name="arm_shoulder_pan_trans">
        <type>transmission_interface/SimpleTransmission</type>
        <joint name="arm_shoulder_pan_joint">
            <hardwareInterface>hardware_interface/PositionJointInterface</hardwareInterface>
        </joint>
        <actuator name="arm_shoulder_pan_motor">
            <mechanicalReduction>1</mechanicalReduction>
            <hardwareInterface>hardware_interface/EffortJointInterface</hardwareInterface>
        </actuator>
    </transmission>
    <transmission name="arm_shoulder_lift_trans">
        <type>transmission_interface/SimpleTransmission</type>
        <joint name="arm_shoulder_lift_joint">
            <hardwareInterface>hardware_interface/PositionJointInterface</hardwareInterface>
        </joint>
        <actuator name="arm_shoulder_lift_motor">
            <mechanicalReduction>1</mechanicalReduction>
            <hardwareInterface>hardware_interface/EffortJointInterface</hardwareInterface>
        </actuator>
    </transmission>
    <transmission name="arm_elbow_trans">
        <type>transmission_interface/SimpleTransmission</type>
        <joint name="arm_elbow_joint">
            <hardwareInterface>hardware_interface/PositionJointInterface</hardwareInterface>
        </joint>
        <actuator name="arm_elbow_motor">
            <mechanicalReduction>1</mechanicalReduction>
            <hardwareInterface>hardware_interface/EffortJointInterface</hardwareInterface>
        </actuator>
    </transmission>
    <transmission name="arm_wrist_1_trans">
        <type>transmission_interface/SimpleTransmission</type>
        <joint name="arm_wrist_1_joint">
            <hardwareInterface>hardware_interface/PositionJointInterface</hardwareInterface>
        </joint>
        <actuator name="arm_wrist_1_motor">
            <mechanicalReduction>1</mechanicalReduction>
            <hardwareInterface>hardware_interface/EffortJointInterface</hardwareInterface>
        </actuator>
    </transmission>
    <transmission name="arm_wrist_2_trans">
        <type>transmission_interface/SimpleTransmission</type>
        <joint name="arm_wrist_2_joint">
            <hardwareInterface>hardware_interface/PositionJointInterface</hardwareInterface>
        </joint>
        <actuator name="arm_wrist_2_motor">
            <mechanicalReduction>1</mechanicalReduction>
            <hardwareInterface>hardware_interface/EffortJointInterface</hardwareInterface>
        </actuator>
    </transmission>
    <transmission name="arm_wrist_3_trans">
        <type>transmission_interface/SimpleTransmission</type>
        <joint name="arm_wrist_3_joint">
            <hardwareInterface>hardware_interface/PositionJointInterface</hardwareInterface>
        </joint>
        <actuator name="arm_wrist_3_motor">
            <mechanicalReduction>1</mechanicalReduction>
            <hardwareInterface>hardware_interface/EffortJointInterface</hardwareInterface>
        </actuator>
    </transmission>
    <!-- links: main serial chain -->
    <link name="arm_base_link" />
    <link name="arm_base_link_inertia">
        <visual>
            <origin rpy="0 0 3.141592653589793" xyz="0 0 0" />
            <geometry>
                <mesh filename="package://ur_description/meshes/ur5e/visual/base.dae" />
            </geometry>
            <material name="LightGrey">
                <color rgba="0.7 0.7 0.7 1.0" />
            </material>
        </visual>
        <collision>
            <origin rpy="0 0 3.141592653589793" xyz="0 0 0" />
            <geometry>
                <mesh filename="package://ur_description/meshes/ur5e/collision/base.stl" />
            </geometry>
        </collision>
        <inertial>
            <mass value="4.0" />
            <origin rpy="0 0 0" xyz="0 0 0" />
            <inertia ixx="0.00443333156" ixy="0.0" ixz="0.0" iyy="0.00443333156" iyz="0.0" izz="0.0072" />
        </inertial>
    </link>
    <link name="arm_shoulder_link">
        <visual>
            <origin rpy="0 0 3.141592653589793" xyz="0 0 0" />
            <geometry>
                <mesh filename="package://ur_description/meshes/ur5e/visual/shoulder.dae" />
            </geometry>
            <material name="LightGrey">
                <color rgba="0.7 0.7 0.7 1.0" />
            </material>
        </visual>
        <collision>
            <origin rpy="0 0 3.141592653589793" xyz="0 0 0" />
            <geometry>
                <mesh filename="package://ur_description/meshes/ur5e/collision/shoulder.stl" />
            </geometry>
        </collision>
        <inertial>
            <mass value="3.7" />
            <origin rpy="0 0 0" xyz="0 0 0" />
            <inertia ixx="0.010267495893" ixy="0.0" ixz="0.0" iyy="0.010267495893" iyz="0.0" izz="0.00666" />
        </inertial>
    </link>
    <link name="arm_upper_arm_link">
        <visual>
            <origin rpy="1.5707963267948966 0 -1.5707963267948966" xyz="0 0 0.138" />
            <geometry>
                <mesh filename="package://ur_description/meshes/ur5e/visual/upperarm.dae" />
            </geometry>
            <material name="LightGrey">
                <color rgba="0.7 0.7 0.7 1.0" />
            </material>
        </visual>
        <collision>
            <origin rpy="1.5707963267948966 0 -1.5707963267948966" xyz="0 0 0.138" />
            <geometry>
                <mesh filename="package://ur_description/meshes/ur5e/collision/upperarm.stl" />
            </geometry>
        </collision>
        <inertial>
            <mass value="8.393" />
            <origin rpy="0 1.5707963267948966 0" xyz="-0.2125 0.0 0.138" />
            <inertia ixx="0.1338857818623325" ixy="0.0" ixz="0.0" iyy="0.1338857818623325" iyz="0.0" izz="0.0151074" />
        </inertial>
    </link>
    <link name="arm_forearm_link">
        <visual>
            <origin rpy="1.5707963267948966 0 -1.5707963267948966" xyz="0 0 0.007" />
            <geometry>
                <mesh filename="package://ur_description/meshes/ur5e/visual/forearm.dae" />
            </geometry>
            <material name="LightGrey">
                <color rgba="0.7 0.7 0.7 1.0" />
            </material>
        </visual>
        <collision>
            <origin rpy="1.5707963267948966 0 -1.5707963267948966" xyz="0 0 0.007" />
            <geometry>
                <mesh filename="package://ur_description/meshes/ur5e/collision/forearm.stl" />
            </geometry>
        </collision>
        <inertial>
            <mass value="2.275" />
            <origin rpy="0 1.5707963267948966 0" xyz="-0.1961 0.0 0.007" />
            <inertia ixx="0.031209355099586295" ixy="0.0" ixz="0.0" iyy="0.031209355099586295" iyz="0.0" izz="0.004095" />
        </inertial>
    </link>
    <link name="arm_wrist_1_link">
        <visual>
            <!-- TODO: Move this to a parameter -->
            <origin rpy="1.5707963267948966 0 0" xyz="0 0 -0.127" />
            <geometry>
                <mesh filename="package://ur_description/meshes/ur5e/visual/wrist1.dae" />
            </geometry>
            <material name="LightGrey">
                <color rgba="0.7 0.7 0.7 1.0" />
            </material>
        </visual>
        <collision>
            <origin rpy="1.5707963267948966 0 0" xyz="0 0 -0.127" />
            <geometry>
                <mesh filename="package://ur_description/meshes/ur5e/collision/wrist1.stl" />
            </geometry>
        </collision>
        <inertial>
            <mass value="1.219" />
            <origin rpy="0 0 0" xyz="0 0 0" />
            <inertia ixx="0.0025598989760400002" ixy="0.0" ixz="0.0" iyy="0.0025598989760400002" iyz="0.0" izz="0.0021942" />
        </inertial>
    </link>
    <link name="arm_wrist_2_link">
        <visual>
            <origin rpy="0 0 0" xyz="0 0 -0.0997" />
            <geometry>
                <mesh filename="package://ur_description/meshes/ur5e/visual/wrist2.dae" />
            </geometry>
            <material name="LightGrey">
                <color rgba="0.7 0.7 0.7 1.0" />
            </material>
        </visual>
        <collision>
            <origin rpy="0 0 0" xyz="0 0 -0.0997" />
            <geometry>
                <mesh filename="package://ur_description/meshes/ur5e/collision/wrist2.stl" />
            </geometry>
        </collision>
        <inertial>
            <mass value="1.219" />
            <origin rpy="0 0 0" xyz="0 0 0" />
            <inertia ixx="0.0025598989760400002" ixy="0.0" ixz="0.0" iyy="0.0025598989760400002" iyz="0.0" izz="0.0021942" />
        </inertial>
    </link>
    <link name="arm_wrist_3_link">
        <visual>
            <origin rpy="1.5707963267948966 0 0" xyz="0 0 -0.0989" />
            <geometry>
                <mesh filename="package://ur_description/meshes/ur5e/visual/wrist3.dae" />
            </geometry>
            <material name="LightGrey">
                <color rgba="0.7 0.7 0.7 1.0" />
            </material>
        </visual>
        <collision>
            <origin rpy="1.5707963267948966 0 0" xyz="0 0 -0.0989" />
            <geometry>
                <mesh filename="package://ur_description/meshes/ur5e/collision/wrist3.stl" />
            </geometry>
        </collision>
        <inertial>
            <mass value="0.1879" />
            <origin rpy="0 0 0" xyz="0.0 0.0 -0.0229" />
            <inertia ixx="9.890410052167731e-05" ixy="0.0" ixz="0.0" iyy="9.890410052167731e-05" iyz="0.0" izz="0.0001321171875" />
        </inertial>
    </link>
    <!-- joints: main serial chain -->
    <joint name="arm_base_link-base_link_inertia" type="fixed">
        <parent link="arm_base_link" />
        <child link="arm_base_link_inertia" />
        <!-- 'base_link' is REP-103 aligned (so X+ forward), while the internal
           frames of the robot/controller have X+ pointing backwards.
           Use the joint between 'base_link' and 'base_link_inertia' (a dummy
           link/frame) to introduce the necessary rotation over Z (of pi rad).
      -->
        <origin rpy="0 0 3.141592653589793" xyz="0 0 0" />
    </joint>
    <joint name="arm_shoulder_pan_joint" type="revolute">
        <parent link="arm_base_link_inertia" />
        <child link="arm_shoulder_link" />
        <origin rpy="0 0 0" xyz="0 0 0.1625" />
        <axis xyz="0 0 1" />
        <limit effort="150.0" lower="-6.283185307179586" upper="6.283185307179586" velocity="3.141592653589793" />
        <dynamics damping="0" friction="0" />
    </joint>
    <joint name="arm_shoulder_lift_joint" type="revolute">
        <parent link="arm_shoulder_link" />
        <child link="arm_upper_arm_link" />
        <origin rpy="1.570796327 0 0" xyz="0 0 0" />
        <axis xyz="0 0 1" />
        <limit effort="150.0" lower="-6.283185307179586" upper="6.283185307179586" velocity="3.141592653589793" />
        <dynamics damping="0" friction="0" />
    </joint>
    <joint name="arm_elbow_joint" type="revolute">
        <parent link="arm_upper_arm_link" />
        <child link="arm_forearm_link" />
        <origin rpy="0 0 0" xyz="-0.425 0 0" />
        <axis xyz="0 0 1" />
        <limit effort="150.0" lower="-3.141592653589793" upper="3.141592653589793" velocity="3.141592653589793" />
        <dynamics damping="0" friction="0" />
    </joint>
    <joint name="arm_wrist_1_joint" type="revolute">
        <parent link="arm_forearm_link" />
        <child link="arm_wrist_1_link" />
        <origin rpy="0 0 0" xyz="-0.3922 0 0.1333" />
        <axis xyz="0 0 1" />
        <limit effort="28.0" lower="-6.283185307179586" upper="6.283185307179586" velocity="3.141592653589793" />
        <dynamics damping="0" friction="0" />
    </joint>
    <joint name="arm_wrist_2_joint" type="revolute">
        <parent link="arm_wrist_1_link" />
        <child link="arm_wrist_2_link" />
        <origin rpy="1.570796327 0 0" xyz="0 -0.0997 -2.044881182297852e-11" />
        <axis xyz="0 0 1" />
        <limit effort="28.0" lower="-6.283185307179586" upper="6.283185307179586" velocity="3.141592653589793" />
        <dynamics damping="0" friction="0" />
    </joint>
    <joint name="arm_wrist_3_joint" type="revolute">
        <parent link="arm_wrist_2_link" />
        <child link="arm_wrist_3_link" />
        <origin rpy="1.570796326589793 3.141592653589793 3.141592653589793" xyz="0 0.0996 -2.042830148012698e-11" />
        <axis xyz="0 0 1" />
        <limit effort="28.0" lower="-6.283185307179586" upper="6.283185307179586" velocity="3.141592653589793" />
        <dynamics damping="0" friction="0" />
    </joint>
    <!-- ROS-Industrial 'base' frame: base_link to UR 'Base' Coordinates transform -->
    <link name="arm_base" />
    <joint name="arm_base_link-base_fixed_joint" type="fixed">
        <!-- Note the rotation over Z of pi radians: as base_link is REP-103
           aligned (ie: has X+ forward, Y+ left and Z+ up), this is needed
           to correctly align 'base' with the 'Base' coordinate system of
           the UR controller.
      -->
        <origin rpy="0 0 3.141592653589793" xyz="0 0 0" />
        <parent link="arm_base_link" />
        <child link="arm_base" />
    </joint>
    <!-- ROS-Industrial 'flange' frame: attachment point for EEF models -->
    <link name="arm_flange" />
    <joint name="arm_wrist_3-flange" type="fixed">
        <parent link="arm_wrist_3_link" />
        <child link="arm_flange" />
        <origin rpy="0 -1.5707963267948966 -1.5707963267948966" xyz="0 0 0" />
    </joint>
    <!-- ROS-Industrial 'tool0' frame: all-zeros tool frame -->
    <link name="arm_tool0" />
    <joint name="arm_flange-tool0" type="fixed">
        <!-- default toolframe: X+ left, Y+ up, Z+ front -->
        <origin rpy="1.5707963267948966 0 1.5707963267948966" xyz="0 0 0" />
        <parent link="arm_flange" />
        <child link="arm_tool0" />
    </joint>
    <!-- Configure self collision properties per link -->
    <gazebo reference="arm_shoulder_link">
        <selfCollide>true</selfCollide>
    </gazebo>
    <gazebo reference="arm_upper_arm_link">
        <selfCollide>true</selfCollide>
    </gazebo>
    <gazebo reference="arm_forearm_link">
        <selfCollide>true</selfCollide>
    </gazebo>
    <gazebo reference="arm_wrist_1_link">
        <selfCollide>true</selfCollide>
    </gazebo>
    <gazebo reference="arm_wrist_3_link">
        <selfCollide>true</selfCollide>
    </gazebo>
    <gazebo reference="arm_wrist_2_link">
        <selfCollide>true</selfCollide>
    </gazebo>
    <gazebo reference="arm_ee_link">
        <selfCollide>true</selfCollide>
    </gazebo>
    <!--
      Inject Gazebo ROS Control plugin, which allows us to use ros_control
      controllers to control the virtual robot hw.
    -->
    <gazebo>
        <plugin filename="libgazebo_ros_control.so" name="ros_control">
            <!--robotNamespace>/</robotNamespace-->
            <!--robotSimType>gazebo_ros_control/DefaultRobotHWSim</robotSimType-->
        </plugin>
    </gazebo>
    <joint name="arm_base_joint" type="fixed">
        <origin rpy="0 0 0" xyz="0.15 0.15 0" />
        <parent link="arm_table_top" />
        <child link="arm_base_link" />
    </joint>
    <link name="gripper_coupling_base_link">
        <inertial>
            <origin rpy="0 0 0" xyz="8.625E-08 -4.6583E-06 0.03145" />
            <mass value="0.22652" />
            <inertia ixx="0.00020005" ixy="-4.2442E-10" ixz="-2.9069E-10" iyy="0.00017832" iyz="-3.4402E-08" izz="0.00013478" />
        </inertial>
        <visual>
            <origin rpy="1.5707963267948966 0 1.5707963267948966" xyz="0.00555 0 0" />
            <geometry>
                <mesh filename="package://aist_robotiq/meshes/visual/robotiq_arg2f_coupling.stl" scale="0.001 0.001 0.001" />
            </geometry>
            <material name="">
                <color rgba="0.1 0.1 0.1 1" />
            </material>
        </visual>
        <collision>
            <origin rpy="0 1.5707963267948966 0" xyz="0.00555 0 0" />
            <geometry>
                <cylinder length="0.0111" radius="0.0375" />
            </geometry>
        </collision>
    </link>
    <gazebo reference="gripper_coupling_base_link">
        <material>Gazebo/Black</material>
    </gazebo>
    <joint name="gripper_coupling_base_joint" type="fixed">
        <parent link="arm_flange" />
        <child link="gripper_coupling_base_link" />
        <origin rpy="0 0 0" xyz="0 0 0" />
    </joint>
    <link name="gripper_coupling_flange_link" />
    <joint name="gripper_coupling_flange_joint" type="fixed">
        <parent link="gripper_coupling_base_link" />
        <child link="gripper_coupling_flange_link" />
        <origin rpy="0 0 0" xyz="0.0111 0 0" />
    </joint>
    <joint name="gripper_base_joint" type="fixed">
        <parent link="gripper_coupling_flange_link" />
        <child link="gripper_base_link" />
        <origin rpy="0 0 0" xyz="0 0 0" />
    </joint>
    <link name="gripper_base_link" />
    <joint name="gripper_robotiq_arg2f_base_joint" type="fixed">
        <parent link="gripper_base_link" />
        <child link="gripper_robotiq_arg2f_base_link" />
        <origin rpy="3.141592653589793 -1.5707963267948966 0" xyz="0 0 0" />
    </joint>
    <joint name="gripper_tip_link_joint" type="fixed">
        <parent link="gripper_base_link" />
        <child link="gripper_tip_link" />
        <origin rpy="0.0 -1.5707963267948966 0.0" xyz="0.1628 0.0 0.0" />
    </joint>
    <link name="gripper_tip_link" />
    <link name="gripper_robotiq_arg2f_base_link">
        <inertial>
            <origin rpy="0 0 0" xyz="8.625E-08 -4.6583E-06 0.03145" />
            <mass value="0.22652" />
            <inertia ixx="0.00020005" ixy="-4.2442E-10" ixz="-2.9069E-10" iyy="0.00017832" iyz="-3.4402E-08" izz="0.00013478" />
        </inertial>
        <visual>
            <origin rpy="0 0 0" xyz="0 0 0" />
            <geometry>
                <mesh filename="package://aist_robotiq/meshes/visual/robotiq_arg2f_base_link.stl" />
            </geometry>
            <material name="">
                <color rgba="0.1 0.1 0.1 1" />
            </material>
        </visual>
        <collision>
            <origin rpy="0 0 0" xyz="0 0 0" />
            <geometry>
                <mesh filename="package://aist_robotiq/meshes/collision/robotiq_arg2f_base_link.stl" />
            </geometry>
        </collision>
    </link>
    <gazebo reference="gripper_robotiq_arg2f_base_link">
        <material>Gazebo/Black</material>
    </gazebo>
    <link name="gripper_left_outer_knuckle">
        <inertial>
            <origin rpy="0 0 0" xyz="-0.000200000000003065        0.0199435877845359        0.0292245259211331" />
            <mass value="0.00853198276973456" />
            <inertia ixx="2.89328108496468E-06" ixy="-1.57935047237397E-19" ixz="-1.93980378593255E-19" iyy="1.86719750325683E-06" iyz="-1.21858577871576E-06" izz="1.21905238907251E-06" />
        </inertial>
        <visual>
            <origin rpy="0 0 0" xyz="0 0 0" />
            <geometry>
                <mesh filename="package://aist_robotiq/meshes/visual/robotiq_arg2f_85_outer_knuckle.dae" scale="0.001 0.001 0.001" />
            </geometry>
            <material name="">
                <color rgba="0.792156862745098          0.819607843137255          0.933333333333333 1" />
            </material>
        </visual>
        <collision>
            <origin rpy="0 0 0" xyz="0 0 0" />
            <geometry>
                <mesh filename="package://aist_robotiq/meshes/collision/robotiq_arg2f_85_outer_knuckle.dae" scale="0.001 0.001 0.001" />
            </geometry>
        </collision>
    </link>
    <link name="gripper_left_outer_finger">
        <inertial>
            <origin rpy="0 0 0" xyz="0.00030115855001899        0.0373907951953854        -0.0208027427000385" />
            <mass value="0.022614240507152" />
            <inertia ixx="1.52518312458174E-05" ixy="9.76583423954399E-10" ixz="-5.43838577022588E-10" iyy="6.17694243867776E-06" iyz="6.78636130740228E-06" izz="1.16494917907219E-05" />
        </inertial>
        <visual>
            <origin rpy="0 0 0" xyz="0 0 0" />
            <geometry>
                <mesh filename="package://aist_robotiq/meshes/visual/robotiq_arg2f_85_outer_finger.dae" scale="0.001 0.001 0.001" />
            </geometry>
            <material name="">
                <color rgba="0.1 0.1 0.1 1" />
            </material>
        </visual>
        <collision>
            <origin rpy="0 0 0" xyz="0 0 0" />
            <geometry>
                <mesh filename="package://aist_robotiq/meshes/collision/robotiq_arg2f_85_outer_finger.dae" scale="0.001 0.001 0.001" />
            </geometry>
        </collision>
    </link>
    <link name="gripper_left_inner_finger">
        <inertial>
            <origin rpy="0 0 0" xyz="0.000299999999999317        0.0160078233491243        -0.0136945669206257" />
            <mass value="0.0104003125914103" />
            <inertia ixx="2.71909453810972E-06" ixy="1.35402465472579E-21" ixz="-7.1817349065269E-22" iyy="7.69100314106116E-07" iyz="6.74715432769696E-07" izz="2.30315190420171E-06" />
        </inertial>
        <visual>
            <origin rpy="0 0 0" xyz="0 0 0" />
            <geometry>
                <mesh filename="package://aist_robotiq/meshes/visual/robotiq_arg2f_85_inner_finger.dae" scale="0.001 0.001 0.001" />
            </geometry>
            <material name="">
                <color rgba="0.1 0.1 0.1 1" />
            </material>
        </visual>
        <collision>
            <origin rpy="0 0 0" xyz="0 0 0" />
            <geometry>
                <mesh filename="package://aist_robotiq/meshes/collision/robotiq_arg2f_85_inner_finger.dae" scale="0.001 0.001 0.001" />
            </geometry>
        </collision>
    </link>
    <link name="gripper_left_inner_finger_pad">
        <visual>
            <origin rpy="0 0 0" xyz="0 0 0" />
            <geometry>
                <box size="0.022 0.00635 0.0375" />
            </geometry>
            <material name="">
                <color rgba="0.9 0.9 0.9 1" />
            </material>
        </visual>
        <collision>
            <origin rpy="0 0 0" xyz="0 0 0" />
            <geometry>
                <box size="0.022 0.00635 0.0375" />
            </geometry>
            <material name="">
                <color rgba="0.9 0.0 0.0 1" />
            </material>
        </collision>
        <inertial>
            <mass value="0.1" />
            <origin xyz="0 0 0" rpy="0 0 0" />
            <inertia ixx="0.03" iyy="0.03" izz="0.03" ixy="0.0" ixz="0.0" iyz="0.0" />
        </inertial>
    </link>
    <link name="gripper_left_inner_knuckle">
        <inertial>
            <origin rpy="0 0 0" xyz="0.000123011831763771        0.0507850843201817        0.00103968640075166" />
            <mass value="0.0271177346495152" />
            <inertia ixx="2.61910379223783E-05" ixy="-2.43616858946494E-07" ixz="-6.37789906117123E-09" iyy="2.8270243746167E-06" iyz="-5.37200748039765E-07" izz="2.83695868220296E-05" />
        </inertial>
        <visual>
            <origin rpy="0 0 0" xyz="0 0 0" />
            <geometry>
                <mesh filename="package://aist_robotiq/meshes/visual/robotiq_arg2f_85_inner_knuckle.dae" scale="0.001 0.001 0.001" />
            </geometry>
            <material name="">
                <color rgba="0.1 0.1 0.1 1" />
            </material>
        </visual>
        <collision>
            <origin rpy="0 0 0" xyz="0 0 0" />
            <geometry>
                <mesh filename="package://aist_robotiq/meshes/collision/robotiq_arg2f_85_inner_knuckle.dae" scale="0.001 0.001 0.001" />
            </geometry>
        </collision>
    </link>
    <link name="gripper_right_outer_knuckle">
        <inertial>
            <origin rpy="0 0 0" xyz="-0.000200000000003065        0.0199435877845359        0.0292245259211331" />
            <mass value="0.00853198276973456" />
            <inertia ixx="2.89328108496468E-06" ixy="-1.57935047237397E-19" ixz="-1.93980378593255E-19" iyy="1.86719750325683E-06" iyz="-1.21858577871576E-06" izz="1.21905238907251E-06" />
        </inertial>
        <visual>
            <origin rpy="0 0 0" xyz="0 0 0" />
            <geometry>
                <mesh filename="package://aist_robotiq/meshes/visual/robotiq_arg2f_85_outer_knuckle.dae" scale="0.001 0.001 0.001" />
            </geometry>
            <material name="">
                <color rgba="0.792156862745098          0.819607843137255          0.933333333333333 1" />
            </material>
        </visual>
        <collision>
            <origin rpy="0 0 0" xyz="0 0 0" />
            <geometry>
                <mesh filename="package://aist_robotiq/meshes/collision/robotiq_arg2f_85_outer_knuckle.dae" scale="0.001 0.001 0.001" />
            </geometry>
        </collision>
    </link>
    <link name="gripper_right_outer_finger">
        <inertial>
            <origin rpy="0 0 0" xyz="0.00030115855001899        0.0373907951953854        -0.0208027427000385" />
            <mass value="0.022614240507152" />
            <inertia ixx="1.52518312458174E-05" ixy="9.76583423954399E-10" ixz="-5.43838577022588E-10" iyy="6.17694243867776E-06" iyz="6.78636130740228E-06" izz="1.16494917907219E-05" />
        </inertial>
        <visual>
            <origin rpy="0 0 0" xyz="0 0 0" />
            <geometry>
                <mesh filename="package://aist_robotiq/meshes/visual/robotiq_arg2f_85_outer_finger.dae" scale="0.001 0.001 0.001" />
            </geometry>
            <material name="">
                <color rgba="0.1 0.1 0.1 1" />
            </material>
        </visual>
        <collision>
            <origin rpy="0 0 0" xyz="0 0 0" />
            <geometry>
                <mesh filename="package://aist_robotiq/meshes/collision/robotiq_arg2f_85_outer_finger.dae" scale="0.001 0.001 0.001" />
            </geometry>
        </collision>
    </link>
    <link name="gripper_right_inner_finger">
        <inertial>
            <origin rpy="0 0 0" xyz="0.000299999999999317        0.0160078233491243        -0.0136945669206257" />
            <mass value="0.0104003125914103" />
            <inertia ixx="2.71909453810972E-06" ixy="1.35402465472579E-21" ixz="-7.1817349065269E-22" iyy="7.69100314106116E-07" iyz="6.74715432769696E-07" izz="2.30315190420171E-06" />
        </inertial>
        <visual>
            <origin rpy="0 0 0" xyz="0 0 0" />
            <geometry>
                <mesh filename="package://aist_robotiq/meshes/visual/robotiq_arg2f_85_inner_finger.dae" scale="0.001 0.001 0.001" />
            </geometry>
            <material name="">
                <color rgba="0.1 0.1 0.1 1" />
            </material>
        </visual>
        <collision>
            <origin rpy="0 0 0" xyz="0 0 0" />
            <geometry>
                <mesh filename="package://aist_robotiq/meshes/collision/robotiq_arg2f_85_inner_finger.dae" scale="0.001 0.001 0.001" />
            </geometry>
        </collision>
    </link>
    <link name="gripper_right_inner_finger_pad">
        <visual>
            <origin rpy="0 0 0" xyz="0 0 0" />
            <geometry>
                <box size="0.022 0.00635 0.0375" />
            </geometry>
            <material name="">
                <color rgba="0.9 0.9 0.9 1" />
            </material>
        </visual>
        <collision>
            <origin rpy="0 0 0" xyz="0 0 0" />
            <geometry>
                <box size="0.022 0.00635 0.0375" />
            </geometry>
            <material name="">
                <color rgba="0.9 0.0 0.0 1" />
            </material>
        </collision>
        <inertial>
            <mass value="0.1" />
            <origin xyz="0 0 0" rpy="0 0 0" />
            <inertia ixx="0.03" iyy="0.03" izz="0.03" ixy="0.0" ixz="0.0" iyz="0.0" />
        </inertial>
    </link>
    <link name="gripper_right_inner_knuckle">
        <inertial>
            <origin rpy="0 0 0" xyz="0.000123011831763771        0.0507850843201817        0.00103968640075166" />
            <mass value="0.0271177346495152" />
            <inertia ixx="2.61910379223783E-05" ixy="-2.43616858946494E-07" ixz="-6.37789906117123E-09" iyy="2.8270243746167E-06" iyz="-5.37200748039765E-07" izz="2.83695868220296E-05" />
        </inertial>
        <visual>
            <origin rpy="0 0 0" xyz="0 0 0" />
            <geometry>
                <mesh filename="package://aist_robotiq/meshes/visual/robotiq_arg2f_85_inner_knuckle.dae" scale="0.001 0.001 0.001" />
            </geometry>
            <material name="">
                <color rgba="0.1 0.1 0.1 1" />
            </material>
        </visual>
        <collision>
            <origin rpy="0 0 0" xyz="0 0 0" />
            <geometry>
                <mesh filename="package://aist_robotiq/meshes/collision/robotiq_arg2f_85_inner_knuckle.dae" scale="0.001 0.001 0.001" />
            </geometry>
        </collision>
    </link>
    <joint name="gripper_finger_joint" type="revolute">
        <origin rpy="0 0 3.141592653589793" xyz="0 -0.0306011 0.054904" />
        <parent link="gripper_robotiq_arg2f_base_link" />
        <child link="gripper_left_outer_knuckle" />
        <axis xyz="1 0 0" />
        <limit effort="1000" lower="0" upper="0.81" velocity="2.0" />
    </joint>
    <joint name="gripper_left_outer_finger_joint" type="fixed">
        <origin rpy="0 0 0" xyz="0 0.0315 -0.0041" />
        <parent link="gripper_left_outer_knuckle" />
        <child link="gripper_left_outer_finger" />
        <axis xyz="1 0 0" />
    </joint>
    <joint name="gripper_left_inner_knuckle_joint" type="revolute">
        <!-- <origin xyz="0 ${reflect * -0.0127} 0.06142" rpy="${pi / 2 + .725} 0 ${(reflect - 1) * pi / 2}"/> -->
        <origin rpy="0 0 3.141592653589793" xyz="0 -0.0127 0.06142" />
        <parent link="gripper_robotiq_arg2f_base_link" />
        <child link="gripper_left_inner_knuckle" />
        <axis xyz="1 0 0" />
        <limit effort="1000" lower="-0.8757" upper="0.8757" velocity="2.0" />
        <mimic joint="gripper_finger_joint" multiplier="1" offset="0" />
    </joint>
    <joint name="gripper_left_inner_finger_joint" type="revolute">
        <origin rpy="0 0 0" xyz="0 0.0061 0.0471" />
        <parent link="gripper_left_outer_finger" />
        <child link="gripper_left_inner_finger" />
        <axis xyz="1 0 0" />
        <limit effort="1000" lower="-0.8757" upper="0.8757" velocity="2.0" />
        <mimic joint="gripper_finger_joint" multiplier="-1" offset="0" />
    </joint>
    <joint name="gripper_left_inner_finger_pad_joint" type="fixed">
        <origin rpy="0 0 0" xyz="0 -0.0220203446692936 0.03242" />
        <parent link="gripper_left_inner_finger" />
        <child link="gripper_left_inner_finger_pad" />
        <axis xyz="0 0 1" />
    </joint>
    <joint name="gripper_right_outer_knuckle_joint" type="revolute">
        <origin rpy="0 0 0" xyz="0 0.0306011 0.054904" />
        <parent link="gripper_robotiq_arg2f_base_link" />
        <child link="gripper_right_outer_knuckle" />
        <axis xyz="1 0 0" />
        <limit effort="1000" lower="-0.81" upper="0.81" velocity="2.0" />
        <mimic joint="gripper_finger_joint" multiplier="1" offset="0" />
    </joint>
    <joint name="gripper_right_outer_finger_joint" type="fixed">
        <origin rpy="0 0 0" xyz="0 0.0315 -0.0041" />
        <parent link="gripper_right_outer_knuckle" />
        <child link="gripper_right_outer_finger" />
        <axis xyz="1 0 0" />
    </joint>
    <joint name="gripper_right_inner_knuckle_joint" type="revolute">
        <!-- <origin xyz="0 ${reflect * -0.0127} 0.06142" rpy="${pi / 2 + .725} 0 ${(reflect - 1) * pi / 2}"/> -->
        <origin rpy="0 0 0.0" xyz="0 0.0127 0.06142" />
        <parent link="gripper_robotiq_arg2f_base_link" />
        <child link="gripper_right_inner_knuckle" />
        <axis xyz="1 0 0" />
        <limit effort="1000" lower="-0.8757" upper="0.8757" velocity="2.0" />
        <mimic joint="gripper_finger_joint" multiplier="1" offset="0" />
    </joint>
    <joint name="gripper_right_inner_finger_joint" type="revolute">
        <origin rpy="0 0 0" xyz="0 0.0061 0.0471" />
        <parent link="gripper_right_outer_finger" />
        <child link="gripper_right_inner_finger" />
        <axis xyz="1 0 0" />
        <limit effort="1000" lower="-0.8757" upper="0.8757" velocity="2.0" />
        <mimic joint="gripper_finger_joint" multiplier="-1" offset="0" />
    </joint>
    <joint name="gripper_right_inner_finger_pad_joint" type="fixed">
        <origin rpy="0 0 0" xyz="0 -0.0220203446692936 0.03242" />
        <parent link="gripper_right_inner_finger" />
        <child link="gripper_right_inner_finger_pad" />
        <axis xyz="0 0 1" />
    </joint>
    <transmission name="gripper_finger_joint_trans">
        <type>transmission_interface/SimpleTransmission</type>
        <joint name="gripper_finger_joint">
            <hardwareInterface>hardware_interface/PositionJointInterface</hardwareInterface>
        </joint>
        <actuator name="gripper_finger_joint_motor">
            <mechanicalReduction>1</mechanicalReduction>
            <hardwareInterface>hardware_interface/EffortJointInterface</hardwareInterface>
        </actuator>
    </transmission>
    <!-- Mimic joints -->
    <gazebo>
        <plugin filename="libgazebo_mimic_joint_plugin.so" name="gripper_mimic_right_outer_knuckle_joint">
            <joint>gripper_finger_joint</joint>
            <mimicJoint>gripper_right_outer_knuckle_joint</mimicJoint>
        </plugin>
        <plugin filename="libgazebo_mimic_joint_plugin.so" name="gripper_mimic_left_inner_knuckle_joint">
            <joint>gripper_finger_joint</joint>
            <mimicJoint>gripper_left_inner_knuckle_joint</mimicJoint>
        </plugin>
        <plugin filename="libgazebo_mimic_joint_plugin.so" name="gripper_mimic_right_inner_knuckle_joint">
            <joint>gripper_finger_joint</joint>
            <mimicJoint>gripper_right_inner_knuckle_joint</mimicJoint>
        </plugin>
        <plugin filename="libgazebo_mimic_joint_plugin.so" name="gripper_mimic_left_inner_finger_joint">
            <joint>gripper_finger_joint</joint>
            <mimicJoint>gripper_left_inner_finger_joint</mimicJoint>
            <multiplier>-1.0</multiplier>
            <offset>0.0</offset>
        </plugin>
        <plugin filename="libgazebo_mimic_joint_plugin.so" name="gripper_mimic_right_inner_finger_joint">
            <joint>gripper_finger_joint</joint>
            <mimicJoint>gripper_right_inner_finger_joint</mimicJoint>
            <multiplier>-1.0</multiplier>
            <offset>0.0</offset>
        </plugin>
    </gazebo>
    <transmission name="trans_gripper_left_inner_knuckle_joint">
        <type>transmission_interface/SimpleTransmission</type>
        <joint name="gripper_left_inner_knuckle_joint">
            <hardwareInterface>hardware_interface/EffortJointInterface</hardwareInterface>
        </joint>
        <actuator name="gripper_left_inner_knuckle_joint_motor">
            <hardwareInterface>hardware_interface/EffortJointInterface</hardwareInterface>
            <mechanicalReduction>1</mechanicalReduction>
        </actuator>
    </transmission>
    <transmission name="trans_gripper_left_inner_finger_joint">
        <type>transmission_interface/SimpleTransmission</type>
        <joint name="gripper_left_inner_finger_joint">
            <hardwareInterface>hardware_interface/EffortJointInterface</hardwareInterface>
        </joint>
        <actuator name="gripper_left_inner_finger_joint_motor">
            <hardwareInterface>hardware_interface/EffortJointInterface</hardwareInterface>
            <mechanicalReduction>1</mechanicalReduction>
        </actuator>
    </transmission>
    <transmission name="trans_gripper_right_outer_knuckle_joint">
        <type>transmission_interface/SimpleTransmission</type>
        <joint name="gripper_right_outer_knuckle_joint">
            <hardwareInterface>hardware_interface/EffortJointInterface</hardwareInterface>
        </joint>
        <actuator name="gripper_right_outer_knuckle_joint_motor">
            <hardwareInterface>hardware_interface/EffortJointInterface</hardwareInterface>
            <mechanicalReduction>1</mechanicalReduction>
        </actuator>
    </transmission>
    <transmission name="trans_gripper_right_inner_knuckle_joint">
        <type>transmission_interface/SimpleTransmission</type>
        <joint name="gripper_right_inner_knuckle_joint">
            <hardwareInterface>hardware_interface/EffortJointInterface</hardwareInterface>
        </joint>
        <actuator name="gripper_right_inner_knuckle_joint_motor">
            <hardwareInterface>hardware_interface/EffortJointInterface</hardwareInterface>
            <mechanicalReduction>1</mechanicalReduction>
        </actuator>
    </transmission>
    <transmission name="trans_gripper_right_inner_finger_joint">
        <type>transmission_interface/SimpleTransmission</type>
        <joint name="gripper_right_inner_finger_joint">
            <hardwareInterface>hardware_interface/EffortJointInterface</hardwareInterface>
        </joint>
        <actuator name="gripper_right_inner_finger_joint_motor">
            <hardwareInterface>hardware_interface/EffortJointInterface</hardwareInterface>
            <mechanicalReduction>1</mechanicalReduction>
        </actuator>
    </transmission>
</robot>
